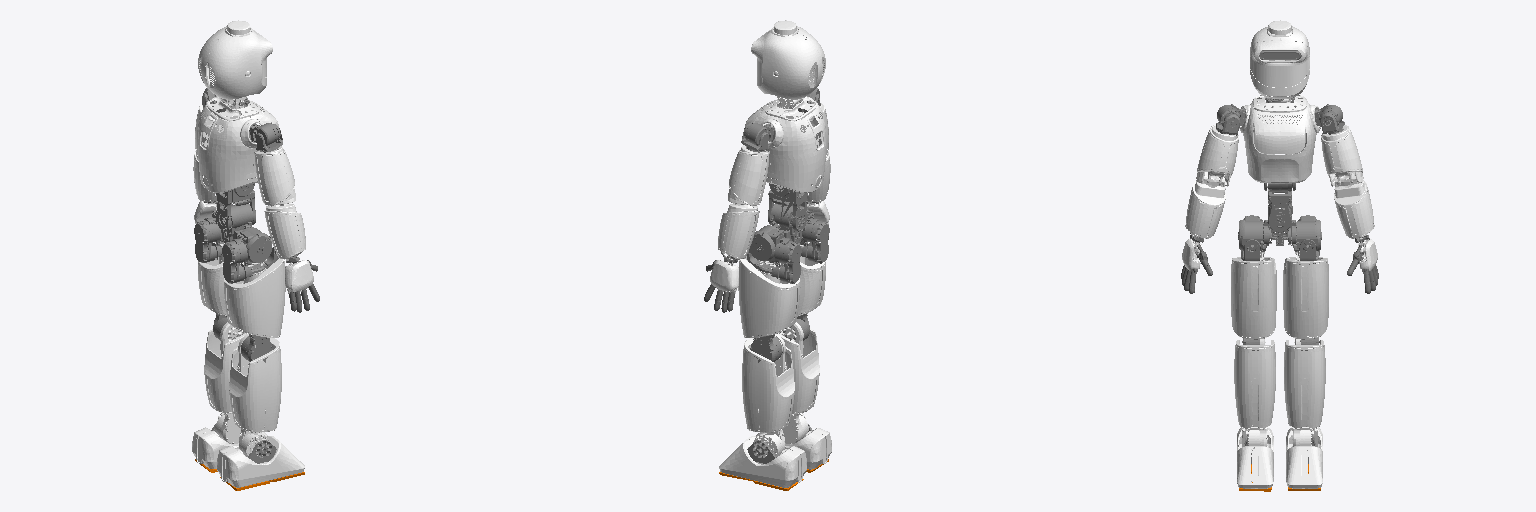
--- Facts derived from the render (not from the file) ---
Views: 3 orthographic renders of the robot side by side, from view 1: azimuth 30°, elevation 25°; view 2: azimuth 150°, elevation 25°; view 3: azimuth 270°, elevation 25°.
Robot: ergoCub — 204 links, 203 joints (57 revolute, 146 fixed); root link root_link; default pose: every joint at zero.
Visible links, largest first — view 1: chest, head, r_lower_leg, r_hip_3, l_lower_leg, r_ankle_2, r_upper_arm, r_forearm, l_hip_3, r_hip_2, l_ankle_2, l_hip_2 (+5 smaller); view 2: chest, head, l_lower_leg, l_hip_3, r_lower_leg, l_ankle_2, l_upper_arm, l_forearm, r_hip_3, l_hip_2, r_ankle_2, r_hip_2 (+5 smaller); view 3: chest, l_lower_leg, r_lower_leg, head, l_hip_3, r_hip_3, r_forearm, l_forearm, l_ankle_2, r_ankle_2, l_upper_arm, r_upper_arm (+4 smaller).
Link boxes in pixels (bbox=[...]): chest: bbox=[198, 96, 278, 192]; head: bbox=[198, 20, 272, 99]; r_lower_leg: bbox=[229, 334, 281, 455]; r_hip_3: bbox=[224, 247, 285, 337]; l_lower_leg: bbox=[204, 322, 245, 443]; r_ankle_2: bbox=[217, 436, 304, 487]; r_upper_arm: bbox=[254, 146, 295, 205]; r_forearm: bbox=[264, 203, 305, 258]; l_hip_3: bbox=[198, 242, 234, 315]; r_hip_2: bbox=[222, 236, 276, 283]; l_ankle_2: bbox=[192, 427, 267, 468]; l_hip_2: bbox=[194, 219, 223, 262]; chest: bbox=[745, 96, 825, 192]; head: bbox=[751, 20, 825, 99]; l_lower_leg: bbox=[742, 334, 794, 455]; l_hip_3: bbox=[738, 250, 800, 337]; r_lower_leg: bbox=[778, 322, 819, 444]; l_ankle_2: bbox=[719, 436, 806, 487]; l_upper_arm: bbox=[728, 145, 769, 205]; l_forearm: bbox=[718, 203, 759, 258]; r_hip_3: bbox=[789, 242, 825, 315]; l_hip_2: bbox=[747, 240, 801, 283]; r_ankle_2: bbox=[756, 428, 831, 469]; r_hip_2: bbox=[799, 218, 829, 263]; chest: bbox=[1239, 95, 1320, 183]; l_lower_leg: bbox=[1284, 339, 1325, 446]; r_lower_leg: bbox=[1234, 339, 1275, 446]; head: bbox=[1250, 20, 1309, 98]; l_hip_3: bbox=[1283, 251, 1328, 339]; r_hip_3: bbox=[1231, 251, 1276, 339]; r_forearm: bbox=[1185, 172, 1225, 238]; l_forearm: bbox=[1334, 172, 1374, 238]; l_ankle_2: bbox=[1286, 427, 1322, 488]; r_ankle_2: bbox=[1237, 427, 1273, 488]; l_upper_arm: bbox=[1321, 125, 1363, 186]; r_upper_arm: bbox=[1196, 125, 1238, 186].
Bounding box of the posed robot: 0.2875 × 0.594 × 1.47 m (x, y, z).
Meshes: 66 distinct files referenced, 66 mesh visuals loaded (66 OBJ).

The robot description file, URDF, robot "ergoCub":
<?xml version="1.0"?>
<robot name="ergoCub">
  <link name="root_link">
    <inertial>
      <mass value="2.823751482824641"/>
      <origin xyz="0.0024748962432214403 -1.050794470993344e-4 0.023450368787955644" rpy="0 -0 0"/>
      <inertia ixx="0.005630606285299466" ixy="1.4369039688385168e-6" ixz="2.329934099458601e-5" iyy="0.004380033669258687" iyz="1.4098441290533537e-5" izz="0.003616681010808376"/>
    </inertial>
    <visual>
      <origin xyz="0 0 0" rpy="0 -0 0"/>
      <geometry>
        <mesh filename="package://ergoCub/meshes/simmechanics/sim_ecub_1-1_root_link.obj" scale="0.001 0.001 0.001"/>
      </geometry>
      <material name="">
        <color rgba="0.6 0.6 0.6 1"/>
      </material>
    </visual>
    <collision>
      <origin xyz="0 0 0" rpy="0 -0 0"/>
      <geometry>
        <mesh filename="package://ergoCub/meshes/simmechanics/sim_ecub_1-1_root_link.obj" scale="0.001 0.001 0.001"/>
      </geometry>
      <material name="">
        <color rgba="0.6 0.6 0.6 1"/>
      </material>
    </collision>
  </link>
  <joint name="l_hip_pitch" type="revolute">
    <origin xyz="0.02109999999999964 0.050500000000000836 1.942890293094024e-16" rpy="3.958535957527503e-15 3.810968172190701e-15 1.167434911886406e-16"/>
    <axis xyz="-5.772831379991284e-17 -1 -1.3843833381666392e-17"/>
    <parent link="root_link"/>
    <child link="l_hip_1"/>
    <limit lower="-0.767944870877505" upper="1.9198621771937625" effort="1e+9" velocity="1e+9"/>
    <dynamics damping="2" friction="0"/>
  </joint>
  <link name="l_hip_1">
    <inertial>
      <mass value="2.231768868859629"/>
      <origin xyz="-0.0040154224851623455 0.028247280560774652 -6.811143992383195e-4" rpy="0 -0 0"/>
      <inertia ixx="0.002210921814931002" ixy="5.971255499379551e-5" ixz="-1.5432160879022988e-5" iyy="0.002695326128467937" iyz="-5.838535051658118e-6" izz="0.0024610381641843883"/>
    </inertial>
    <visual>
      <origin xyz="0 0 0" rpy="0 -0 0"/>
      <geometry>
        <mesh filename="package://ergoCub/meshes/simmechanics/sim_ecub_1-1_l_hip_1.obj" scale="0.001 0.001 0.001"/>
      </geometry>
      <material name="">
        <color rgba="0.6 0.6 0.6 1"/>
      </material>
    </visual>
    <collision>
      <origin xyz="0 0 0" rpy="0 -0 0"/>
      <geometry>
        <mesh filename="package://ergoCub/meshes/simmechanics/sim_ecub_1-1_l_hip_1.obj" scale="0.001 0.001 0.001"/>
      </geometry>
      <material name="">
        <color rgba="0.6 0.6 0.6 1"/>
      </material>
    </collision>
  </link>
  <joint name="r_hip_pitch" type="revolute">
    <origin xyz="0.021099999999999643 -0.05049999999999917 -2.220446049250313e-16" rpy="3.986223624290839e-15 9.012328668422501e-14 4.978996250550603e-17"/>
    <axis xyz="-1.0880513989386065e-16 -1 1.384383338166008e-17"/>
    <parent link="root_link"/>
    <child link="r_hip_1"/>
    <limit lower="-0.767944870877505" upper="1.9198621771937625" effort="1e+9" velocity="1e+9"/>
    <dynamics damping="2" friction="0"/>
  </joint>
  <link name="r_hip_1">
    <inertial>
      <mass value="2.2320852637398954"/>
      <origin xyz="-0.004032117730258793 -0.028249385885545365 -6.739019720393702e-4" rpy="0 -0 0"/>
      <inertia ixx="0.00221225947743564" ixy="-6.126720536020865e-5" ixz="-1.5035655169601288e-5" iyy="0.002695545891317729" iyz="6.443355522460266e-6" izz="0.0024608876750051726"/>
    </inertial>
    <visual>
      <origin xyz="0 0 0" rpy="0 -0 0"/>
      <geometry>
        <mesh filename="package://ergoCub/meshes/simmechanics/sim_ecub_1-1_r_hip_1.obj" scale="0.001 0.001 0.001"/>
      </geometry>
      <material name="">
        <color rgba="0.6 0.6 0.6 1"/>
      </material>
    </visual>
    <collision>
      <origin xyz="0 0 0" rpy="0 -0 0"/>
      <geometry>
        <mesh filename="package://ergoCub/meshes/simmechanics/sim_ecub_1-1_r_hip_1.obj" scale="0.001 0.001 0.001"/>
      </geometry>
      <material name="">
        <color rgba="0.6 0.6 0.6 1"/>
      </material>
    </collision>
  </link>
  <joint name="torso_roll" type="revolute">
    <origin xyz="-2.3755535638009333e-18 -9.860761315262648e-32 0.06050000000000008" rpy="6.938893903907228e-18 -2.243100740386731e-44 5.646742905902627e-30"/>
    <axis xyz="-1 -1.8747840782470697e-46 1.4239886692466155e-15"/>
    <parent link="root_link"/>
    <child link="torso_1"/>
    <limit lower="-0.4363323129985824" upper="0.4363323129985824" effort="1e+9" velocity="1e+9"/>
    <dynamics damping="2" friction="0"/>
  </joint>
  <link name="torso_1">
    <inertial>
      <mass value="2.0645667"/>
      <origin xyz="-0.00963997362197503 6.168494736287859e-4 0.08244231288506354" rpy="0 -0 0"/>
      <inertia ixx="0.007406085999999999" ixy="0" ixz="0" iyy="0.0059470732999999994" iyz="0" izz="0.0031780111"/>
    </inertial>
    <visual>
      <origin xyz="0 0 0" rpy="0 -0 0"/>
      <geometry>
        <mesh filename="package://ergoCub/meshes/simmechanics/sim_ecub_1-1_torso_1.obj" scale="0.001 0.001 0.001"/>
      </geometry>
      <material name="">
        <color rgba="0.6 0.6 0.6 1"/>
      </material>
    </visual>
    <collision>
      <origin xyz="0 0 0" rpy="0 -0 0"/>
      <geometry>
        <mesh filename="package://ergoCub/meshes/simmechanics/sim_ecub_1-1_torso_1.obj" scale="0.001 0.001 0.001"/>
      </geometry>
      <material name="">
        <color rgba="0.6 0.6 0.6 1"/>
      </material>
    </collision>
  </link>
  <joint name="torso_pitch" type="revolute">
    <origin xyz="-7.31996858122512e-17 -2.465190328815662e-32 0.11800000000000001" rpy="3.972379790909169e-15 -2.7755575615628914e-17 -5.766686906865033e-30"/>
    <axis xyz="1.9259299443837326e-34 1 0"/>
    <parent link="torso_1"/>
    <child link="torso_2"/>
    <limit lower="-0.3490658503988659" upper="1.1344640137963142" effort="1e+9" velocity="1e+9"/>
    <dynamics damping="2" friction="0"/>
  </joint>
  <link name="torso_2">
    <inertial>
      <mass value="0.7051627057068411"/>
      <origin xyz="0.0015724674776760373 0.0036223466761378907 0.026019504666210766" rpy="0 -0 0"/>
      <inertia ixx="0.0012590296877101025" ixy="4.1986239270733835e-6" ixz="-5.398163583772818e-6" iyy="6.675525890436374e-4" iyz="7.014302140884287e-5" izz="0.001145822810927014"/>
    </inertial>
    <visual>
      <origin xyz="0 0 0" rpy="0 -0 0"/>
      <geometry>
        <mesh filename="package://ergoCub/meshes/simmechanics/sim_ecub_1-1_torso_2.obj" scale="0.001 0.001 0.001"/>
      </geometry>
      <material name="">
        <color rgba="0.6 0.6 0.6 1"/>
      </material>
    </visual>
    <collision>
      <origin xyz="0 0 0" rpy="0 -0 0"/>
      <geometry>
        <mesh filename="package://ergoCub/meshes/simmechanics/sim_ecub_1-1_torso_2.obj" scale="0.001 0.001 0.001"/>
      </geometry>
      <material name="">
        <color rgba="0.6 0.6 0.6 1"/>
      </material>
    </collision>
  </link>
  <joint name="torso_yaw" type="revolute">
    <origin xyz="7.750929403809172e-17 2.585744285754345e-16 0.06447000000000001" rpy="-3.965440897005259e-15 9.857150196616922e-31 -5.2041704279298444e-17"/>
    <axis xyz="2.0848644290772277e-15 -2.1205546746284363e-15 -1"/>
    <parent link="torso_2"/>
    <child link="chest"/>
    <limit lower="-0.7853981633974483" upper="0.7853981633974483" effort="1e+9" velocity="1e+9"/>
    <dynamics damping="2" friction="0"/>
  </joint>
  <link name="chest">
    <inertial>
      <mass value="8.065471632648594"/>
      <origin xyz="-0.010721051678060345 -3.482064053382885e-4 0.07611063517438793" rpy="0 -0 0"/>
      <inertia ixx="0.048454754024617776" ixy="1.7611941682820642e-4" ixz="-3.124089280569708e-4" iyy="0.044938830524554475" iyz="-1.2962048932614557e-4" izz="0.030687687298016447"/>
    </inertial>
    <visual>
      <origin xyz="0 0 0" rpy="0 -0 0"/>
      <geometry>
        <mesh filename="package://ergoCub/meshes/simmechanics/sim_ecub_1-1_chest.obj" scale="0.001 0.001 0.001"/>
      </geometry>
      <material name="">
        <color rgba="1 1 1 1"/>
      </material>
    </visual>
    <collision>
      <origin xyz="0 0 0" rpy="0 -0 0"/>
      <geometry>
        <mesh filename="package://ergoCub/meshes/simmechanics/sim_ecub_1-1_chest.obj" scale="0.001 0.001 0.001"/>
      </geometry>
      <material name="">
        <color rgba="1 1 1 1"/>
      </material>
    </collision>
  </link>
  <joint name="neck_pitch" type="revolute">
    <origin xyz="0.004861512347971929 4.708746741468531e-16 0.22529999999999975" rpy="-2.6119678294737364e-15 -3.4056897699793993e-15 2.4309992584509393e-16"/>
    <axis xyz="-1.630254985826183e-15 -1 -1.850775361344979e-15"/>
    <parent link="chest"/>
    <child link="neck_2"/>
    <limit lower="-0.7853981633974483" upper="0.3839724354387525" effort="1e+9" velocity="1e+9"/>
    <dynamics damping="2" friction="0"/>
  </joint>
  <link name="neck_2">
    <inertial>
      <mass value="0.12100314943032965"/>
      <origin xyz="-0.006305773955890982 3.0141314376407138e-5 0.006373188453183354" rpy="0 -0 0"/>
      <inertia ixx="4.5383766592166864e-5" ixy="-9.375752008423039e-8" ixz="8.622664755132213e-6" iyy="3.848306673536227e-5" iyz="4.870043501244136e-8" izz="3.7535538604448367e-5"/>
    </inertial>
    <visual>
      <origin xyz="0 0 0" rpy="0 -0 0"/>
      <geometry>
        <mesh filename="package://ergoCub/meshes/simmechanics/sim_ecub_1-1_head_neck_2.obj" scale="0.001 0.001 0.001"/>
      </geometry>
      <material name="">
        <color rgba="0.6 0.6 0.6 1"/>
      </material>
    </visual>
    <collision>
      <origin xyz="0 0 0" rpy="0 -0 0"/>
      <geometry>
        <mesh filename="package://ergoCub/meshes/simmechanics/sim_ecub_1-1_head_neck_2.obj" scale="0.001 0.001 0.001"/>
      </geometry>
      <material name="">
        <color rgba="0.6 0.6 0.6 1"/>
      </material>
    </collision>
  </link>
  <joint name="l_shoulder_pitch" type="revolute">
    <origin xyz="-0.013518676842610168 0.06704761117227494 0.12351981080941762" rpy="0.25361232387325394 -0.052031605504494635 -0.27527873241387185"/>
    <axis xyz="1.43982048506075e-16 1.0000000000000002 3.608224830031759e-16"/>
    <parent link="chest"/>
    <child link="l_shoulder_1"/>
    <limit lower="-2.9670597283903604" upper="0.6108652381980153" effort="1e+9" velocity="1e+9"/>
    <dynamics damping="2" friction="0"/>
  </joint>
  <link name="l_shoulder_1">
    <inertial>
      <mass value="0.7913756606310043"/>
      <origin xyz="1.4824275422014796e-4 0.06782971819041986 5.036196460999898e-4" rpy="0 -0 0"/>
      <inertia ixx="0.01" ixy="0" ixz="0" iyy="0.01" iyz="0" izz="0.01"/>
    </inertial>
    <visual>
      <origin xyz="0 0 0" rpy="0 -0 0"/>
      <geometry>
        <mesh filename="package://ergoCub/meshes/simmechanics/sim_ecub_1-1_l_shoulder_1.obj" scale="0.001 0.001 0.001"/>
      </geometry>
      <material name="">
        <color rgba="0.6 0.6 0.6 1"/>
      </material>
    </visual>
    <collision>
      <origin xyz="0 0 0" rpy="0 -0 0"/>
      <geometry>
        <mesh filename="package://ergoCub/meshes/simmechanics/sim_ecub_1-1_l_shoulder_1.obj" scale="0.001 0.001 0.001"/>
      </geometry>
      <material name="">
        <color rgba="0.6 0.6 0.6 1"/>
      </material>
    </collision>
  </link>
  <joint name="r_shoulder_pitch" type="revolute">
    <origin xyz="-0.013518676842610305 -0.06704761117227447 0.1235198108094179" rpy="-0.25361232387326105 -0.052031605504494746 0.2752787324138701"/>
    <axis xyz="-3.3306690738754696e-16 1 3.4416913763379853e-15"/>
    <parent link="chest"/>
    <child link="r_shoulder_1"/>
    <limit lower="-2.9670597283903604" upper="0.6108652381980153" effort="1e+9" velocity="1e+9"/>
    <dynamics damping="2" friction="0"/>
  </joint>
  <link name="r_shoulder_1">
    <inertial>
      <mass value="0.7922822880502421"/>
      <origin xyz="1.7243569867328445e-4 -0.06784040318161474 4.7600094527533443e-4" rpy="0 -0 0"/>
      <inertia ixx="0.01" ixy="0" ixz="0" iyy="0.01" iyz="0" izz="0.01"/>
    </inertial>
    <visual>
      <origin xyz="0 0 0" rpy="0 -0 0"/>
      <geometry>
        <mesh filename="package://ergoCub/meshes/simmechanics/sim_ecub_1-1_r_shoulder_1.obj" scale="0.001 0.001 0.001"/>
      </geometry>
      <material name="">
        <color rgba="0.6 0.6 0.6 1"/>
      </material>
    </visual>
    <collision>
      <origin xyz="0 0 0" rpy="0 -0 0"/>
      <geometry>
        <mesh filename="package://ergoCub/meshes/simmechanics/sim_ecub_1-1_r_shoulder_1.obj" scale="0.001 0.001 0.001"/>
      </geometry>
      <material name="">
        <color rgba="0.6 0.6 0.6 1"/>
      </material>
    </collision>
  </link>
  <joint name="r_shoulder_roll" type="revolute">
    <origin xyz="0.007499999999999941 -0.09330000000000022 -2.498001805406602e-16" rpy="-9.353628982466936e-15 8.923417560424696e-15 -4.884981308350685e-15"/>
    <axis xyz="-1.0000000000000009 8.205242041369425e-16 1.734723475977312e-16"/>
    <parent link="r_shoulder_1"/>
    <child link="r_shoulder_2"/>
    <limit lower="-0.2617993877991494" upper="2.6179938779914944" effort="1e+9" velocity="1e+9"/>
    <dynamics damping="2" friction="0"/>
  </joint>
  <link name="r_shoulder_2">
    <inertial>
      <mass value="0.4392272062642899"/>
      <origin xyz="0.005113618901434032 -2.13348557806331e-4 -0.020425805469504787" rpy="0 -0 0"/>
      <inertia ixx="0.01" ixy="0" ixz="0" iyy="0.01" iyz="0" izz="0.01"/>
    </inertial>
    <visual>
      <origin xyz="0 0 0" rpy="0 -0 0"/>
      <geometry>
        <mesh filename="package://ergoCub/meshes/simmechanics/sim_ecub_1-1_r_shoulder_2.obj" scale="0.001 0.001 0.001"/>
      </geometry>
      <material name="">
        <color rgba="0.6 0.6 0.6 1"/>
      </material>
    </visual>
    <collision>
      <origin xyz="0 0 0" rpy="0 -0 0"/>
      <geometry>
        <mesh filename="package://ergoCub/meshes/simmechanics/sim_ecub_1-1_r_shoulder_2.obj" scale="0.001 0.001 0.001"/>
      </geometry>
      <material name="">
        <color rgba="0.6 0.6 0.6 1"/>
      </material>
    </collision>
  </link>
  <joint name="r_arm_ft_sensor" type="fixed">
    <origin xyz="-0.0068499999999999915 0 -0.054300000000000015" rpy="-1.1102230246251565e-16 -2.3592239273284576e-16 1.7208456881689918e-15"/>
    <parent link="r_shoulder_2"/>
    <child link="r_shoulder_3"/>
  </joint>
  <link name="r_shoulder_3">
    <inertial>
      <mass value="0.271466272759966"/>
      <origin xyz="-8.31167799586717e-5 -3.0654831449927755e-5 -0.007966545320293866" rpy="0 -0 0"/>
      <inertia ixx="0.01" ixy="0" ixz="0" iyy="0.01" iyz="0" izz="0.01"/>
    </inertial>
    <visual>
      <origin xyz="0 0 0" rpy="0 -0 0"/>
      <geometry>
        <mesh filename="package://ergoCub/meshes/simmechanics/sim_ecub_1-1_r_shoulder_3.obj" scale="0.001 0.001 0.001"/>
      </geometry>
      <material name="">
        <color rgba="0.6 0.6 0.6 1"/>
      </material>
    </visual>
    <collision>
      <origin xyz="0 0 0" rpy="0 -0 0"/>
      <geometry>
        <mesh filename="package://ergoCub/meshes/simmechanics/sim_ecub_1-1_r_shoulder_3.obj" scale="0.001 0.001 0.001"/>
      </geometry>
      <material name="">
        <color rgba="0.6 0.6 0.6 1"/>
      </material>
    </collision>
  </link>
  <joint name="r_shoulder_yaw" type="revolute">
    <origin xyz="-1.1449174941446927e-16 1.1102230246251565e-16 -0.022500000000000228" rpy="-2.7755575615628914e-17 4.0939474033052647e-16 7.382983113757288e-15"/>
    <axis xyz="-4.579669976578765e-16 5.551115123125817e-17 1"/>
    <parent link="r_shoulder_3"/>
    <child link="r_upper_arm"/>
    <limit lower="-0.9075712110370514" upper="1.4311699866353502" effort="1e+9" velocity="1e+9"/>
    <dynamics damping="2" friction="0"/>
  </joint>
  <link name="r_upper_arm">
    <inertial>
      <mass value="1.7722348545631907"/>
      <origin xyz="1.4699786491786937e-4 -0.0023354938418406186 -0.05011711267210951" rpy="0 -0 0"/>
      <inertia ixx="0.0034219198528275844" ixy="3.081029189714289e-5" ixz="2.5743017599563002e-5" iyy="0.003510878854314856" iyz="-1.0938393403810045e-4" izz="0.0015765483711818404"/>
    </inertial>
    <visual>
      <origin xyz="0 0 0" rpy="0 -0 0"/>
      <geometry>
        <mesh filename="package://ergoCub/meshes/simmechanics/sim_ecub_1-1_r_upperarm.obj" scale="0.001 0.001 0.001"/>
      </geometry>
      <material name="">
        <color rgba="1 1 1 1"/>
      </material>
    </visual>
    <collision>
      <origin xyz="0 0 0" rpy="0 -0 0"/>
      <geometry>
        <mesh filename="package://ergoCub/meshes/simmechanics/sim_ecub_1-1_r_upperarm.obj" scale="0.001 0.001 0.001"/>
      </geometry>
      <material name="">
        <color rgba="1 1 1 1"/>
      </material>
    </collision>
  </link>
  <joint name="r_elbow" type="revolute">
    <origin xyz="0.009999999999999966 0.001500000000000501 -0.1237000000000001" rpy="-1.94289029309402e-16 -5.488665077990618e-15 -8.271161533457391e-15"/>
    <axis xyz="2.4459601011270737e-16 -1.0000000000000027 1.2989609388114332e-14"/>
    <parent link="r_upper_arm"/>
    <child link="r_forearm"/>
    <limit lower="-0.08726646259971647" upper="2.0943951023931953" effort="1e+9" velocity="1e+9"/>
    <dynamics damping="2" friction="0"/>
  </joint>
  <link name="r_forearm">
    <inertial>
      <mass value="1.4760712424977045"/>
      <origin xyz="-0.01830687629472739 -0.002214887320910963 -0.08814943647449926" rpy="0 -0 0"/>
      <inertia ixx="0.009999999999999998" ixy="0" ixz="0" iyy="0.01" iyz="0" izz="0.01"/>
    </inertial>
    <visual>
      <origin xyz="0 0 0" rpy="0 -0 0"/>
      <geometry>
        <mesh filename="package://ergoCub/meshes/simmechanics/sim_ecub_1-0_r_forearm.obj" scale="0.001 0.001 0.001"/>
      </geometry>
      <material name="">
        <color rgba="1 1 1 1"/>
      </material>
    </visual>
    <collision>
      <origin xyz="0 0 0" rpy="0 -0 0"/>
      <geometry>
        <mesh filename="package://ergoCub/meshes/simmechanics/sim_ecub_1-0_r_forearm.obj" scale="0.001 0.001 0.001"/>
      </geometry>
      <material name="">
        <color rgba="1 1 1 1"/>
      </material>
    </collision>
  </link>
  <joint name="r_wrist_yaw" type="revolute">
    <origin xyz="-0.014999999999999698 -0.001999999999996477 -0.1943500000000013" rpy="-1.9706458687096485e-15 -1.1712852909795402e-14 -2.942091015256656e-15"/>
    <axis xyz="5.7037707890117685e-15 -1.2517764602648659e-14 1.0000000000000022"/>
    <parent link="r_forearm"/>
    <child link="r_wrist_1"/>
    <limit lower="-1.6057029118347832" upper="1.6057029118347832" effort="1e+9" velocity="1e+9"/>
    <dynamics damping="2" friction="0"/>
  </joint>
  <link name="r_wrist_1">
    <inertial>
      <mass value="0.05654246904305621"/>
      <origin xyz="4.0273630312637546e-4 -0.0010588455479770553 0.019140836855494725" rpy="0 -0 0"/>
      <inertia ixx="0.01" ixy="0" ixz="0" iyy="0.01" iyz="0" izz="0.01"/>
    </inertial>
    <visual>
      <origin xyz="0 0 0" rpy="0 -0 0"/>
      <geometry>
        <mesh filename="package://ergoCub/meshes/simmechanics/sim_ecub_1-0_r_wrist_1.obj" scale="0.001 0.001 0.001"/>
      </geometry>
      <material name="">
        <color rgba="0.6 0.6 0.6 1"/>
      </material>
    </visual>
    <collision>
      <origin xyz="0 0 0" rpy="0 -0 0"/>
      <geometry>
        <mesh filename="package://ergoCub/meshes/simmechanics/sim_ecub_1-0_r_wrist_1.obj" scale="0.001 0.001 0.001"/>
      </geometry>
      <material name="">
        <color rgba="0.6 0.6 0.6 1"/>
      </material>
    </collision>
  </link>
  <joint name="r_wrist_roll" type="revolute">
    <origin xyz="7.979727989493313e-17 1.1102230246251565e-16 1.6653345369377348e-16" rpy="2.4980018054066017e-16 -0 0"/>
    <axis xyz="1.0000000000000004 -1.8735013540549512e-16 7.632783294297946e-17"/>
    <parent link="r_wrist_1"/>
    <child link="r_wrist_2"/>
    <limit lower="-0.3490658503988659" upper="0.5235987755982988" effort="1e+9" velocity="1e+9"/>
    <dynamics damping="2" friction="0"/>
  </joint>
  <link name="r_wrist_2">
    <inertial>
      <mass value="0.00945549080108898"/>
      <origin xyz="-1.0459228840377365e-4 -0.002335664371021534 -0.00539408287879653" rpy="0 -0 0"/>
      <inertia ixx="0.01" ixy="0" ixz="0" iyy="0.01" iyz="0" izz="0.01"/>
    </inertial>
    <visual>
      <origin xyz="0 0 0" rpy="0 -0 0"/>
      <geometry>
        <mesh filename="package://ergoCub/meshes/simmechanics/sim_ecub_1-0_r_wrist_2.obj" scale="0.001 0.001 0.001"/>
      </geometry>
      <material name="">
        <color rgba="0.5 0.5 0.5 1"/>
      </material>
    </visual>
    <collision>
      <origin xyz="0 0 0" rpy="0 -0 0"/>
      <geometry>
        <mesh filename="package://ergoCub/meshes/simmechanics/sim_ecub_1-0_r_wrist_2.obj" scale="0.001 0.001 0.001"/>
      </geometry>
      <material name="">
        <color rgba="0.5 0.5 0.5 1"/>
      </material>
    </collision>
  </link>
  <joint name="r_wrist_pitch" type="revolute">
    <origin xyz="1.734723475976807e-17 1.3877787807814457e-16 5.551115123125783e-17" rpy="4.440892098500625e-16 1.5265566588595902e-16 -4.440892098500624e-16"/>
    <axis xyz="5.100087019371814e-16 -1 -5.273559366969494e-16"/>
    <parent link="r_wrist_2"/>
    <child link="r_hand_palm"/>
    <limit lower="-0.3490658503988659" upper="0.3490658503988659" effort="1e+9" velocity="1e+9"/>
    <dynamics damping="2" friction="0"/>
  </joint>
  <link name="r_hand_palm">
    <inertial>
      <mass value="0.18913536273910575"/>
      <origin xyz="-0.0038680152803707464 -0.002793078804786159 -0.059703296736688616" rpy="0 -0 0"/>
      <inertia ixx="0.01" ixy="0" ixz="0" iyy="0.01" iyz="0" izz="0.01"/>
    </inertial>
    <visual>
      <origin xyz="0 0 0" rpy="0 -0 0"/>
      <geometry>
        <mesh filename="package://ergoCub/meshes/simmechanics/sim_ecub_1-0_r_hand_palm.obj" scale="0.001 0.001 0.001"/>
      </geometry>
      <material name="">
        <color rgba="1 1 1 1"/>
      </material>
    </visual>
    <collision>
      <origin xyz="0 0 0" rpy="0 -0 0"/>
      <geometry>
        <mesh filename="package://ergoCub/meshes/simmechanics/sim_ecub_1-0_r_hand_palm.obj" scale="0.001 0.001 0.001"/>
      </geometry>
      <material name="">
        <color rgba="1 1 1 1"/>
      </material>
    </collision>
  </link>
  <joint name="r_index_add" type="revolute">
    <origin xyz="0.02246999999999979 0.001499999999999696 -0.0685899999999997" rpy="-1.7414265970691206e-16 0.2967059728390376 3.1415926535897687"/>
    <axis xyz="-2.2710721778544278e-14 1.0000000000000058 -3.325533406549057e-15"/>
    <parent link="r_hand_palm"/>
    <child link="r_hand_index_1"/>
    <limit lower="0" upper="0.2617993877991494" effort="1e+9" velocity="1e+9"/>
    <dynamics damping="2" friction="0"/>
  </joint>
  <link name="r_hand_index_1">
    <inertial>
      <mass value="0.018389140477749914"/>
      <origin xyz="-0.008757059826663652 0.004177791827611688 -0.01778271331378628" rpy="0 -0 0"/>
      <inertia ixx="0.01" ixy="0" ixz="0" iyy="0.01" iyz="0" izz="0.01"/>
    </inertial>
    <visual>
      <origin xyz="0 0 0" rpy="0 -0 0"/>
      <geometry>
        <mesh filename="package://ergoCub/meshes/simmechanics/sim_ecub_1-0_r_hand_index_1.obj" scale="0.001 0.001 0.001"/>
      </geometry>
      <material name="">
        <color rgba="0.5 0.5 0.5 1"/>
      </material>
    </visual>
    <collision>
      <origin xyz="0 0 0" rpy="0 -0 0"/>
      <geometry>
        <mesh filename="package://ergoCub/meshes/simmechanics/sim_ecub_1-0_r_hand_index_1.obj" scale="0.001 0.001 0.001"/>
      </geometry>
      <material name="">
        <color rgba="0.5 0.5 0.5 1"/>
      </material>
    </collision>
  </link>
  <joint name="r_middle_prox" type="revolute">
    <origin xyz="0.009599999999999907 0.0014999999999998626 -0.10299999999999981" rpy="-6.938893903907185e-16 -1.4224732503009818e-15 3.1415926535897696"/>
    <axis xyz="-1.0000000000000067 2.2546201017270685e-14 -2.45636844198318e-15"/>
    <parent link="r_hand_palm"/>
    <child link="r_hand_middle_1"/>
    <limit lower="0" upper="1.5707963267948966" effort="1e+9" velocity="1e+9"/>
    <dynamics damping="2" friction="0"/>
  </joint>
  <link name="r_hand_middle_1">
    <inertial>
      <mass value="0.0034570297619471503"/>
      <origin xyz="1.4270330263416173e-4 0.0036427918385497915 -0.014331342456115448" rpy="0 -0 0"/>
      <inertia ixx="0.01" ixy="0" ixz="0" iyy="0.01" iyz="0" izz="0.01"/>
    </inertial>
    <visual>
      <origin xyz="0 0 0" rpy="0 -0 0"/>
      <geometry>
        <mesh filename="package://ergoCub/meshes/simmechanics/sim_ecub_1-0_r_hand_middle_1.obj" scale="0.001 0.001 0.001"/>
      </geometry>
      <material name="">
        <color rgba="0.5 0.5 0.5 1"/>
      </material>
    </visual>
    <collision>
      <origin xyz="0 0 0" rpy="0 -0 0"/>
      <geometry>
        <mesh filename="package://ergoCub/meshes/simmechanics/sim_ecub_1-0_r_hand_middle_1.obj" scale="0.001 0.001 0.001"/>
      </geometry>
      <material name="">
        <color rgba="0.5 0.5 0.5 1"/>
      </material>
    </collision>
  </link>
  <joint name="r_pinkie_prox" type="revolute">
    <origin xyz="-0.035982359431392906 0.002388316832598436 -0.092085650800586" rpy="-3.9006236367563565e-16 -0.08726646259971843 3.1154127148098545"/>
    <axis xyz="-1.0000000000000073 2.687697787657948e-14 -2.761679773755077e-15"/>
    <parent link="r_hand_palm"/>
    <child link="r_hand_pinkie_1"/>
    <limit lower="0" upper="1.5707963267948966" effort="1e+9" velocity="1e+9"/>
    <dynamics damping="2" friction="0"/>
  </joint>
  <link name="r_hand_pinkie_1">
    <inertial>
      <mass value="0.0028362660726744793"/>
      <origin xyz="1.2063634498826747e-4 0.0037052493411751097 -0.011966012939334523" rpy="0 -0 0"/>
      <inertia ixx="0.01" ixy="0" ixz="0" iyy="0.01" iyz="0" izz="0.01"/>
    </inertial>
    <visual>
      <origin xyz="0 0 0" rpy="0 -0 0"/>
      <geometry>
        <mesh filename="package://ergoCub/meshes/simmechanics/sim_ecub_1-0_r_hand_pinkie_1.obj" scale="0.001 0.001 0.001"/>
      </geometry>
      <material name="">
        <color rgba="0.5 0.5 0.5 1"/>
      </material>
    </visual>
    <collision>
      <origin xyz="0 0 0" rpy="0 -0 0"/>
      <geometry>
        <mesh filename="package://ergoCub/meshes/simmechanics/sim_ecub_1-0_r_hand_pinkie_1.obj" scale="0.001 0.001 0.001"/>
      </geometry>
      <material name="">
        <color rgba="0.5 0.5 0.5 1"/>
      </material>
    </collision>
  </link>
  <joint name="r_ring_prox" type="revolute">
    <origin xyz="-0.015417943069964656 0.0018498186386415594 -0.09790070019065361" rpy="-5.293703507026483e-16 -0.08726646259971864 3.1154127148098545"/>
    <axis xyz="-1.0000000000000073 2.7031320490650422e-14 -2.5396351688300456e-15"/>
    <parent link="r_hand_palm"/>
    <child link="r_hand_ring_1"/>
    <limit lower="0" upper="1.5707963267948966" effort="1e+9" velocity="1e+9"/>
    <dynamics damping="2" friction="0"/>
  </joint>
  <link name="r_hand_ring_1">
    <inertial>
      <mass value="0.0034570297619471503"/>
      <origin xyz="1.427033026341843e-4 0.0036427918385495417 -0.014331342456115392" rpy="0 -0 0"/>
      <inertia ixx="0.01" ixy="0" ixz="0" iyy="0.01" iyz="0" izz="0.01"/>
    </inertial>
    <visual>
      <origin xyz="0 0 0" rpy="0 -0 0"/>
      <geometry>
        <mesh filename="package://ergoCub/meshes/simmechanics/sim_ecub_1-0_r_hand_ring_1.obj" scale="0.001 0.001 0.001"/>
      </geometry>
      <material name="">
        <color rgba="0.5 0.5 0.5 1"/>
      </material>
    </visual>
    <collision>
      <origin xyz="0 0 0" rpy="0 -0 0"/>
      <geometry>
        <mesh filename="package://ergoCub/meshes/simmechanics/sim_ecub_1-0_r_hand_ring_1.obj" scale="0.001 0.001 0.001"/>
      </geometry>
      <material name="">
        <color rgba="0.5 0.5 0.5 1"/>
      </material>
    </collision>
  </link>
  <joint name="r_thumb_add" type="revolute">
    <origin xyz="0.023374863256390793 0.002999999999999642 -0.034523838473554724" rpy="-0.08853732964507366 -0.20917985641349868 0.4039688884568295"/>
    <axis xyz="1.304512053934559e-15 4.801714581503802e-15 1.0000000000000062"/>
    <parent link="r_hand_palm"/>
    <child link="r_hand_thumb_1"/>
    <limit lower="0" upper="1.5707963267948966" effort="1e+9" velocity="1e+9"/>
    <dynamics damping="2" friction="0"/>
  </joint>
  <link name="r_hand_thumb_1">
    <inertial>
      <mass value="0.03462045845446337"/>
      <origin xyz="0.020757772956207593 -0.0027452920756125265 -0.008805481064280751" rpy="0 -0 0"/>
      <inertia ixx="0.01" ixy="0" ixz="0" iyy="0.01" iyz="0" izz="0.01"/>
    </inertial>
    <visual>
      <origin xyz="0 0 0" rpy="0 -0 0"/>
      <geometry>
        <mesh filename="package://ergoCub/meshes/simmechanics/sim_ecub_1-0_r_hand_thumb_1.obj" scale="0.001 0.001 0.001"/>
      </geometry>
      <material name="">
        <color rgba="0.5 0.5 0.5 1"/>
      </material>
    </visual>
    <collision>
      <origin xyz="0 0 0" rpy="0 -0 0"/>
      <geometry>
        <mesh filename="package://ergoCub/meshes/simmechanics/sim_ecub_1-0_r_hand_thumb_1.obj" scale="0.001 0.001 0.001"/>
      </geometry>
      <material name="">
        <color rgba="0.5 0.5 0.5 1"/>
      </material>
    </collision>
  </link>
  <joint name="r_thumb_prox" type="revolute">
    <origin xyz="0.03454170985946042 -0.0031451595002222055 -0.026071297445771524" rpy="1.792908313125052 0.6514098895879231 -2.0871746782746698e-14"/>
    <axis xyz="-3.549938121238938e-14 -1.840194663316197e-14 -1.0000000000000255"/>
    <parent link="r_hand_thumb_1"/>
    <child link="r_hand_thumb_2"/>
    <limit lower="0" upper="1.4329153158873444" effort="1e+9" velocity="1e+9"/>
    <dynamics damping="2" friction="0"/>
  </joint>
  <link name="r_hand_thumb_2">
    <inertial>
      <mass value="0.002460815503119397"/>
      <origin xyz="0.009792540778642764 0.004339177588763232 2.6314391783846536e-4" rpy="0 -0 0"/>
      <inertia ixx="0.01" ixy="0" ixz="0" iyy="0.01" iyz="0" izz="0.01"/>
    </inertial>
    <visual>
      <origin xyz="0 0 0" rpy="0 -0 0"/>
      <geometry>
        <mesh filename="package://ergoCub/meshes/simmechanics/sim_ecub_1-0_r_hand_thumb_2.obj" scale="0.001 0.001 0.001"/>
      </geometry>
      <material name="">
        <color rgba="0.5 0.5 0.5 1"/>
      </material>
    </visual>
    <collision>
      <origin xyz="0 0 0" rpy="0 -0 0"/>
      <geometry>
        <mesh filename="package://ergoCub/meshes/simmechanics/sim_ecub_1-0_r_hand_thumb_2.obj" scale="0.001 0.001 0.001"/>
      </geometry>
      <material name="">
        <color rgba="0.5 0.5 0.5 1"/>
      </material>
    </collision>
  </link>
  <joint name="r_thumb_dist" type="revolute">
    <origin xyz="0.01999999999999949 -0.0014999999999996405 1.6653345369377348e-15" rpy="1.970645868709554e-14 -3.4861002973229915e-14 -1.8374191057546798e-14"/>
    <axis xyz="-5.290212712338784e-14 -2.997602166487913e-14 -1.0000000000000502"/>
    <parent link="r_hand_thumb_2"/>
    <child link="r_hand_thumb_3"/>
    <limit lower="0" upper="0.9354964790689606" effort="1e+9" velocity="1e+9"/>
    <dynamics damping="2" friction="0"/>
  </joint>
  <link name="r_hand_thumb_3">
    <inertial>
      <mass value="0.008113360087098906"/>
      <origin xyz="0.006464314324573686 0.0018850204941183168 1.5337818251165425e-5" rpy="0 -0 0"/>
      <inertia ixx="0.01" ixy="0" ixz="0" iyy="0.01" iyz="0" izz="0.01"/>
    </inertial>
    <visual>
      <origin xyz="0 0 0" rpy="0 -0 0"/>
      <geometry>
        <mesh filename="package://ergoCub/meshes/simmechanics/sim_ecub_1-0_r_hand_thumb_3.obj" scale="0.001 0.001 0.001"/>
      </geometry>
      <material name="">
        <color rgba="0.5 0.5 0.5 1"/>
      </material>
    </visual>
    <collision>
      <origin xyz="0 0 0" rpy="0 -0 0"/>
      <geometry>
        <mesh filename="package://ergoCub/meshes/simmechanics/sim_ecub_1-0_r_hand_thumb_3.obj" scale="0.001 0.001 0.001"/>
      </geometry>
      <material name="">
        <color rgba="0.5 0.5 0.5 1"/>
      </material>
    </collision>
  </link>
  <joint name="r_ring_dist" type="revolute">
    <origin xyz="1.2576745200831851e-16 -0.00150000000000039 -0.029999999999999805" rpy="1.6653345369377133e-15 1.2351231148954867e-15 -2.381428387820927e-14"/>
    <axis xyz="-1.0000000000000142 4.792260338559737e-14 -2.890049310977331e-15"/>
    <parent link="r_hand_ring_1"/>
    <child link="r_hand_ring_2"/>
    <limit lower="0" upper="1.7313666179783749" effort="1e+9" velocity="1e+9"/>
    <dynamics damping="2" friction="0"/>
  </joint>
  <link name="r_hand_ring_2">
    <inertial>
      <mass value="0.009195501571064702"/>
      <origin xyz="5.130491864639101e-5 0.0016698985086339158 -0.0035941785379030038" rpy="0 -0 0"/>
      <inertia ixx="0.01" ixy="0" ixz="0" iyy="0.01" iyz="0" izz="0.01"/>
    </inertial>
    <visual>
      <origin xyz="0 0 0" rpy="0 -0 0"/>
      <geometry>
        <mesh filename="package://ergoCub/meshes/simmechanics/sim_ecub_1-0_r_hand_ring_2.obj" scale="0.001 0.001 0.001"/>
      </geometry>
      <material name="">
        <color rgba="0.5 0.5 0.5 1"/>
      </material>
    </visual>
    <collision>
      <origin xyz="0 0 0" rpy="0 -0 0"/>
      <geometry>
        <mesh filename="package://ergoCub/meshes/simmechanics/sim_ecub_1-0_r_hand_ring_2.obj" scale="0.001 0.001 0.001"/>
      </geometry>
      <material name="">
        <color rgba="0.5 0.5 0.5 1"/>
      </material>
    </collision>
  </link>
  <joint name="r_pinkie_dist" type="revolute">
    <origin xyz="1.734723475976807e-17 -0.0015000000000000013 -0.0250000000000003" rpy="1.970645868709628e-15 8.396061623727746e-16 -2.3508972546437355e-14"/>
    <axis xyz="-1.0000000000000142 4.6843605383539805e-14 1.91513471747844e-15"/>
    <parent link="r_hand_pinkie_1"/>
    <child link="r_hand_pinkie_2"/>
    <limit lower="0" upper="1.6283921921107094" effort="1e+9" velocity="1e+9"/>
    <dynamics damping="2" friction="0"/>
  </joint>
  <link name="r_hand_pinkie_2">
    <inertial>
      <mass value="0.008579228113796779"/>
      <origin xyz="1.7241710545339017e-5 0.001784794637876147 -0.0056120522397568595" rpy="0 -0 0"/>
      <inertia ixx="0.01" ixy="0" ixz="0" iyy="0.01" iyz="0" izz="0.01"/>
    </inertial>
    <visual>
      <origin xyz="0 0 0" rpy="0 -0 0"/>
      <geometry>
        <mesh filename="package://ergoCub/meshes/simmechanics/sim_ecub_1-0_r_hand_pinkie_2.obj" scale="0.001 0.001 0.001"/>
      </geometry>
      <material name="">
        <color rgba="0.5 0.5 0.5 1"/>
      </material>
    </visual>
    <collision>
      <origin xyz="0 0 0" rpy="0 -0 0"/>
      <geometry>
        <mesh filename="package://ergoCub/meshes/simmechanics/sim_ecub_1-0_r_hand_pinkie_2.obj" scale="0.001 0.001 0.001"/>
      </geometry>
      <material name="">
        <color rgba="0.5 0.5 0.5 1"/>
      </material>
    </collision>
  </link>
  <joint name="r_middle_dist" type="revolute">
    <origin xyz="5.551115123125783e-17 -0.0015000000000001956 -0.030000000000000138" rpy="-0.0018721213583985609 -2.831068712794149e-15 -2.1926904736346564e-14"/>
    <axis xyz="-1.0000000000000127 4.8869412818017636e-14 7.711215903793126e-16"/>
    <parent link="r_hand_middle_1"/>
    <child link="r_hand_middle_2"/>
    <limit lower="0" upper="1.5707963267948966" effort="1e+9" velocity="1e+9"/>
    <dynamics damping="2" friction="0"/>
  </joint>
  <link name="r_hand_middle_2">
    <inertial>
      <mass value="0.00912524254834366"/>
      <origin xyz="5.1534800591147845e-5 0.0016000026032074455 -0.0035910400466514507" rpy="0 -0 0"/>
      <inertia ixx="0.01" ixy="0" ixz="0" iyy="0.01" iyz="0" izz="0.01"/>
    </inertial>
    <visual>
      <origin xyz="0 0 0" rpy="0 -0 0"/>
      <geometry>
        <mesh filename="package://ergoCub/meshes/simmechanics/sim_ecub_1-0_r_hand_middle_2.obj" scale="0.001 0.001 0.001"/>
      </geometry>
      <material name="">
        <color rgba="0.5 0.5 0.5 1"/>
      </material>
    </visual>
    <collision>
      <origin xyz="0 0 0" rpy="0 -0 0"/>
      <geometry>
        <mesh filename="package://ergoCub/meshes/simmechanics/sim_ecub_1-0_r_hand_middle_2.obj" scale="0.001 0.001 0.001"/>
      </geometry>
      <material name="">
        <color rgba="0.5 0.5 0.5 1"/>
      </material>
    </collision>
  </link>
  <joint name="r_index_prox" type="revolute">
    <origin xyz="-0.009192533317427837 2.7755575615628914e-16 -0.030713451316238705" rpy="-2.4424906541753144e-15 -2.5673907444456745e-16 -2.375877272697805e-14"/>
    <axis xyz="-1.0000000000000127 4.871797409933279e-14 5.689893001203353e-16"/>
    <parent link="r_hand_index_1"/>
    <child link="r_hand_index_2"/>
    <limit lower="0" upper="1.5707963267948966" effort="1e+9" velocity="1e+9"/>
    <dynamics damping="2" friction="0"/>
  </joint>
  <link name="r_hand_index_2">
    <inertial>
      <mass value="0.0034570297619471503"/>
      <origin xyz="1.4270330263423808e-4 0.0036427918385498197 -0.014331342456115392" rpy="0 -0 0"/>
      <inertia ixx="0.01" ixy="0" ixz="0" iyy="0.01" iyz="0" izz="0.01"/>
    </inertial>
    <visual>
      <origin xyz="0 0 0" rpy="0 -0 0"/>
      <geometry>
        <mesh filename="package://ergoCub/meshes/simmechanics/sim_ecub_1-0_r_hand_index_2.obj" scale="0.001 0.001 0.001"/>
      </geometry>
      <material name="">
        <color rgba="0.5 0.5 0.5 1"/>
      </material>
    </visual>
    <collision>
      <origin xyz="0 0 0" rpy="0 -0 0"/>
      <geometry>
        <mesh filename="package://ergoCub/meshes/simmechanics/sim_ecub_1-0_r_hand_index_2.obj" scale="0.001 0.001 0.001"/>
      </geometry>
      <material name="">
        <color rgba="0.5 0.5 0.5 1"/>
      </material>
    </collision>
  </link>
  <joint name="r_index_dist" type="revolute">
    <origin xyz="9.71445146547012e-17 -0.001499999999999807 -0.03000000000000036" rpy="-2.4147350785596867e-15 6.661338147750939e-16 -2.3647750424515535e-14"/>
    <axis xyz="-1.0000000000000127 4.898859096158517e-14 -3.955169525227743e-16"/>
    <parent link="r_hand_index_2"/>
    <child link="r_hand_index_3"/>
    <limit lower="0" upper="1.7313666179783749" effort="1e+9" velocity="1e+9"/>
    <dynamics damping="2" friction="0"/>
  </joint>
  <link name="r_hand_index_3">
    <inertial>
      <mass value="0.00912524254834366"/>
      <origin xyz="4.4791686506034933e-5 0.0016000026032074732 -0.0035910400466514507" rpy="0 -0 0"/>
      <inertia ixx="0.01" ixy="0" ixz="0" iyy="0.01" iyz="0" izz="0.01"/>
    </inertial>
    <visual>
      <origin xyz="0 0 0" rpy="0 -0 0"/>
      <geometry>
        <mesh filename="package://ergoCub/meshes/simmechanics/sim_ecub_1-0_r_hand_index_3.obj" scale="0.001 0.001 0.001"/>
      </geometry>
      <material name="">
        <color rgba="0.5 0.5 0.5 1"/>
      </material>
    </visual>
    <collision>
      <origin xyz="0 0 0" rpy="0 -0 0"/>
      <geometry>
        <mesh filename="package://ergoCub/meshes/simmechanics/sim_ecub_1-0_r_hand_index_3.obj" scale="0.001 0.001 0.001"/>
      </geometry>
      <material name="">
        <color rgba="0.5 0.5 0.5 1"/>
      </material>
    </collision>
  </link>
  <joint name="l_shoulder_roll" type="revolute">
    <origin xyz="0.00500000000000006 0.09329999999999994 -1.942890293094024e-16" rpy="2.6756374893466266e-14 1.214306433183765e-15 -2.275957200481571e-15"/>
    <axis xyz="1 3.78169717762985e-16 2.7478019859473113e-15"/>
    <parent link="l_shoulder_1"/>
    <child link="l_shoulder_2"/>
    <limit lower="-0.2617993877991494" upper="2.6179938779914944" effort="1e+9" velocity="1e+9"/>
    <dynamics damping="2" friction="0"/>
  </joint>
  <link name="l_shoulder_2">
    <inertial>
      <mass value="0.44093319265387243"/>
      <origin xyz="0.007519395712385758 1.8727197477702573e-4 -0.020486062588588566" rpy="0 -0 0"/>
      <inertia ixx="0.01" ixy="0" ixz="0" iyy="0.01" iyz="0" izz="0.01"/>
    </inertial>
    <visual>
      <origin xyz="0 0 0" rpy="0 -0 0"/>
      <geometry>
        <mesh filename="package://ergoCub/meshes/simmechanics/sim_ecub_1-1_l_shoulder_2.obj" scale="0.001 0.001 0.001"/>
      </geometry>
      <material name="">
        <color rgba="0.6 0.6 0.6 1"/>
      </material>
    </visual>
    <collision>
      <origin xyz="0 0 0" rpy="0 -0 0"/>
      <geometry>
        <mesh filename="package://ergoCub/meshes/simmechanics/sim_ecub_1-1_l_shoulder_2.obj" scale="0.001 0.001 0.001"/>
      </geometry>
      <material name="">
        <color rgba="0.6 0.6 0.6 1"/>
      </material>
    </collision>
  </link>
  <joint name="l_arm_ft_sensor" type="fixed">
    <origin xyz="-0.004349999999999996 2.7755575615628914e-17 -0.054300000000000015" rpy="1.942890293094024e-16 2.7755575615628914e-17 1.498801083243962e-15"/>
    <parent link="l_shoulder_2"/>
    <child link="l_shoulder_3"/>
  </joint>
  <link name="l_shoulder_3">
    <inertial>
      <mass value="0.271466272759966"/>
      <origin xyz="8.311677995862313e-5 3.065483169523153e-5 -0.007966545320293866" rpy="0 -0 0"/>
      <inertia ixx="0.01" ixy="0" ixz="0" iyy="0.01" iyz="0" izz="0.01"/>
    </inertial>
    <visual>
      <origin xyz="0 0 0" rpy="0 -0 0"/>
      <geometry>
        <mesh filename="package://ergoCub/meshes/simmechanics/sim_ecub_1-1_l_shoulder_3.obj" scale="0.001 0.001 0.001"/>
      </geometry>
      <material name="">
        <color rgba="0.6 0.6 0.6 1"/>
      </material>
    </visual>
    <collision>
      <origin xyz="0 0 0" rpy="0 -0 0"/>
      <geometry>
        <mesh filename="package://ergoCub/meshes/simmechanics/sim_ecub_1-1_l_shoulder_3.obj" scale="0.001 0.001 0.001"/>
      </geometry>
      <material name="">
        <color rgba="0.6 0.6 0.6 1"/>
      </material>
    </collision>
  </link>
  <joint name="l_shoulder_yaw" type="revolute">
    <origin xyz="-5.204170427930421e-17 -2.7755575615628914e-17 -0.02250000000000013" rpy="-3.0253577421035583e-15 -2.998989945268704e-14 6.106226635438379e-15"/>
    <axis xyz="-3.00454106039183e-14 2.9143354396410367e-15 -0.9999999999999978"/>
    <parent link="l_shoulder_3"/>
    <child link="l_upper_arm"/>
    <limit lower="-0.9075712110370514" upper="1.4311699866353502" effort="1e+9" velocity="1e+9"/>
    <dynamics damping="2" friction="0"/>
  </joint>
  <link name="l_upper_arm">
    <inertial>
      <mass value="1.7708527474969076"/>
      <origin xyz="1.3049265136780286e-4 0.0022530185376357925 -0.050065038959805325" rpy="0 -0 0"/>
      <inertia ixx="0.003417154867942194" ixy="-2.952452997527239e-5" ixz="2.6752323704214618e-5" iyy="0.0035109035513553296" iyz="1.0388063737032838e-4" izz="0.0015716101936389657"/>
    </inertial>
    <visual>
      <origin xyz="0 0 0" rpy="0 -0 0"/>
      <geometry>
        <mesh filename="package://ergoCub/meshes/simmechanics/sim_ecub_1-1_l_upperarm.obj" scale="0.001 0.001 0.001"/>
      </geometry>
      <material name="">
        <color rgba="1 1 1 1"/>
      </material>
    </visual>
    <collision>
      <origin xyz="0 0 0" rpy="0 -0 0"/>
      <geometry>
        <mesh filename="package://ergoCub/meshes/simmechanics/sim_ecub_1-1_l_upperarm.obj" scale="0.001 0.001 0.001"/>
      </geometry>
      <material name="">
        <color rgba="1 1 1 1"/>
      </material>
    </collision>
  </link>
  <joint name="l_elbow" type="revolute">
    <origin xyz="0.00999999999999625 -0.001499999999999807 -0.12369999999999952" rpy="-3.330669073875483e-15 -3.0357660829594124e-14 -8.160139230994945e-15"/>
    <axis xyz="-8.847089727469744e-17 -0.9999999999999953 6.383782391594399e-15"/>
    <parent link="l_upper_arm"/>
    <child link="l_forearm"/>
    <limit lower="-0.08726646259971647" upper="2.0943951023931953" effort="1e+9" velocity="1e+9"/>
    <dynamics damping="2" friction="0"/>
  </joint>
  <link name="l_forearm">
    <inertial>
      <mass value="1.4604487031386884"/>
      <origin xyz="-0.018553263328673478 0.0023119252259846124 -0.08919372240797706" rpy="0 -0 0"/>
      <inertia ixx="0.009999999999999998" ixy="0" ixz="0" iyy="0.010000000000000002" iyz="0" izz="0.01"/>
    </inertial>
    <visual>
      <origin xyz="0 0 0" rpy="0 -0 0"/>
      <geometry>
        <mesh filename="package://ergoCub/meshes/simmechanics/sim_ecub_1-0_l_forearm.obj" scale="0.001 0.001 0.001"/>
      </geometry>
      <material name="">
        <color rgba="1 1 1 1"/>
      </material>
    </visual>
    <collision>
      <origin xyz="0 0 0" rpy="0 -0 0"/>
      <geometry>
        <mesh filename="package://ergoCub/meshes/simmechanics/sim_ecub_1-0_l_forearm.obj" scale="0.001 0.001 0.001"/>
      </geometry>
      <material name="">
        <color rgba="1 1 1 1"/>
      </material>
    </collision>
  </link>
  <joint name="l_wrist_yaw" type="revolute">
    <origin xyz="-0.0149999999999926 0.002000000000000779 -0.19435000000000124" rpy="-2.7755575615628963e-16 -7.633477183688342e-14 -1.665334536937739e-16"/>
    <axis xyz="-2.994132719535971e-14 2.9420910152566727e-15 -0.9999999999999982"/>
    <parent link="l_forearm"/>
    <child link="l_wrist_1"/>
    <limit lower="-1.6057029118347832" upper="1.6057029118347832" effort="1e+9" velocity="1e+9"/>
    <dynamics damping="2" friction="0"/>
  </joint>
  <link name="l_wrist_1">
    <inertial>
      <mass value="0.05654246904305621"/>
      <origin xyz="-4.027363031263928e-4 0.0010588455479771386 0.01914083685549478" rpy="0 -0 0"/>
      <inertia ixx="0.01" ixy="0" ixz="0" iyy="0.01" iyz="0" izz="0.01"/>
    </inertial>
    <visual>
      <origin xyz="0 0 0" rpy="0 -0 0"/>
      <geometry>
        <mesh filename="package://ergoCub/meshes/simmechanics/sim_ecub_1-0_l_wrist_1.obj" scale="0.001 0.001 0.001"/>
      </geometry>
      <material name="">
        <color rgba="0.6 0.6 0.6 1"/>
      </material>
    </visual>
    <collision>
      <origin xyz="0 0 0" rpy="0 -0 0"/>
      <geometry>
        <mesh filename="package://ergoCub/meshes/simmechanics/sim_ecub_1-0_l_wrist_1.obj" scale="0.001 0.001 0.001"/>
      </geometry>
      <material name="">
        <color rgba="0.6 0.6 0.6 1"/>
      </material>
    </collision>
  </link>
  <joint name="l_wrist_roll" type="revolute">
    <origin xyz="2.0816681711721685e-17 -8.326672684688674e-17 2.7755575615628914e-17" rpy="2.7755575615628914e-17 -2.1510571102112408e-16 5.551115123125784e-17"/>
    <axis xyz="-0.9999999999999999 4.805184028455756e-16 1.3877787807814474e-16"/>
    <parent link="l_wrist_1"/>
    <child link="l_wrist_2"/>
    <limit lower="-0.3490658503988659" upper="0.5235987755982988" effort="1e+9" velocity="1e+9"/>
    <dynamics damping="2" friction="0"/>
  </joint>
  <link name="l_wrist_2">
    <inertial>
      <mass value="0.00945549080108898"/>
      <origin xyz="1.0459228840379448e-4 0.002335664371021562 -0.00539408287879653" rpy="0 -0 0"/>
      <inertia ixx="0.01" ixy="0" ixz="0" iyy="0.01" iyz="0" izz="0.01"/>
    </inertial>
    <visual>
      <origin xyz="0 0 0" rpy="0 -0 0"/>
      <geometry>
        <mesh filename="package://ergoCub/meshes/simmechanics/sim_ecub_1-0_l_wrist_2.obj" scale="0.001 0.001 0.001"/>
      </geometry>
      <material name="">
        <color rgba="0.5 0.5 0.5 1"/>
      </material>
    </visual>
    <collision>
      <origin xyz="0 0 0" rpy="0 -0 0"/>
      <geometry>
        <mesh filename="package://ergoCub/meshes/simmechanics/sim_ecub_1-0_l_wrist_2.obj" scale="0.001 0.001 0.001"/>
      </geometry>
      <material name="">
        <color rgba="0.5 0.5 0.5 1"/>
      </material>
    </collision>
  </link>
  <joint name="l_wrist_pitch" type="revolute">
    <origin xyz="-2.0816681711721685e-17 -5.551115123125783e-17 1.1102230246251565e-16" rpy="4.440892098500627e-16 2.1510571102112408e-16 1.110223024625157e-16"/>
    <axis xyz="-7.632783294297949e-17 -0.9999999999999999 -4.163336342344336e-16"/>
    <parent link="l_wrist_2"/>
    <child link="l_hand_palm"/>
    <limit lower="-0.3490658503988659" upper="0.3490658503988659" effort="1e+9" velocity="1e+9"/>
    <dynamics damping="2" friction="0"/>
  </joint>
  <link name="l_hand_palm">
    <inertial>
      <mass value="0.19302450932779958"/>
      <origin xyz="-0.003464217984376114 0.0026603197751830787 -0.059158974986060986" rpy="0 -0 0"/>
      <inertia ixx="0.01" ixy="0" ixz="0" iyy="0.01" iyz="0" izz="0.01"/>
    </inertial>
    <visual>
      <origin xyz="0 0 0" rpy="0 -0 0"/>
      <geometry>
        <mesh filename="package://ergoCub/meshes/simmechanics/sim_ecub_1-0_l_hand_palm.obj" scale="0.001 0.001 0.001"/>
      </geometry>
      <material name="">
        <color rgba="1 1 1 1"/>
      </material>
    </visual>
    <collision>
      <origin xyz="0 0 0" rpy="0 -0 0"/>
      <geometry>
        <mesh filename="package://ergoCub/meshes/simmechanics/sim_ecub_1-0_l_hand_palm.obj" scale="0.001 0.001 0.001"/>
      </geometry>
      <material name="">
        <color rgba="1 1 1 1"/>
      </material>
    </collision>
  </link>
  <joint name="l_index_add" type="revolute">
    <origin xyz="0.02246999999952049 -0.0015499999975798762 -0.06858999999999962" rpy="-7.546181920632907e-16 -0.29670597283903566 1.0772314005831236e-10"/>
    <axis xyz="-3.232245792329867e-15 -0.9999999999999998 1.5397182495276352e-15"/>
    <parent link="l_hand_palm"/>
    <child link="l_hand_index_1"/>
    <limit lower="0" upper="0.2617993877991494" effort="1e+9" velocity="1e+9"/>
    <dynamics damping="2" friction="0"/>
  </joint>
  <link name="l_hand_index_1">
    <inertial>
      <mass value="0.01838914030860198"/>
      <origin xyz="0.008775205075343136 0.00426967029262032 -0.01775041318531878" rpy="0 -0 0"/>
      <inertia ixx="0.01" ixy="0" ixz="0" iyy="0.01" iyz="0" izz="0.01"/>
    </inertial>
    <visual>
      <origin xyz="0 0 0" rpy="0 -0 0"/>
      <geometry>
        <mesh filename="package://ergoCub/meshes/simmechanics/sim_ecub_1-0_l_hand_index_1.obj" scale="0.001 0.001 0.001"/>
      </geometry>
      <material name="">
        <color rgba="0.5 0.5 0.5 1"/>
      </material>
    </visual>
    <collision>
      <origin xyz="0 0 0" rpy="0 -0 0"/>
      <geometry>
        <mesh filename="package://ergoCub/meshes/simmechanics/sim_ecub_1-0_l_hand_index_1.obj" scale="0.001 0.001 0.001"/>
      </geometry>
      <material name="">
        <color rgba="0.5 0.5 0.5 1"/>
      </material>
    </collision>
  </link>
  <joint name="l_middle_prox" type="revolute">
    <origin xyz="0.009599999999515368 -0.0014999999989660506 -0.10299999999999979" rpy="1.1102230246251568e-16 -2.1510571102112408e-16 1.077221645218174e-10"/>
    <axis xyz="-0.9999999999999998 -1.0130785099575306e-15 -4.37150315993994e-16"/>
    <parent link="l_hand_palm"/>
    <child link="l_hand_middle_1"/>
    <limit lower="0" upper="1.5707963267948966" effort="1e+9" velocity="1e+9"/>
    <dynamics damping="2" friction="0"/>
  </joint>
  <link name="l_hand_middle_1">
    <inertial>
      <mass value="0.0034570297619471503"/>
      <origin xyz="1.427033026342936e-4 0.0036427918385498197 -0.014331342456115281" rpy="0 -0 0"/>
      <inertia ixx="0.01" ixy="0" ixz="0" iyy="0.01" iyz="0" izz="0.01"/>
    </inertial>
    <visual>
      <origin xyz="0 0 0" rpy="0 -0 0"/>
      <geometry>
        <mesh filename="package://ergoCub/meshes/simmechanics/sim_ecub_1-0_l_hand_middle_1.obj" scale="0.001 0.001 0.001"/>
      </geometry>
      <material name="">
        <color rgba="0.5 0.5 0.5 1"/>
      </material>
    </visual>
    <collision>
      <origin xyz="0 0 0" rpy="0 -0 0"/>
      <geometry>
        <mesh filename="package://ergoCub/meshes/simmechanics/sim_ecub_1-0_l_hand_middle_1.obj" scale="0.001 0.001 0.001"/>
      </geometry>
      <material name="">
        <color rgba="0.5 0.5 0.5 1"/>
      </material>
    </collision>
  </link>
  <joint name="l_pinkie_prox" type="revolute">
    <origin xyz="-0.035982359431781824 -0.002388316836473614 -0.09208565080058614" rpy="-9.44508152043152e-15 0.08726646259971617 0.026179938887637495"/>
    <axis xyz="-1.0000000000000002 -1.1843525269243981e-15 5.273559366969494e-16"/>
    <parent link="l_hand_palm"/>
    <child link="l_hand_pinkie_1"/>
    <limit lower="0" upper="1.5707963267948966" effort="1e+9" velocity="1e+9"/>
    <dynamics damping="2" friction="0"/>
  </joint>
  <link name="l_hand_pinkie_1">
    <inertial>
      <mass value="0.0028362660726744793"/>
      <origin xyz="1.2063634498835422e-4 0.0037052493411752763 -0.011966012939334523" rpy="0 -0 0"/>
      <inertia ixx="0.01" ixy="0" ixz="0" iyy="0.01" iyz="0" izz="0.01"/>
    </inertial>
    <visual>
      <origin xyz="0 0 0" rpy="0 -0 0"/>
      <geometry>
        <mesh filename="package://ergoCub/meshes/simmechanics/sim_ecub_1-0_l_hand_pinkie_1.obj" scale="0.001 0.001 0.001"/>
      </geometry>
      <material name="">
        <color rgba="0.5 0.5 0.5 1"/>
      </material>
    </visual>
    <collision>
      <origin xyz="0 0 0" rpy="0 -0 0"/>
      <geometry>
        <mesh filename="package://ergoCub/meshes/simmechanics/sim_ecub_1-0_l_hand_pinkie_1.obj" scale="0.001 0.001 0.001"/>
      </geometry>
      <material name="">
        <color rgba="0.5 0.5 0.5 1"/>
      </material>
    </collision>
  </link>
  <joint name="l_ring_prox" type="revolute">
    <origin xyz="-0.015417943070411642 -0.0018498186403021477 -0.0979007001906542" rpy="-6.798229766918262e-15 0.087266462599716 0.026179938887637717"/>
    <axis xyz="-1.0000000000000002 -1.0100531863796072e-15 6.800116025829084e-16"/>
    <parent link="l_hand_palm"/>
    <child link="l_hand_ring_1"/>
    <limit lower="0" upper="1.5707963267948966" effort="1e+9" velocity="1e+9"/>
    <dynamics damping="2" friction="0"/>
  </joint>
  <link name="l_hand_ring_1">
    <inertial>
      <mass value="0.0034570297619471503"/>
      <origin xyz="1.4270330263428668e-4 0.0036427918385497637 -0.014331342456115392" rpy="0 -0 0"/>
      <inertia ixx="0.01" ixy="0" ixz="0" iyy="0.01" iyz="0" izz="0.01"/>
    </inertial>
    <visual>
      <origin xyz="0 0 0" rpy="0 -0 0"/>
      <geometry>
        <mesh filename="package://ergoCub/meshes/simmechanics/sim_ecub_1-0_l_hand_ring_1.obj" scale="0.001 0.001 0.001"/>
      </geometry>
      <material name="">
        <color rgba="0.5 0.5 0.5 1"/>
      </material>
    </visual>
    <collision>
      <origin xyz="0 0 0" rpy="0 -0 0"/>
      <geometry>
        <mesh filename="package://ergoCub/meshes/simmechanics/sim_ecub_1-0_l_hand_ring_1.obj" scale="0.001 0.001 0.001"/>
      </geometry>
      <material name="">
        <color rgba="0.5 0.5 0.5 1"/>
      </material>
    </collision>
  </link>
  <joint name="l_thumb_add" type="revolute">
    <origin xyz="0.02337486325606749 -0.0029999999974821834 -0.03452383847355431" rpy="0.08853732964507509 -0.20917985641349868 -0.40396888834912725"/>
    <axis xyz="3.3306690738754696e-16 -6.245004513516506e-16 -0.9999999999999998"/>
    <parent link="l_hand_palm"/>
    <child link="l_hand_thumb_1"/>
    <limit lower="0" upper="1.5707963267948966" effort="1e+9" velocity="1e+9"/>
    <dynamics damping="2" friction="0"/>
  </joint>
  <link name="l_hand_thumb_1">
    <inertial>
      <mass value="0.03462045764846681"/>
      <origin xyz="0.020687932447892757 0.0032553486088066352 -0.008897083941363237" rpy="0 -0 0"/>
      <inertia ixx="0.01" ixy="0" ixz="0" iyy="0.01" iyz="0" izz="0.01"/>
    </inertial>
    <visual>
      <origin xyz="0 0 0" rpy="0 -0 0"/>
      <geometry>
        <mesh filename="package://ergoCub/meshes/simmechanics/sim_ecub_1-0_l_hand_thumb_1.obj" scale="0.001 0.001 0.001"/>
      </geometry>
      <material name="">
        <color rgba="0.5 0.5 0.5 1"/>
      </material>
    </visual>
    <collision>
      <origin xyz="0 0 0" rpy="0 -0 0"/>
      <geometry>
        <mesh filename="package://ergoCub/meshes/simmechanics/sim_ecub_1-0_l_hand_thumb_1.obj" scale="0.001 0.001 0.001"/>
      </geometry>
      <material name="">
        <color rgba="0.5 0.5 0.5 1"/>
      </material>
    </collision>
  </link>
  <joint name="l_thumb_prox" type="revolute">
    <origin xyz="0.034541709859460576 0.0031451595002215116 -0.026071297445771913" rpy="1.348684340464749 0.6514098895879155 -3.490258659322171e-16"/>
    <axis xyz="9.575673587391975e-16 -1.4988010832439613e-15 -1.0000000000000002"/>
    <parent link="l_hand_thumb_1"/>
    <child link="l_hand_thumb_2"/>
    <limit lower="0" upper="1.4329153158873444" effort="1e+9" velocity="1e+9"/>
    <dynamics damping="2" friction="0"/>
  </joint>
  <link name="l_hand_thumb_2">
    <inertial>
      <mass value="0.002460815503119397"/>
      <origin xyz="0.009792540778642764 0.004339177588763232 2.6314391783827107e-4" rpy="0 -0 0"/>
      <inertia ixx="0.01" ixy="0" ixz="0" iyy="0.01" iyz="0" izz="0.01"/>
    </inertial>
    <visual>
      <origin xyz="0 0 0" rpy="0 -0 0"/>
      <geometry>
        <mesh filename="package://ergoCub/meshes/simmechanics/sim_ecub_1-0_l_hand_thumb_2.obj" scale="0.001 0.001 0.001"/>
      </geometry>
      <material name="">
        <color rgba="0.5 0.5 0.5 1"/>
      </material>
    </visual>
    <collision>
      <origin xyz="0 0 0" rpy="0 -0 0"/>
      <geometry>
        <mesh filename="package://ergoCub/meshes/simmechanics/sim_ecub_1-0_l_hand_thumb_2.obj" scale="0.001 0.001 0.001"/>
      </geometry>
      <material name="">
        <color rgba="0.5 0.5 0.5 1"/>
      </material>
    </collision>
  </link>
  <joint name="l_thumb_dist" type="revolute">
    <origin xyz="0.020000000000000018 -0.0015000000000000013 -1.6653345369377348e-16" rpy="-7.771561172376096e-16 -1.6653345369377348e-16 -4.549900306516367e-8"/>
    <axis xyz="-1.4016565559607482e-15 4.996003048844505e-16 -1"/>
    <parent link="l_hand_thumb_2"/>
    <child link="l_hand_thumb_3"/>
    <limit lower="0" upper="0.9354964790689606" effort="1e+9" velocity="1e+9"/>
    <dynamics damping="2" friction="0"/>
  </joint>
  <link name="l_hand_thumb_3">
    <inertial>
      <mass value="0.008113360087098906"/>
      <origin xyz="0.006464314238807112 0.0018850207882386005 1.5337818252247892e-5" rpy="0 -0 0"/>
      <inertia ixx="0.01" ixy="0" ixz="0" iyy="0.01" iyz="0" izz="0.01"/>
    </inertial>
    <visual>
      <origin xyz="0 0 0" rpy="0 -0 0"/>
      <geometry>
        <mesh filename="package://ergoCub/meshes/simmechanics/sim_ecub_1-0_l_hand_thumb_3.obj" scale="0.001 0.001 0.001"/>
      </geometry>
      <material name="">
        <color rgba="0.5 0.5 0.5 1"/>
      </material>
    </visual>
    <collision>
      <origin xyz="0 0 0" rpy="0 -0 0"/>
      <geometry>
        <mesh filename="package://ergoCub/meshes/simmechanics/sim_ecub_1-0_l_hand_thumb_3.obj" scale="0.001 0.001 0.001"/>
      </geometry>
      <material name="">
        <color rgba="0.5 0.5 0.5 1"/>
      </material>
    </collision>
  </link>
  <joint name="l_ring_dist" type="revolute">
    <origin xyz="-2.6020852139652106e-18 -0.0014999999999999458 -0.030000000000000027" rpy="3.3306690738754696e-16 7.632783294297951e-17 -1.1102230246251563e-16"/>
    <axis xyz="-1.0000000000000002 -2.168404344970969e-17 1.2490009027033007e-15"/>
    <parent link="l_hand_ring_1"/>
    <child link="l_hand_ring_2"/>
    <limit lower="0" upper="1.7313666179783749" effort="1e+9" velocity="1e+9"/>
    <dynamics damping="2" friction="0"/>
  </joint>
  <link name="l_hand_ring_2">
    <inertial>
      <mass value="0.00912524254834366"/>
      <origin xyz="5.153480059114698e-5 0.0016000026032074732 -0.0035910400466515053" rpy="0 -0 0"/>
      <inertia ixx="0.01" ixy="0" ixz="0" iyy="0.01" iyz="0" izz="0.01"/>
    </inertial>
    <visual>
      <origin xyz="0 0 0" rpy="0 -0 0"/>
      <geometry>
        <mesh filename="package://ergoCub/meshes/simmechanics/sim_ecub_1-0_l_hand_ring_2.obj" scale="0.001 0.001 0.001"/>
      </geometry>
      <material name="">
        <color rgba="0.5 0.5 0.5 1"/>
      </material>
    </visual>
    <collision>
      <origin xyz="0 0 0" rpy="0 -0 0"/>
      <geometry>
        <mesh filename="package://ergoCub/meshes/simmechanics/sim_ecub_1-0_l_hand_ring_2.obj" scale="0.001 0.001 0.001"/>
      </geometry>
      <material name="">
        <color rgba="0.5 0.5 0.5 1"/>
      </material>
    </collision>
  </link>
  <joint name="l_pinkie_dist" type="revolute">
    <origin xyz="8.326672684688674e-17 -0.0015000000000000568 -0.025000000000000078" rpy="3.53975822615185e-5 1.1102230246251565e-16 -2.2204460492503126e-16"/>
    <axis xyz="-1.0000000000000002 -2.6194156222657784e-15 3.3662023329484224e-16"/>
    <parent link="l_hand_pinkie_1"/>
    <child link="l_hand_pinkie_2"/>
    <limit lower="0" upper="1.6283921921107094" effort="1e+9" velocity="1e+9"/>
    <dynamics damping="2" friction="0"/>
  </joint>
  <link name="l_hand_pinkie_2">
    <inertial>
      <mass value="0.008579228113796779"/>
      <origin xyz="1.706606479628947e-5 0.0017854459516601917 -0.005612024111640246" rpy="0 -0 0"/>
      <inertia ixx="0.01" ixy="0" ixz="0" iyy="0.01" iyz="0" izz="0.01"/>
    </inertial>
    <visual>
      <origin xyz="0 0 0" rpy="0 -0 0"/>
      <geometry>
        <mesh filename="package://ergoCub/meshes/simmechanics/sim_ecub_1-0_l_hand_pinkie_2.obj" scale="0.001 0.001 0.001"/>
      </geometry>
      <material name="">
        <color rgba="0.5 0.5 0.5 1"/>
      </material>
    </visual>
    <collision>
      <origin xyz="0 0 0" rpy="0 -0 0"/>
      <geometry>
        <mesh filename="package://ergoCub/meshes/simmechanics/sim_ecub_1-0_l_hand_pinkie_2.obj" scale="0.001 0.001 0.001"/>
      </geometry>
      <material name="">
        <color rgba="0.5 0.5 0.5 1"/>
      </material>
    </collision>
  </link>
  <joint name="l_middle_dist" type="revolute">
    <origin xyz="-2.0816681711721685e-17 -0.0014999999999999736 -0.030000000000000138" rpy="-0.0018721213583980574 3.469446951953614e-17 5.551115123125784e-17"/>
    <axis xyz="-0.9999999999999998 -2.3467059288222403e-15 6.408211626924537e-16"/>
    <parent link="l_hand_middle_1"/>
    <child link="l_hand_middle_2"/>
    <limit lower="0" upper="1.5707963267948966" effort="1e+9" velocity="1e+9"/>
    <dynamics damping="2" friction="0"/>
  </joint>
  <link name="l_hand_middle_2">
    <inertial>
      <mass value="0.00912524254834366"/>
      <origin xyz="5.1534800591151314e-5 0.0016000026032075565 -0.0035910400466513948" rpy="0 -0 0"/>
      <inertia ixx="0.01" ixy="0" ixz="0" iyy="0.01" iyz="0" izz="0.01"/>
    </inertial>
    <visual>
      <origin xyz="0 0 0" rpy="0 -0 0"/>
      <geometry>
        <mesh filename="package://ergoCub/meshes/simmechanics/sim_ecub_1-0_l_hand_middle_2.obj" scale="0.001 0.001 0.001"/>
      </geometry>
      <material name="">
        <color rgba="0.5 0.5 0.5 1"/>
      </material>
    </visual>
    <collision>
      <origin xyz="0 0 0" rpy="0 -0 0"/>
      <geometry>
        <mesh filename="package://ergoCub/meshes/simmechanics/sim_ecub_1-0_l_hand_middle_2.obj" scale="0.001 0.001 0.001"/>
      </geometry>
      <material name="">
        <color rgba="0.5 0.5 0.5 1"/>
      </material>
    </collision>
  </link>
  <joint name="l_index_prox" type="revolute">
    <origin xyz="0.009192533317427712 -2.7755575615628914e-17 -0.030713451316238316" rpy="6.383782391594655e-16 -1.942890293094024e-16 1.110223024625157e-16"/>
    <axis xyz="-0.9999999999999996 -2.0816681711721439e-16 3.99680288865056e-15"/>
    <parent link="l_hand_index_1"/>
    <child link="l_hand_index_2"/>
    <limit lower="0" upper="1.5707963267948966" effort="1e+9" velocity="1e+9"/>
    <dynamics damping="2" friction="0"/>
  </joint>
  <link name="l_hand_index_2">
    <inertial>
      <mass value="0.0034570297619471503"/>
      <origin xyz="1.427033026342589e-4 0.0036427918385496805 -0.014331342456115448" rpy="0 -0 0"/>
      <inertia ixx="0.01" ixy="0" ixz="0" iyy="0.01" iyz="0" izz="0.01"/>
    </inertial>
    <visual>
      <origin xyz="0 0 0" rpy="0 -0 0"/>
      <geometry>
        <mesh filename="package://ergoCub/meshes/simmechanics/sim_ecub_1-0_l_hand_index_2.obj" scale="0.001 0.001 0.001"/>
      </geometry>
      <material name="">
        <color rgba="0.5 0.5 0.5 1"/>
      </material>
    </visual>
    <collision>
      <origin xyz="0 0 0" rpy="0 -0 0"/>
      <geometry>
        <mesh filename="package://ergoCub/meshes/simmechanics/sim_ecub_1-0_l_hand_index_2.obj" scale="0.001 0.001 0.001"/>
      </geometry>
      <material name="">
        <color rgba="0.5 0.5 0.5 1"/>
      </material>
    </collision>
  </link>
  <joint name="l_index_dist" type="revolute">
    <origin xyz="4.163336342344337e-17 -0.0015000000000000013 -0.030000000000000082" rpy="-1.6320278461989814e-14 -1.1102230246251565e-16 1.110223024625157e-16"/>
    <axis xyz="-0.9999999999999997 1.2698175844150033e-15 1.3045120539345794e-15"/>
    <parent link="l_hand_index_2"/>
    <child link="l_hand_index_3"/>
    <limit lower="0" upper="1.7313666179783749" effort="1e+9" velocity="1e+9"/>
    <dynamics damping="2" friction="0"/>
  </joint>
  <link name="l_hand_index_3">
    <inertial>
      <mass value="0.00912524254834366"/>
      <origin xyz="5.8443050554399245e-5 0.001600002603207612 -0.0035910400466515053" rpy="0 -0 0"/>
      <inertia ixx="0.01" ixy="0" ixz="0" iyy="0.01" iyz="0" izz="0.01"/>
    </inertial>
    <visual>
      <origin xyz="0 0 0" rpy="0 -0 0"/>
      <geometry>
        <mesh filename="package://ergoCub/meshes/simmechanics/sim_ecub_1-0_l_hand_index_3.obj" scale="0.001 0.001 0.001"/>
      </geometry>
      <material name="">
        <color rgba="0.5 0.5 0.5 1"/>
      </material>
    </visual>
    <collision>
      <origin xyz="0 0 0" rpy="0 -0 0"/>
      <geometry>
        <mesh filename="package://ergoCub/meshes/simmechanics/sim_ecub_1-0_l_hand_index_3.obj" scale="0.001 0.001 0.001"/>
      </geometry>
      <material name="">
        <color rgba="0.5 0.5 0.5 1"/>
      </material>
    </collision>
  </link>
  <joint name="neck_roll" type="revolute">
    <origin xyz="-1.734723475976807e-18 -5.574854631760443e-18 0.009499999999999786" rpy="3.823019065160302e-16 2.6484215369704225e-31 -2.0572736222904706e-18"/>
    <axis xyz="1 -9.911787733901893e-17 -3.508853016099267e-15"/>
    <parent link="neck_2"/>
    <child link="neck_3"/>
    <limit lower="-0.3490658503988659" upper="0.3490658503988659" effort="1e+9" velocity="1e+9"/>
    <dynamics damping="2" friction="0"/>
  </joint>
  <link name="neck_3">
    <inertial>
      <mass value="0.17811376821431446"/>
      <origin xyz="7.590511663558711e-4 -4.0916906938460536e-5 0.036035516549226765" rpy="0 -0 0"/>
      <inertia ixx="9.70548692219775e-5" ixy="1.7629468835177367e-7" ixz="6.130672988864901e-6" iyy="1.0759851740143377e-4" iyz="-2.503969674072287e-7" izz="3.626415440724103e-5"/>
    </inertial>
    <visual>
      <origin xyz="0 0 0" rpy="0 -0 0"/>
      <geometry>
        <mesh filename="package://ergoCub/meshes/simmechanics/sim_ecub_1-1_head_neck_3.obj" scale="0.001 0.001 0.001"/>
      </geometry>
      <material name="">
        <color rgba="0.6 0.6 0.6 1"/>
      </material>
    </visual>
    <collision>
      <origin xyz="0 0 0" rpy="0 -0 0"/>
      <geometry>
        <mesh filename="package://ergoCub/meshes/simmechanics/sim_ecub_1-1_head_neck_3.obj" scale="0.001 0.001 0.001"/>
      </geometry>
      <material name="">
        <color rgba="0.6 0.6 0.6 1"/>
      </material>
    </collision>
  </link>
  <joint name="neck_yaw" type="revolute">
    <origin xyz="-1.3010426069826053e-17 3.765597982987134e-17 0.0691500000000001" rpy="1.9500353504997633e-16 -1.4141248935670295e-15 3.767470613092508e-16"/>
    <axis xyz="1.4082090529075477e-15 5.709519748275242e-16 0.9999999999999998"/>
    <parent link="neck_3"/>
    <child link="head"/>
    <limit lower="-0.7853981633974483" upper="0.7853981633974483" effort="1e+9" velocity="1e+9"/>
    <dynamics damping="2" friction="0"/>
  </joint>
  <link name="head">
    <inertial>
      <mass value="1.972127893184972"/>
      <origin xyz="-0.01620091412622722 -0.002268813231724542 0.03500744217497026" rpy="0 -0 0"/>
      <inertia ixx="0.007991907355842523" ixy="0" ixz="0" iyy="0.009883124315185845" iyz="0" izz="0.00786000669468763"/>
    </inertial>
    <visual>
      <origin xyz="0 0 0" rpy="0 -0 0"/>
      <geometry>
        <mesh filename="package://ergoCub/meshes/simmechanics/sim_ecub_1-1_head.obj" scale="0.001 0.001 0.001"/>
      </geometry>
      <material name="">
        <color rgba="1 1 1 1"/>
      </material>
    </visual>
    <collision>
      <origin xyz="0 0 0" rpy="0 -0 0"/>
      <geometry>
        <mesh filename="package://ergoCub/meshes/simmechanics/sim_ecub_1-1_head.obj" scale="0.001 0.001 0.001"/>
      </geometry>
      <material name="">
        <color rgba="1 1 1 1"/>
      </material>
    </collision>
  </link>
  <joint name="camera_tilt" type="revolute">
    <origin xyz="0.06251 -3.0000000001127547e-5 0.0763925000000007" rpy="9.055928654249867e-15 2.5958199361703294e-4 1.7122849027886369e-15"/>
    <axis xyz="1.9074075506529947e-16 -1 -1.4146048262463281e-15"/>
    <parent link="head"/>
    <child link="realsense"/>
    <limit lower="-0.5235987755982988" upper="0.5235987755982988" effort="1e+9" velocity="1e+9"/>
    <dynamics damping="2" friction="0"/>
  </joint>
  <link name="realsense">
    <inertial>
      <mass value="0.0973042045264468"/>
      <origin xyz="-0.01566548310600667 0.004519995218644514 0.002745610154123612" rpy="0 -0 0"/>
      <inertia ixx="0.01" ixy="0" ixz="0" iyy="0.01" iyz="0" izz="0.01"/>
    </inertial>
    <visual>
      <origin xyz="0 0 0" rpy="0 -0 0"/>
      <geometry>
        <mesh filename="package://ergoCub/meshes/simmechanics/sim_ecub_1-1_realsense.obj" scale="0.001 0.001 0.001"/>
      </geometry>
      <material name="">
        <color rgba="0.6 0.6 0.6 1"/>
      </material>
    </visual>
    <collision>
      <origin xyz="0 0 0" rpy="0 -0 0"/>
      <geometry>
        <mesh filename="package://ergoCub/meshes/simmechanics/sim_ecub_1-1_realsense.obj" scale="0.001 0.001 0.001"/>
      </geometry>
      <material name="">
        <color rgba="0.6 0.6 0.6 1"/>
      </material>
    </collision>
  </link>
  <joint name="r_hip_roll" type="revolute">
    <origin xyz="-0.047250000000000625 -0.033099999999999824 -0.009000000000000091" rpy="-2.73316156054826e-16 2.504641391024977e-16 -3.1036377681447894e-15"/>
    <axis xyz="-1 -3.3813287685016297e-16 -7.120227705451219e-17"/>
    <parent link="r_hip_1"/>
    <child link="r_hip_2"/>
    <limit lower="-0.3490658503988659" upper="1.9373154697137058" effort="1e+9" velocity="1e+9"/>
    <dynamics damping="2" friction="0"/>
  </joint>
  <link name="r_hip_2">
    <inertial>
      <mass value="1.8425374083524118"/>
      <origin xyz="-0.004338858395569037 -4.276785411407025e-5 -0.03711583728304848" rpy="0 -0 0"/>
      <inertia ixx="0.003120303249647105" ixy="2.3735315120274186e-6" ixz="0.0010124685247925123" iyy="0.005459166113270065" iyz="-1.8523984061140002e-6" izz="0.003419002844852166"/>
    </inertial>
    <visual>
      <origin xyz="0 0 0" rpy="0 -0 0"/>
      <geometry>
        <mesh filename="package://ergoCub/meshes/simmechanics/sim_ecub_1-1_r_hip_2.obj" scale="0.001 0.001 0.001"/>
      </geometry>
      <material name="">
        <color rgba="0.6 0.6 0.6 1"/>
      </material>
    </visual>
    <collision>
      <origin xyz="0 0 0" rpy="0 -0 0"/>
      <geometry>
        <mesh filename="package://ergoCub/meshes/simmechanics/sim_ecub_1-1_r_hip_2.obj" scale="0.001 0.001 0.001"/>
      </geometry>
      <material name="">
        <color rgba="0.6 0.6 0.6 1"/>
      </material>
    </collision>
  </link>
  <joint name="r_leg_ft_sensor" type="fixed">
    <origin xyz="0.036699999999999976 -5.551115123125783e-17 -0.08969999999999992" rpy="-1.3775953441385743e-15 5.490828022886651e-16 1.6105578736269433e-15"/>
    <parent link="r_hip_2"/>
    <child link="r_hip_3"/>
  </joint>
  <link name="r_hip_3">
    <inertial>
      <mass value="2.147900058066585"/>
      <origin xyz="0.0051510124501743006 0.012832092744145235 -0.05168842502826221" rpy="0 -0 0"/>
      <inertia ixx="0.007193177523135792" ixy="3.498727117566612e-5" ixz="2.4096738440560362e-5" iyy="0.008149001665389528" iyz="-1.2572783372468582e-4" izz="0.0057278283877820494"/>
    </inertial>
    <visual>
      <origin xyz="0 0 0" rpy="0 -0 0"/>
      <geometry>
        <mesh filename="package://ergoCub/meshes/simmechanics/sim_ecub_1-1_r_hip_3.obj" scale="0.001 0.001 0.001"/>
      </geometry>
      <material name="">
        <color rgba="1 1 1 1"/>
      </material>
    </visual>
    <collision>
      <origin xyz="0 0 0" rpy="0 -0 0"/>
      <geometry>
        <mesh filename="package://ergoCub/meshes/simmechanics/sim_ecub_1-1_r_hip_3.obj" scale="0.001 0.001 0.001"/>
      </geometry>
      <material name="">
        <color rgba="1 1 1 1"/>
      </material>
    </collision>
  </link>
  <joint name="r_hip_yaw" type="revolute">
    <origin xyz="-2.8449465006019636e-16 0.014999999999999764 -0.07269999999999871" rpy="-3.945141633795325e-15 7.430123072146325e-16 1.2193157749540274e-6"/>
    <axis xyz="-2.395305022015389e-20 1.474932849181089e-15 -1"/>
    <parent link="r_hip_3"/>
    <child link="r_upper_leg"/>
    <limit lower="-1.413716694115407" upper="1.413716694115407" effort="1e+9" velocity="1e+9"/>
    <dynamics damping="2" friction="0"/>
  </joint>
  <link name="r_upper_leg">
    <inertial>
      <mass value="2.784923431729287"/>
      <origin xyz="0.008517474024287675 -0.014468465702474021 -0.12674960557185616" rpy="0 -0 0"/>
      <inertia ixx="0.01186013252999811" ixy="5.455450241372543e-5" ixz="5.393573740676933e-4" iyy="0.01210913335208505" iyz="-4.0331041015476653e-4" izz="0.0022609706907693243"/>
    </inertial>
    <visual>
      <origin xyz="0 0 0" rpy="0 -0 0"/>
      <geometry>
        <mesh filename="package://ergoCub/meshes/simmechanics/sim_ecub_1-1_r_upper_leg.obj" scale="0.001 0.001 0.001"/>
      </geometry>
      <material name="">
        <color rgba="0.6 0.6 0.6 1"/>
      </material>
    </visual>
    <collision>
      <origin xyz="0 0 0" rpy="0 -0 0"/>
      <geometry>
        <mesh filename="package://ergoCub/meshes/simmechanics/sim_ecub_1-1_r_upper_leg.obj" scale="0.001 0.001 0.001"/>
      </geometry>
      <material name="">
        <color rgba="0.6 0.6 0.6 1"/>
      </material>
    </collision>
  </link>
  <joint name="r_knee" type="revolute">
    <origin xyz="0.01060000963260985 0.00789998707525931 -0.17970000000000058" rpy="6.892643261935339e-14 -6.650159361880639e-14 -1.2193157700904423e-6"/>
    <axis xyz="1.2193157766326317e-6 -0.9999999999992567 4.719551160658935e-15"/>
    <parent link="r_upper_leg"/>
    <child link="r_lower_leg"/>
    <limit lower="-1.8325957145940461" upper="0.12217304763960307" effort="1e+9" velocity="1e+9"/>
    <dynamics damping="2" friction="0"/>
  </joint>
  <link name="r_lower_leg">
    <inertial>
      <mass value="3.7621532589747924"/>
      <origin xyz="0.0012157689164458522 -0.006184734585333342 -0.21372759879868175" rpy="0 -0 0"/>
      <inertia ixx="0.04644215616821937" ixy="3.7269274872175814e-5" ixz="-8.519885904633137e-4" iyy="0.047738936736850285" iyz="-0.0018042981721195497" izz="0.004839671863500647"/>
    </inertial>
    <visual>
      <origin xyz="0 0 0" rpy="0 -0 0"/>
      <geometry>
        <mesh filename="package://ergoCub/meshes/simmechanics/sim_ecub_1-1_r_lower_leg.obj" scale="0.001 0.001 0.001"/>
      </geometry>
      <material name="">
        <color rgba="1 1 1 1"/>
      </material>
    </visual>
    <collision>
      <origin xyz="0 0 0" rpy="0 -0 0"/>
      <geometry>
        <mesh filename="package://ergoCub/meshes/simmechanics/sim_ecub_1-1_r_lower_leg.obj" scale="0.001 0.001 0.001"/>
      </geometry>
      <material name="">
        <color rgba="1 1 1 1"/>
      </material>
    </collision>
  </link>
  <joint name="r_ankle_pitch" type="revolute">
    <origin xyz="-5.936223734792634e-15 -0.03190000000000005 -0.3210000000000002" rpy="-2.9932805576414174e-15 -2.0242047360524565e-14 8.880636788937802e-17"/>
    <axis xyz="-3.505264366441263e-17 1 -1.331317022347139e-16"/>
    <parent link="r_lower_leg"/>
    <child link="r_ankle_1"/>
    <limit lower="-0.7853981633974483" upper="0.7853981633974483" effort="1e+9" velocity="1e+9"/>
    <dynamics damping="2" friction="0"/>
  </joint>
  <link name="r_ankle_1">
    <inertial>
      <mass value="0.3481278950635556"/>
      <origin xyz="-0.0013672309746954776 -6.60186959019704e-4 -0.014087432401547305" rpy="0 -0 0"/>
      <inertia ixx="0.01" ixy="0" ixz="0" iyy="0.01" iyz="0" izz="0.01"/>
    </inertial>
    <visual>
      <origin xyz="0 0 0" rpy="0 -0 0"/>
      <geometry>
        <mesh filename="package://ergoCub/meshes/simmechanics/sim_ecub_1-1_r_ankle_1.obj" scale="0.001 0.001 0.001"/>
      </geometry>
      <material name="">
        <color rgba="0.6 0.6 0.6 1"/>
      </material>
    </visual>
    <collision>
      <origin xyz="0 0 0" rpy="0 -0 0"/>
      <geometry>
        <mesh filename="package://ergoCub/meshes/simmechanics/sim_ecub_1-1_r_ankle_1.obj" scale="0.001 0.001 0.001"/>
      </geometry>
      <material name="">
        <color rgba="0.6 0.6 0.6 1"/>
      </material>
    </collision>
  </link>
  <joint name="r_ankle_roll" type="revolute">
    <origin xyz="-0.052750000000001546 0.018200000000000008 -0.0349999999999977" rpy="-1.0176053241861382e-24 3.8838282931741325e-14 -9.278622199115707e-23"/>
    <axis xyz="-1 -1.628246671334752e-16 2.560295622560413e-15"/>
    <parent link="r_ankle_1"/>
    <child link="r_ankle_2"/>
    <limit lower="-0.4363323129985824" upper="0.4363323129985824" effort="1e+9" velocity="1e+9"/>
    <dynamics damping="2" friction="0"/>
  </joint>
  <link name="r_ankle_2">
    <inertial>
      <mass value="1.5418216247038539"/>
      <origin xyz="0.04052646811695935 -8.642493098851012e-5 -0.023871143533700234" rpy="0 -0 0"/>
      <inertia ixx="0.01" ixy="0" ixz="0" iyy="0.009999999999999998" iyz="0" izz="0.01"/>
    </inertial>
    <visual>
      <origin xyz="0 0 0" rpy="0 -0 0"/>
      <geometry>
        <mesh filename="package://ergoCub/meshes/simmechanics/sim_ecub_1-1_r_ankle_2.obj" scale="0.001 0.001 0.001"/>
      </geometry>
      <material name="">
        <color rgba="1 1 1 1"/>
      </material>
    </visual>
    <collision>
      <origin xyz="0 0 0" rpy="0 -0 0"/>
      <geometry>
        <mesh filename="package://ergoCub/meshes/simmechanics/sim_ecub_1-1_r_ankle_2.obj" scale="0.001 0.001 0.001"/>
      </geometry>
      <material name="">
        <color rgba="1 1 1 1"/>
      </material>
    </collision>
  </link>
  <joint name="r_foot_front_ft_sensor" type="fixed">
    <origin xyz="0.13525000000000004 0 -0.04789999999999972" rpy="2.6613913647124785e-17 -9.20811369242055e-17 -1.4551888385804406e-15"/>
    <parent link="r_ankle_2"/>
    <child link="r_foot_front"/>
  </joint>
  <link name="r_foot_front">
    <inertial>
      <mass value="0.22110467939552797"/>
      <origin xyz="5.879202911245884e-4 -3.747924692820703e-9 -0.02000061661590058" rpy="0 -0 0"/>
      <inertia ixx="0.009999999999999998" ixy="0" ixz="0" iyy="0.01" iyz="0" izz="0.01"/>
    </inertial>
    <visual>
      <origin xyz="0 0 0" rpy="0 -0 0"/>
      <geometry>
        <mesh filename="package://ergoCub/meshes/simmechanics/sim_ecub_1-1_r_foot_front.obj" scale="0.001 0.001 0.001"/>
      </geometry>
      <material name="">
        <color rgba="1 0.51 0 1"/>
      </material>
    </visual>
    <collision>
      <origin xyz="0 0 -0.0193" rpy="0 -0 0"/>
      <geometry>
        <box size="0.117 0.1 0.006"/>
      </geometry>
    </collision>
  </link>
  <joint name="r_foot_rear_ft_sensor" type="fixed">
    <origin xyz="0.016 0 -0.04789999999999961" rpy="2.6613913647112164e-17 -9.208113692420588e-17 -1.566211141042955e-15"/>
    <parent link="r_ankle_2"/>
    <child link="r_foot_rear"/>
  </joint>
  <link name="r_foot_rear">
    <inertial>
      <mass value="0.22110467939552797"/>
      <origin xyz="5.879202911244878e-4 -3.747924665065128e-9 -0.020000616615901023" rpy="0 -0 0"/>
      <inertia ixx="0.01" ixy="0" ixz="0" iyy="0.01" iyz="0" izz="0.01"/>
    </inertial>
    <visual>
      <origin xyz="0 0 0" rpy="0 -0 0"/>
      <geometry>
        <mesh filename="package://ergoCub/meshes/simmechanics/sim_ecub_1-1_r_foot_rear.obj" scale="0.001 0.001 0.001"/>
      </geometry>
      <material name="">
        <color rgba="1 0.51 0 1"/>
      </material>
    </visual>
    <collision>
      <origin xyz="0 0 -0.0193" rpy="0 -0 0"/>
      <geometry>
        <box size="0.117 0.1 0.006"/>
      </geometry>
    </collision>
  </link>
  <joint name="l_hip_roll" type="revolute">
    <origin xyz="-0.04725000000000078 0.033100000000000004 -0.009000000000000119" rpy="7.584245024416732e-16 1.5745686587446743e-30 1.1102230246251548e-16"/>
    <axis xyz="1 -6.123233995736708e-17 6.3201403498236e-16"/>
    <parent link="l_hip_1"/>
    <child link="l_hip_2"/>
    <limit lower="-0.3490658503988659" upper="1.9373154697137058" effort="1e+9" velocity="1e+9"/>
    <dynamics damping="2" friction="0"/>
  </joint>
  <link name="l_hip_2">
    <inertial>
      <mass value="1.8338392164825101"/>
      <origin xyz="-0.004125697068299468 3.917475804632309e-5 -0.03750964603556273" rpy="0 -0 0"/>
      <inertia ixx="0.003159514595905926" ixy="-1.6542815235215681e-6" ixz="9.977368607484037e-4" iyy="0.005488243677251951" iyz="-2.1904093887368695e-6" izz="0.0033984945726571185"/>
    </inertial>
    <visual>
      <origin xyz="0 0 0" rpy="0 -0 0"/>
      <geometry>
        <mesh filename="package://ergoCub/meshes/simmechanics/sim_ecub_1-1_l_hip_2.obj" scale="0.001 0.001 0.001"/>
      </geometry>
      <material name="">
        <color rgba="0.6 0.6 0.6 1"/>
      </material>
    </visual>
    <collision>
      <origin xyz="0 0 0" rpy="0 -0 0"/>
      <geometry>
        <mesh filename="package://ergoCub/meshes/simmechanics/sim_ecub_1-1_l_hip_2.obj" scale="0.001 0.001 0.001"/>
      </geometry>
      <material name="">
        <color rgba="0.6 0.6 0.6 1"/>
      </material>
    </collision>
  </link>
  <joint name="l_leg_ft_sensor" type="fixed">
    <origin xyz="0.036699999999999844 -1.3877787807814457e-17 -0.08970000000000003" rpy="-1.1075796462727634e-15 -1.9903300580169828e-30 2.775557561562846e-16"/>
    <parent link="l_hip_2"/>
    <child link="l_hip_3"/>
  </joint>
  <link name="l_hip_3">
    <inertial>
      <mass value="2.147524084050246"/>
      <origin xyz="0.005176125839593024 -0.01282881302682233 -0.05174852447453404" rpy="0 -0 0"/>
      <inertia ixx="0.007242161971060034" ixy="-3.321392954197042e-5" ixz="2.505985505401264e-5" iyy="0.008197962692605146" iyz="1.2474874840596051e-4" izz="0.005727458772759987"/>
    </inertial>
    <visual>
      <origin xyz="0 0 0" rpy="0 -0 0"/>
      <geometry>
        <mesh filename="package://ergoCub/meshes/simmechanics/sim_ecub_1-1_l_hip_3.obj" scale="0.001 0.001 0.001"/>
      </geometry>
      <material name="">
        <color rgba="1 1 1 1"/>
      </material>
    </visual>
    <collision>
      <origin xyz="0 0 0" rpy="0 -0 0"/>
      <geometry>
        <mesh filename="package://ergoCub/meshes/simmechanics/sim_ecub_1-1_l_hip_3.obj" scale="0.001 0.001 0.001"/>
      </geometry>
      <material name="">
        <color rgba="1 1 1 1"/>
      </material>
    </collision>
  </link>
  <joint name="l_hip_yaw" type="revolute">
    <origin xyz="-8.396061623727746e-16 -0.014999999999999944 -0.07269999999999993" rpy="3.0118838875648327e-16 1.1431429037212378e-14 -2.775557561562751e-16"/>
    <axis xyz="-8.622588011769357e-16 1.5936665473077025e-16 1"/>
    <parent link="l_hip_3"/>
    <child link="l_upper_leg"/>
    <limit lower="-1.413716694115407" upper="1.413716694115407" effort="1e+9" velocity="1e+9"/>
    <dynamics damping="2" friction="0"/>
  </joint>
  <link name="l_upper_leg">
    <inertial>
      <mass value="2.784923431765453"/>
      <origin xyz="0.008503494694160183 0.014484874736048647 -0.12674659802303312" rpy="0 -0 0"/>
      <inertia ixx="0.011852293952284196" ixy="-4.907145319317264e-5" ixz="5.393933817879138e-4" iyy="0.012109807149567942" iyz="3.9208918647670385e-4" izz="0.002253627916731084"/>
    </inertial>
    <visual>
      <origin xyz="0 0 0" rpy="0 -0 0"/>
      <geometry>
        <mesh filename="package://ergoCub/meshes/simmechanics/sim_ecub_1-1_l_upper_leg.obj" scale="0.001 0.001 0.001"/>
      </geometry>
      <material name="">
        <color rgba="0.6 0.6 0.6 1"/>
      </material>
    </visual>
    <collision>
      <origin xyz="0 0 0" rpy="0 -0 0"/>
      <geometry>
        <mesh filename="package://ergoCub/meshes/simmechanics/sim_ecub_1-1_l_upper_leg.obj" scale="0.001 0.001 0.001"/>
      </geometry>
      <material name="">
        <color rgba="0.6 0.6 0.6 1"/>
      </material>
    </collision>
  </link>
  <joint name="l_knee" type="revolute">
    <origin xyz="0.010600000000000822 -0.007900000000000185 -0.17969999999999958" rpy="1.970486418692682e-16 -1.1419428146632273e-14 2.8602839935211434e-15"/>
    <axis xyz="-2.608937546411318e-16 -1 5.166588955193111e-17"/>
    <parent link="l_upper_leg"/>
    <child link="l_lower_leg"/>
    <limit lower="-1.8325957145940461" upper="0.12217304763960307" effort="1e+9" velocity="1e+9"/>
    <dynamics damping="2" friction="0"/>
  </joint>
  <link name="l_lower_leg">
    <inertial>
      <mass value="3.767581145212888"/>
      <origin xyz="0.0014201768088090358 0.006186333743956739 -0.21383298861124922" rpy="0 -0 0"/>
      <inertia ixx="0.04647110900067475" ixy="-2.1189289797886653e-5" ixz="-8.110710215722959e-4" iyy="0.04776726641499918" iyz="0.0018123762001582078" izz="0.004840491251955261"/>
    </inertial>
    <visual>
      <origin xyz="0 0 0" rpy="0 -0 0"/>
      <geometry>
        <mesh filename="package://ergoCub/meshes/simmechanics/sim_ecub_1-1_l_lower_leg.obj" scale="0.001 0.001 0.001"/>
      </geometry>
      <material name="">
        <color rgba="1 1 1 1"/>
      </material>
    </visual>
    <collision>
      <origin xyz="0 0 0" rpy="0 -0 0"/>
      <geometry>
        <mesh filename="package://ergoCub/meshes/simmechanics/sim_ecub_1-1_l_lower_leg.obj" scale="0.001 0.001 0.001"/>
      </geometry>
      <material name="">
        <color rgba="1 1 1 1"/>
      </material>
    </collision>
  </link>
  <joint name="l_ankle_pitch" type="revolute">
    <origin xyz="-4.468647674116255e-15 0.03189999999999981 -0.3209999999999995" rpy="-1.9704864186927032e-16 -8.673617379880112e-19 -1.8683953730959558e-16"/>
    <axis xyz="-2.389602037081462e-16 1 1.4538275231733847e-16"/>
    <parent link="l_lower_leg"/>
    <child link="l_ankle_1"/>
    <limit lower="-0.7853981633974483" upper="0.7853981633974483" effort="1e+9" velocity="1e+9"/>
    <dynamics damping="2" friction="0"/>
  </joint>
  <link name="l_ankle_1">
    <inertial>
      <mass value="0.3481278951519182"/>
      <origin xyz="-0.0013852125067176195 6.601869600093568e-4 -0.014087432474324535" rpy="0 -0 0"/>
      <inertia ixx="0.01" ixy="0" ixz="0" iyy="0.01" iyz="0" izz="0.01"/>
    </inertial>
    <visual>
      <origin xyz="0 0 0" rpy="0 -0 0"/>
      <geometry>
        <mesh filename="package://ergoCub/meshes/simmechanics/sim_ecub_1-1_l_ankle_1.obj" scale="0.001 0.001 0.001"/>
      </geometry>
      <material name="">
        <color rgba="0.6 0.6 0.6 1"/>
      </material>
    </visual>
    <collision>
      <origin xyz="0 0 0" rpy="0 -0 0"/>
      <geometry>
        <mesh filename="package://ergoCub/meshes/simmechanics/sim_ecub_1-1_l_ankle_1.obj" scale="0.001 0.001 0.001"/>
      </geometry>
      <material name="">
        <color rgba="0.6 0.6 0.6 1"/>
      </material>
    </collision>
  </link>
  <joint name="l_ankle_roll" type="revolute">
    <origin xyz="-0.052750000000000324 -0.01819999999999991 -0.03499999999999959" rpy="3.340196646750626e-19 1.1217589357404033e-14 -2.3665827156630354e-30"/>
    <axis xyz="1 -4.05028482201375e-16 -1.2496691978128869e-15"/>
    <parent link="l_ankle_1"/>
    <child link="l_ankle_2"/>
    <limit lower="-0.4363323129985824" upper="0.4363323129985824" effort="1e+9" velocity="1e+9"/>
    <dynamics damping="2" friction="0"/>
  </joint>
  <link name="l_ankle_2">
    <inertial>
      <mass value="1.5418216247038539"/>
      <origin xyz="0.0405224005088543 -9.790751646740482e-5 -0.02387114353368558" rpy="0 -0 0"/>
      <inertia ixx="0.01" ixy="0" ixz="0" iyy="0.010000000000000002" iyz="0" izz="0.01"/>
    </inertial>
    <visual>
      <origin xyz="0 0 0" rpy="0 -0 0"/>
      <geometry>
        <mesh filename="package://ergoCub/meshes/simmechanics/sim_ecub_1-1_l_ankle_2.obj" scale="0.001 0.001 0.001"/>
      </geometry>
      <material name="">
        <color rgba="1 1 1 1"/>
      </material>
    </visual>
    <collision>
      <origin xyz="0 0 0" rpy="0 -0 0"/>
      <geometry>
        <mesh filename="package://ergoCub/meshes/simmechanics/sim_ecub_1-1_l_ankle_2.obj" scale="0.001 0.001 0.001"/>
      </geometry>
      <material name="">
        <color rgba="1 1 1 1"/>
      </material>
    </collision>
  </link>
  <joint name="l_foot_front_ft_sensor" type="fixed">
    <origin xyz="0.13524999999999998 -5.551115123125783e-17 -0.04789999999999894" rpy="-8.997944700177166e-31 1.9428902930939596e-16 -9.788946385468152e-16"/>
    <parent link="l_ankle_2"/>
    <child link="l_foot_front"/>
  </joint>
  <link name="l_foot_front">
    <inertial>
      <mass value="0.22110467939552797"/>
      <origin xyz="5.879202911245329e-4 -3.747924692820703e-9 -0.02000061661590158" rpy="0 -0 0"/>
      <inertia ixx="0.01" ixy="0" ixz="0" iyy="0.01" iyz="0" izz="0.01"/>
    </inertial>
    <visual>
      <origin xyz="0 0 0" rpy="0 -0 0"/>
      <geometry>
        <mesh filename="package://ergoCub/meshes/simmechanics/sim_ecub_1-1_l_foot_front.obj" scale="0.001 0.001 0.001"/>
      </geometry>
      <material name="">
        <color rgba="1 0.51 0 1"/>
      </material>
    </visual>
    <collision>
      <origin xyz="0 0 -0.0193" rpy="0 -0 0"/>
      <geometry>
        <box size="0.117 0.1 0.006"/>
      </geometry>
    </collision>
  </link>
  <joint name="l_foot_rear_ft_sensor" type="fixed">
    <origin xyz="0.015999999999999986 -4.163336342344337e-17 -0.04789999999999994" rpy="-1.0970096963229695e-30 1.942890293093975e-16 2.0306083615826833e-17"/>
    <parent link="l_ankle_2"/>
    <child link="l_foot_rear"/>
  </joint>
  <link name="l_foot_rear">
    <inertial>
      <mass value="0.22110467939552797"/>
      <origin xyz="5.879202911244826e-4 -3.7479246789429155e-9 -0.020000616615901134" rpy="0 -0 0"/>
      <inertia ixx="0.01" ixy="0" ixz="0" iyy="0.01" iyz="0" izz="0.01"/>
    </inertial>
    <visual>
      <origin xyz="0 0 0" rpy="0 -0 0"/>
      <geometry>
        <mesh filename="package://ergoCub/meshes/simmechanics/sim_ecub_1-1_l_foot_rear.obj" scale="0.001 0.001 0.001"/>
      </geometry>
      <material name="">
        <color rgba="1 0.51 0 1"/>
      </material>
    </visual>
    <collision>
      <origin xyz="0 0 -0.0193" rpy="0 -0 0"/>
      <geometry>
        <box size="0.117 0.1 0.006"/>
      </geometry>
    </collision>
  </link>
  <link name="head_imu_0"/>
  <joint name="head_imu_0_fixed_joint" type="fixed">
    <origin xyz="-0.004299999999999899 -0.005500000000001061 0.03823450000000106" rpy="-3.141592653589788 -9.688477917552238e-15 1.5707963267948986"/>
    <parent link="head"/>
    <child link="head_imu_0"/>
  </joint>
  <link name="realsense_imu_0"/>
  <joint name="realsense_imu_0_fixed_joint" type="fixed">
    <origin xyz="0.007515481871156526 0.010000000000000002 1.7352099479506222e-8" rpy="-1.5707963267948966 3.7596758519972983e-16 -1.5707963267948966"/>
    <parent link="realsense"/>
    <child link="realsense_imu_0"/>
  </joint>
  <link name="l_arm_ft"/>
  <joint name="l_arm_ft_fixed_joint" type="fixed">
    <origin xyz="-0.004349999999999996 -2.7755575615628914e-17 -0.054300000000000015" rpy="3.141592653589793 2.498001805406602e-16 -1.5707963267948952"/>
    <parent link="l_shoulder_2"/>
    <child link="l_arm_ft"/>
  </joint>
  <link name="l_foot_front_ft"/>
  <joint name="l_foot_front_ft_fixed_joint" type="fixed">
    <origin xyz="0.13525 -4.163336342344337e-17 -0.047899999999999054" rpy="-4.259189482954547e-17 -7.513330770412076e-17 -2.0943951023931966"/>
    <parent link="l_ankle_2"/>
    <child link="l_foot_front_ft"/>
  </joint>
  <link name="l_foot_rear_ft"/>
  <joint name="l_foot_rear_ft_fixed_joint" type="fixed">
    <origin xyz="0.015999999999999993 -2.7755575615628914e-17 -0.04789999999999983" rpy="-4.259189482954531e-17 -7.513330770412153e-17 -2.0943951023931957"/>
    <parent link="l_ankle_2"/>
    <child link="l_foot_rear_ft"/>
  </joint>
  <link name="l_leg_ft"/>
  <joint name="l_leg_ft_fixed_joint" type="fixed">
    <origin xyz="0.03669999999999986 -1.3877787807814457e-17 -0.08969999999999997" rpy="-3.1415926535897927 -1.4675346083959194e-15 2.617993877991494"/>
    <parent link="l_hip_2"/>
    <child link="l_leg_ft"/>
  </joint>
  <link name="r_arm_ft"/>
  <joint name="r_arm_ft_fixed_joint" type="fixed">
    <origin xyz="-0.006849999999999986 -2.7755575615628914e-17 -0.05429999999999999" rpy="3.141592653589793 1.6653345369377348e-16 1.5707963267948981"/>
    <parent link="r_shoulder_2"/>
    <child link="r_arm_ft"/>
  </joint>
  <link name="r_foot_front_ft"/>
  <joint name="r_foot_front_ft_fixed_joint" type="fixed">
    <origin xyz="0.13525 1.3877787807814457e-17 -0.04789999999999983" rpy="-4.2591894829555776e-17 -7.513330770412949e-17 -2.094395102393197"/>
    <parent link="r_ankle_2"/>
    <child link="r_foot_front_ft"/>
  </joint>
  <link name="r_foot_rear_ft"/>
  <joint name="r_foot_rear_ft_fixed_joint" type="fixed">
    <origin xyz="0.016 1.3877787807814457e-17 -0.04789999999999994" rpy="-4.2591894829543154e-17 -7.513330770412949e-17 -2.0943951023931966"/>
    <parent link="r_ankle_2"/>
    <child link="r_foot_rear_ft"/>
  </joint>
  <link name="r_leg_ft"/>
  <joint name="r_leg_ft_fixed_joint" type="fixed">
    <origin xyz="0.03669999999999999 0 -0.08969999999999997" rpy="-3.1415926535897927 -8.654368135774127e-16 -2.6179938779914935"/>
    <parent link="r_hip_2"/>
    <child link="r_leg_ft"/>
  </joint>
  <link name="realsense_depth_frame"/>
  <joint name="realsense_depth_frame_fixed_joint" type="fixed">
    <origin xyz="0.007515481871156526 0.010000000000000002 1.7352099479506222e-8" rpy="-1.5707963267948966 3.7596758519972983e-16 -1.5707963267948966"/>
    <parent link="realsense"/>
    <child link="realsense_depth_frame"/>
  </joint>
  <link name="imu_frame"/>
  <joint name="imu_frame_fixed_joint" type="fixed">
    <origin xyz="-0.004299999999999899 -0.005500000000001061 0.03823450000000106" rpy="-3.141592653589788 -9.688477917552238e-15 1.5707963267948986"/>
    <parent link="head"/>
    <child link="imu_frame"/>
  </joint>
  <link name="realsense_rgb_frame"/>
  <joint name="realsense_rgb_frame_fixed_joint" type="fixed">
    <origin xyz="0.007515481871156526 -0.011499999999999996 1.7352099701550827e-8" rpy="-1.5707963267948966 3.7596758519972983e-16 -1.5707963267948966"/>
    <parent link="realsense"/>
    <child link="realsense_rgb_frame"/>
  </joint>
  <link name="head_laser_frame"/>
  <joint name="head_laser_frame_fixed_joint" type="fixed">
    <origin xyz="5.000000000061726e-5 -1.938549701738834e-15 0.13480249990363524" rpy="9.721954681893984e-15 5.33156930061495e-15 3.167605067133685e-15"/>
    <parent link="head"/>
    <child link="head_laser_frame"/>
  </joint>
  <link name="l_hand_index_skin_0"/>
  <joint name="l_hand_index_skin_0_fixed_joint" type="fixed">
    <origin xyz="-2.0816681711721685e-17 -0.0024341972556574665 -0.02140622670084852" rpy="-1.0165154595159104e-16 1.2224883899444141 -1.5707963267948974"/>
    <parent link="l_hand_index_3"/>
    <child link="l_hand_index_skin_0"/>
  </joint>
  <link name="l_hand_index_skin_1"/>
  <joint name="l_hand_index_skin_1_fixed_joint" type="fixed">
    <origin xyz="0.0032999999999999696 -0.0031314255941774782 -0.023281177896674887" rpy="-1.0099028177691407e-16 1.2201097747080034 -1.5707963267948977"/>
    <parent link="l_hand_index_3"/>
    <child link="l_hand_index_skin_1"/>
  </joint>
  <link name="l_hand_index_skin_10"/>
  <joint name="l_hand_index_skin_10_fixed_joint" type="fixed">
    <origin xyz="-0.003300000000000018 -0.004081895179626538 -0.027767378161022094" rpy="-3.1415926535897927 1.5047763445693798 1.5707963267948952"/>
    <parent link="l_hand_index_3"/>
    <child link="l_hand_index_skin_10"/>
  </joint>
  <link name="l_hand_index_skin_11"/>
  <joint name="l_hand_index_skin_11_fixed_joint" type="fixed">
    <origin xyz="-0.0033000000000000113 -0.0031314255941774782 -0.023281177896674887" rpy="-1.009902817769141e-16 1.220109774708004 -1.5707963267948977"/>
    <parent link="l_hand_index_3"/>
    <child link="l_hand_index_skin_11"/>
  </joint>
  <link name="l_hand_index_skin_2"/>
  <joint name="l_hand_index_skin_2_fixed_joint" type="fixed">
    <origin xyz="-3.469446951953614e-17 -0.0037584484925220485 -0.025192811316913255" rpy="-1.3243978167925783e-16 1.3057395010009958 -1.5707963267948977"/>
    <parent link="l_hand_index_3"/>
    <child link="l_hand_index_skin_2"/>
  </joint>
  <link name="l_hand_index_skin_3"/>
  <joint name="l_hand_index_skin_3_fixed_joint" type="fixed">
    <origin xyz="0.0033000000000000043 -0.004081895179626538 -0.02776737816102215" rpy="-3.1415926535897927 1.5047763445693798 1.5707963267948957"/>
    <parent link="l_hand_index_3"/>
    <child link="l_hand_index_skin_3"/>
  </joint>
  <link name="l_hand_index_skin_4"/>
  <joint name="l_hand_index_skin_4_fixed_joint" type="fixed">
    <origin xyz="0.005929525942276331 -0.001192320688661097 -0.02800000000000008" rpy="3.1415926535897922 1.2994442229713603 2.7771555423255894"/>
    <parent link="l_hand_index_3"/>
    <child link="l_hand_index_skin_4"/>
  </joint>
  <link name="l_hand_index_skin_5"/>
  <joint name="l_hand_index_skin_5_fixed_joint" type="fixed">
    <origin xyz="-3.469446951953614e-17 -0.003476643653964384 -0.029835558531877193" rpy="-3.141592653589793 1.086225915041192 1.570796326794896"/>
    <parent link="l_hand_index_3"/>
    <child link="l_hand_index_skin_5"/>
  </joint>
  <link name="l_hand_index_skin_6"/>
  <joint name="l_hand_index_skin_6_fixed_joint" type="fixed">
    <origin xyz="0.0032999999999999696 -0.001824647872213786 -0.03177198000353959" rpy="3.141592653589793 0.7785358840004835 2.5323857033718307"/>
    <parent link="l_hand_index_3"/>
    <child link="l_hand_index_skin_6"/>
  </joint>
  <link name="l_hand_index_skin_7"/>
  <joint name="l_hand_index_skin_7_fixed_joint" type="fixed">
    <origin xyz="-2.7755575615628914e-17 -2.727226796668536e-4 -0.03327209888574861" rpy="3.141592653589793 0.6184188593454184 1.5713169902185733"/>
    <parent link="l_hand_index_3"/>
    <child link="l_hand_index_skin_7"/>
  </joint>
  <link name="l_hand_index_skin_8"/>
  <joint name="l_hand_index_skin_8_fixed_joint" type="fixed">
    <origin xyz="-0.003300000000000032 -0.001824647872213786 -0.03177198000353959" rpy="-3.1415926535897927 0.7785358840004832 0.609206950217961"/>
    <parent link="l_hand_index_3"/>
    <child link="l_hand_index_skin_8"/>
  </joint>
  <link name="l_hand_index_skin_9"/>
  <joint name="l_hand_index_skin_9_fixed_joint" type="fixed">
    <origin xyz="-0.00592952594227638 -0.001192320688661097 -0.02800000000000008" rpy="-3.1415926535897922 1.2994442229713599 0.3644371112642022"/>
    <parent link="l_hand_index_3"/>
    <child link="l_hand_index_skin_9"/>
  </joint>
  <link name="l_hand_middle_skin_0"/>
  <joint name="l_hand_middle_skin_0_fixed_joint" type="fixed">
    <origin xyz="-3.469446951953614e-18 -0.002434197255657522 -0.021406226700848463" rpy="4.2693649299668224e-16 1.2224883899444143 -1.5707963267948966"/>
    <parent link="l_hand_middle_2"/>
    <child link="l_hand_middle_skin_0"/>
  </joint>
  <link name="l_hand_middle_skin_1"/>
  <joint name="l_hand_middle_skin_1_fixed_joint" type="fixed">
    <origin xyz="0.003299999999999987 -0.003131425594177506 -0.02328117789667483" rpy="4.2415918346303895e-16 1.2201097747080036 -1.5707963267948966"/>
    <parent link="l_hand_middle_2"/>
    <child link="l_hand_middle_skin_1"/>
  </joint>
  <link name="l_hand_middle_skin_10"/>
  <joint name="l_hand_middle_skin_10_fixed_joint" type="fixed">
    <origin xyz="-0.0033000000000000147 -0.004081895179626538 -0.027767378161022038" rpy="3.141592653589791 1.5047763445693831 1.5707963267948952"/>
    <parent link="l_hand_middle_2"/>
    <child link="l_hand_middle_skin_10"/>
  </joint>
  <link name="l_hand_middle_skin_11"/>
  <joint name="l_hand_middle_skin_11_fixed_joint" type="fixed">
    <origin xyz="-0.0032999999999999835 -0.0031314255941775337 -0.023281177896674776" rpy="4.241591834630392e-16 1.2201097747080036 -1.5707963267948966"/>
    <parent link="l_hand_middle_2"/>
    <child link="l_hand_middle_skin_11"/>
  </joint>
  <link name="l_hand_middle_skin_2"/>
  <joint name="l_hand_middle_skin_2_fixed_joint" type="fixed">
    <origin xyz="-3.469446951953614e-18 -0.0037584484925220762 -0.0251928113169132" rpy="5.562470830528828e-16 1.3057395010009953 -1.5707963267948963"/>
    <parent link="l_hand_middle_2"/>
    <child link="l_hand_middle_skin_2"/>
  </joint>
  <link name="l_hand_middle_skin_3"/>
  <joint name="l_hand_middle_skin_3_fixed_joint" type="fixed">
    <origin xyz="0.0032999999999999835 -0.004081895179626566 -0.027767378161022038" rpy="3.141592653589791 1.5047763445693831 1.5707963267948952"/>
    <parent link="l_hand_middle_2"/>
    <child link="l_hand_middle_skin_3"/>
  </joint>
  <link name="l_hand_middle_skin_4"/>
  <joint name="l_hand_middle_skin_4_fixed_joint" type="fixed">
    <origin xyz="0.0059295259422763626 -0.001192320688661208 -0.028000000000000025" rpy="3.141592653589792 1.2994442229713603 2.7771555423255903"/>
    <parent link="l_hand_middle_2"/>
    <child link="l_hand_middle_skin_4"/>
  </joint>
  <link name="l_hand_middle_skin_5"/>
  <joint name="l_hand_middle_skin_5_fixed_joint" type="fixed">
    <origin xyz="3.469446951953614e-18 -0.0034766436539644396 -0.029835558531877138" rpy="3.141592653589793 1.0862259150411924 1.5707963267948963"/>
    <parent link="l_hand_middle_2"/>
    <child link="l_hand_middle_skin_5"/>
  </joint>
  <link name="l_hand_middle_skin_6"/>
  <joint name="l_hand_middle_skin_6_fixed_joint" type="fixed">
    <origin xyz="0.003299999999999973 -0.0018246478722138137 -0.031771980003539535" rpy="3.1415926535897927 0.7785358840004836 2.532385703371831"/>
    <parent link="l_hand_middle_2"/>
    <child link="l_hand_middle_skin_6"/>
  </joint>
  <link name="l_hand_middle_skin_7"/>
  <joint name="l_hand_middle_skin_7_fixed_joint" type="fixed">
    <origin xyz="6.938893903907228e-18 -2.7272267966693686e-4 -0.03327209888574861" rpy="3.141592653589793 0.6184188593454184 1.5713169902185737"/>
    <parent link="l_hand_middle_2"/>
    <child link="l_hand_middle_skin_7"/>
  </joint>
  <link name="l_hand_middle_skin_8"/>
  <joint name="l_hand_middle_skin_8_fixed_joint" type="fixed">
    <origin xyz="-0.0032999999999999974 -0.0018246478722138137 -0.03177198000353959" rpy="-3.141592653589793 0.7785358840004831 0.6092069502179615"/>
    <parent link="l_hand_middle_2"/>
    <child link="l_hand_middle_skin_8"/>
  </joint>
  <link name="l_hand_middle_skin_9"/>
  <joint name="l_hand_middle_skin_9_fixed_joint" type="fixed">
    <origin xyz="-0.005929525942276366 -0.001192320688661208 -0.02799999999999997" rpy="-3.1415926535897922 1.2994442229713603 0.3644371112642026"/>
    <parent link="l_hand_middle_2"/>
    <child link="l_hand_middle_skin_9"/>
  </joint>
  <link name="l_hand_pinkie_skin_0"/>
  <joint name="l_hand_pinkie_skin_0_fixed_joint" type="fixed">
    <origin xyz="-3.469446951953614e-18 -0.0024341972556575775 -0.021406226700848463" rpy="1.0165154595159098e-16 1.2224883899444139 -1.5707963267948966"/>
    <parent link="l_hand_pinkie_2"/>
    <child link="l_hand_pinkie_skin_0"/>
  </joint>
  <link name="l_hand_pinkie_skin_1"/>
  <joint name="l_hand_pinkie_skin_1_fixed_joint" type="fixed">
    <origin xyz="0.003299999999999994 -0.0031314255941774505 -0.023281177896674776" rpy="1.4138639448767963e-16 1.220109774708003 -1.5707963267948966"/>
    <parent link="l_hand_pinkie_2"/>
    <child link="l_hand_pinkie_skin_1"/>
  </joint>
  <link name="l_hand_pinkie_skin_10"/>
  <joint name="l_hand_pinkie_skin_10_fixed_joint" type="fixed">
    <origin xyz="-0.003300000000000001 -0.004081895179626593 -0.027767378161021983" rpy="3.1415926535897927 1.5047763445693847 1.5707963267948963"/>
    <parent link="l_hand_pinkie_2"/>
    <child link="l_hand_pinkie_skin_10"/>
  </joint>
  <link name="l_hand_pinkie_skin_11"/>
  <joint name="l_hand_pinkie_skin_11_fixed_joint" type="fixed">
    <origin xyz="-0.003300000000000001 -0.0031314255941774505 -0.02328117789667472" rpy="1.0099028177691407e-16 1.2201097747080036 -1.5707963267948968"/>
    <parent link="l_hand_pinkie_2"/>
    <child link="l_hand_pinkie_skin_11"/>
  </joint>
  <link name="l_hand_pinkie_skin_2"/>
  <joint name="l_hand_pinkie_skin_2_fixed_joint" type="fixed">
    <origin xyz="0 -0.0037584484925220485 -0.0251928113169132" rpy="1.324397816792578e-16 1.3057395010009953 -1.5707963267948966"/>
    <parent link="l_hand_pinkie_2"/>
    <child link="l_hand_pinkie_skin_2"/>
  </joint>
  <link name="l_hand_pinkie_skin_3"/>
  <joint name="l_hand_pinkie_skin_3_fixed_joint" type="fixed">
    <origin xyz="0.0033000000000000147 -0.004081895179626649 -0.027767378161022038" rpy="3.1415926535897927 1.5047763445693847 1.5707963267948966"/>
    <parent link="l_hand_pinkie_2"/>
    <child link="l_hand_pinkie_skin_3"/>
  </joint>
  <link name="l_hand_pinkie_skin_4"/>
  <joint name="l_hand_pinkie_skin_4_fixed_joint" type="fixed">
    <origin xyz="0.005929525942276352 -0.001192320688661208 -0.02799999999999997" rpy="3.141592653589792 1.2994442229713603 2.7771555423255907"/>
    <parent link="l_hand_pinkie_2"/>
    <child link="l_hand_pinkie_skin_4"/>
  </joint>
  <link name="l_hand_pinkie_skin_5"/>
  <joint name="l_hand_pinkie_skin_5_fixed_joint" type="fixed">
    <origin xyz="1.0408340855860843e-17 -0.003476643653964384 -0.029835558531877138" rpy="3.141592653589793 1.0862259150411921 1.5707963267948966"/>
    <parent link="l_hand_pinkie_2"/>
    <child link="l_hand_pinkie_skin_5"/>
  </joint>
  <link name="l_hand_pinkie_skin_6"/>
  <joint name="l_hand_pinkie_skin_6_fixed_joint" type="fixed">
    <origin xyz="0.003300000000000018 -0.0018246478722138415 -0.031771980003539535" rpy="3.1415926535897927 0.7785358840004835 2.5323857033718316"/>
    <parent link="l_hand_pinkie_2"/>
    <child link="l_hand_pinkie_skin_6"/>
  </joint>
  <link name="l_hand_pinkie_skin_7"/>
  <joint name="l_hand_pinkie_skin_7_fixed_joint" type="fixed">
    <origin xyz="-3.469446951953614e-18 -2.7272267966693686e-4 -0.03327209888574856" rpy="3.141592653589793 0.6184188593454184 1.571316990218574"/>
    <parent link="l_hand_pinkie_2"/>
    <child link="l_hand_pinkie_skin_7"/>
  </joint>
  <link name="l_hand_pinkie_skin_8"/>
  <joint name="l_hand_pinkie_skin_8_fixed_joint" type="fixed">
    <origin xyz="-0.003299999999999994 -0.0018246478722138137 -0.031771980003539535" rpy="-3.1415926535897927 0.778535884000483 0.6092069502179613"/>
    <parent link="l_hand_pinkie_2"/>
    <child link="l_hand_pinkie_skin_8"/>
  </joint>
  <link name="l_hand_pinkie_skin_9"/>
  <joint name="l_hand_pinkie_skin_9_fixed_joint" type="fixed">
    <origin xyz="-0.0059295259422763764 -0.0011923206886611248 -0.02799999999999997" rpy="-3.1415926535897922 1.299444222971361 0.3644371112642025"/>
    <parent link="l_hand_pinkie_2"/>
    <child link="l_hand_pinkie_skin_9"/>
  </joint>
  <link name="l_hand_ring_skin_0"/>
  <joint name="l_hand_ring_skin_0_fixed_joint" type="fixed">
    <origin xyz="-3.469446951953614e-18 -0.0024341972556575775 -0.02140622670084852" rpy="1.0165154595159097e-16 1.2224883899444141 -1.5707963267948963"/>
    <parent link="l_hand_ring_2"/>
    <child link="l_hand_ring_skin_0"/>
  </joint>
  <link name="l_hand_ring_skin_1"/>
  <joint name="l_hand_ring_skin_1_fixed_joint" type="fixed">
    <origin xyz="0.003300000000000001 -0.003131425594177506 -0.023281177896674887" rpy="1.0099028177691402e-16 1.220109774708004 -1.5707963267948963"/>
    <parent link="l_hand_ring_2"/>
    <child link="l_hand_ring_skin_1"/>
  </joint>
  <link name="l_hand_ring_skin_10"/>
  <joint name="l_hand_ring_skin_10_fixed_joint" type="fixed">
    <origin xyz="-0.003300000000000006 -0.0040818951796267045 -0.027767378161022038" rpy="3.1415926535897927 1.5047763445693865 1.5707963267948968"/>
    <parent link="l_hand_ring_2"/>
    <child link="l_hand_ring_skin_10"/>
  </joint>
  <link name="l_hand_ring_skin_11"/>
  <joint name="l_hand_ring_skin_11_fixed_joint" type="fixed">
    <origin xyz="-0.0032999999999999974 -0.0031314255941775615 -0.023281177896674776" rpy="1.0099028177691407e-16 1.220109774708004 -1.5707963267948963"/>
    <parent link="l_hand_ring_2"/>
    <child link="l_hand_ring_skin_11"/>
  </joint>
  <link name="l_hand_ring_skin_2"/>
  <joint name="l_hand_ring_skin_2_fixed_joint" type="fixed">
    <origin xyz="0 -0.003758448492522104 -0.025192811316913144" rpy="7.946386900755465e-17 1.3057395010009964 -1.5707963267948966"/>
    <parent link="l_hand_ring_2"/>
    <child link="l_hand_ring_skin_2"/>
  </joint>
  <link name="l_hand_ring_skin_3"/>
  <joint name="l_hand_ring_skin_3_fixed_joint" type="fixed">
    <origin xyz="0.0032999999999999974 -0.004081895179626621 -0.027767378161022038" rpy="3.1415926535897927 1.5047763445693865 1.5707963267948968"/>
    <parent link="l_hand_ring_2"/>
    <child link="l_hand_ring_skin_3"/>
  </joint>
  <link name="l_hand_ring_skin_4"/>
  <joint name="l_hand_ring_skin_4_fixed_joint" type="fixed">
    <origin xyz="0.005929525942276356 -0.0011923206886612359 -0.028000000000000025" rpy="3.1415926535897922 1.299444222971361 2.777155542325591"/>
    <parent link="l_hand_ring_2"/>
    <child link="l_hand_ring_skin_4"/>
  </joint>
  <link name="l_hand_ring_skin_5"/>
  <joint name="l_hand_ring_skin_5_fixed_joint" type="fixed">
    <origin xyz="-1.734723475976807e-17 -0.0034766436539644396 -0.029835558531877193" rpy="3.141592653589793 1.0862259150411924 1.5707963267948968"/>
    <parent link="l_hand_ring_2"/>
    <child link="l_hand_ring_skin_5"/>
  </joint>
  <link name="l_hand_ring_skin_6"/>
  <joint name="l_hand_ring_skin_6_fixed_joint" type="fixed">
    <origin xyz="0.003300000000000006 -0.001824647872213897 -0.031771980003539535" rpy="3.1415926535897927 0.7785358840004838 2.532385703371832"/>
    <parent link="l_hand_ring_2"/>
    <child link="l_hand_ring_skin_6"/>
  </joint>
  <link name="l_hand_ring_skin_7"/>
  <joint name="l_hand_ring_skin_7_fixed_joint" type="fixed">
    <origin xyz="-8.673617379884035e-18 -2.7272267966702013e-4 -0.03327209888574861" rpy="3.141592653589793 0.6184188593454183 1.5713169902185744"/>
    <parent link="l_hand_ring_2"/>
    <child link="l_hand_ring_skin_7"/>
  </joint>
  <link name="l_hand_ring_skin_8"/>
  <joint name="l_hand_ring_skin_8_fixed_joint" type="fixed">
    <origin xyz="-0.0033000000000000113 -0.0018246478722139248 -0.031771980003539535" rpy="-3.1415926535897927 0.7785358840004832 0.6092069502179615"/>
    <parent link="l_hand_ring_2"/>
    <child link="l_hand_ring_skin_8"/>
  </joint>
  <link name="l_hand_ring_skin_9"/>
  <joint name="l_hand_ring_skin_9_fixed_joint" type="fixed">
    <origin xyz="-0.0059295259422763695 -0.0011923206886612636 -0.02799999999999997" rpy="-3.1415926535897922 1.2994442229713619 0.36443711126420286"/>
    <parent link="l_hand_ring_2"/>
    <child link="l_hand_ring_skin_9"/>
  </joint>
  <link name="l_sole"/>
  <joint name="l_sole_fixed_joint" type="fixed">
    <origin xyz="0.059629999999999996 -1.3877787807814457e-17 -0.024299999999999877" rpy="0 1.5094274020956558e-31 0"/>
    <parent link="l_foot_rear"/>
    <child link="l_sole"/>
  </joint>
  <link name="l_hand_thumb_skin_0"/>
  <joint name="l_hand_thumb_skin_0_fixed_joint" type="fixed">
    <origin xyz="0.02030622670084857 -0.002434197255657522 0" rpy="1.570796326794896 -5.551115123125783e-16 -0.3483079368504827"/>
    <parent link="l_hand_thumb_3"/>
    <child link="l_hand_thumb_skin_0"/>
  </joint>
  <link name="l_hand_thumb_skin_1"/>
  <joint name="l_hand_thumb_skin_1_fixed_joint" type="fixed">
    <origin xyz="0.022181177896674883 -0.003131425594177506 0.0032999999999999696" rpy="1.570796326794896 -4.718447854656915e-16 -0.3506865520868932"/>
    <parent link="l_hand_thumb_3"/>
    <child link="l_hand_thumb_skin_1"/>
  </joint>
  <link name="l_hand_thumb_skin_10"/>
  <joint name="l_hand_thumb_skin_10_fixed_joint" type="fixed">
    <origin xyz="0.026667378161022146 -0.004081895179626566 -0.0032999999999999696" rpy="1.570796326794896 -2.220446049250313e-16 0.06601998222550998"/>
    <parent link="l_hand_thumb_3"/>
    <child link="l_hand_thumb_skin_10"/>
  </joint>
  <link name="l_hand_thumb_skin_11"/>
  <joint name="l_hand_thumb_skin_11_fixed_joint" type="fixed">
    <origin xyz="0.022181177896674883 -0.0031314255941775337 -0.0032999999999999696" rpy="1.570796326794896 -5.273559366969494e-16 -0.35068655208689314"/>
    <parent link="l_hand_thumb_3"/>
    <child link="l_hand_thumb_skin_11"/>
  </joint>
  <link name="l_hand_thumb_skin_2"/>
  <joint name="l_hand_thumb_skin_2_fixed_joint" type="fixed">
    <origin xyz="0.02409281131691325 -0.0037584484925220485 0" rpy="1.570796326794896 -4.440892098500626e-16 -0.26505682579390083"/>
    <parent link="l_hand_thumb_3"/>
    <child link="l_hand_thumb_skin_2"/>
  </joint>
  <link name="l_hand_thumb_skin_3"/>
  <joint name="l_hand_thumb_skin_3_fixed_joint" type="fixed">
    <origin xyz="0.026667378161022146 -0.004081895179626538 0.0032999999999999696" rpy="1.570796326794896 -1.6653345369377348e-16 0.06601998222550995"/>
    <parent link="l_hand_thumb_3"/>
    <child link="l_hand_thumb_skin_3"/>
  </joint>
  <link name="l_hand_thumb_skin_4"/>
  <joint name="l_hand_thumb_skin_4_fixed_joint" type="fixed">
    <origin xyz="0.026900000000000077 -0.0011923206886611526 0.005929525942276359" rpy="0.37702374862030114 0.25312544974771894 0.09883899272325501"/>
    <parent link="l_hand_thumb_3"/>
    <child link="l_hand_thumb_skin_4"/>
  </joint>
  <link name="l_hand_thumb_skin_5"/>
  <joint name="l_hand_thumb_skin_5_fixed_joint" type="fixed">
    <origin xyz="0.02873555853187719 -0.003476643653964384 0" rpy="1.570796326794896 1.1102230246251565e-16 0.48457041175370413"/>
    <parent link="l_hand_thumb_3"/>
    <child link="l_hand_thumb_skin_5"/>
  </joint>
  <link name="l_hand_thumb_skin_6"/>
  <joint name="l_hand_thumb_skin_6_fixed_joint" type="fixed">
    <origin xyz="0.03067198000353967 -0.0018246478722137582 0.0032999999999999974" rpy="0.7821847394655412 0.6234819116522309 0.5256773813619385"/>
    <parent link="l_hand_thumb_3"/>
    <child link="l_hand_thumb_skin_6"/>
  </joint>
  <link name="l_hand_thumb_skin_7"/>
  <joint name="l_hand_thumb_skin_7_fixed_joint" type="fixed">
    <origin xyz="0.032172098885748665 -2.7272267966693686e-4 -2.7755575615628914e-17" rpy="1.5704944734177164 4.2423453997464313e-4 0.9523774034211625"/>
    <parent link="l_hand_thumb_3"/>
    <child link="l_hand_thumb_skin_7"/>
  </joint>
  <link name="l_hand_thumb_skin_8"/>
  <joint name="l_hand_thumb_skin_8_fixed_joint" type="fixed">
    <origin xyz="0.030671980003539642 -0.001824647872213786 -0.0032999999999999974" rpy="2.35940791412425 -0.6234819116522303 0.5256773813619386"/>
    <parent link="l_hand_thumb_3"/>
    <child link="l_hand_thumb_skin_8"/>
  </joint>
  <link name="l_hand_thumb_skin_9"/>
  <joint name="l_hand_thumb_skin_9_fixed_joint" type="fixed">
    <origin xyz="0.02690000000000005 -0.0011923206886611526 -0.005929525942276387" rpy="2.7645689049694906 -0.25312544974771906 0.09883899272325536"/>
    <parent link="l_hand_thumb_3"/>
    <child link="l_hand_thumb_skin_9"/>
  </joint>
  <link name="r_hand_index_skin_0"/>
  <joint name="r_hand_index_skin_0_fixed_joint" type="fixed">
    <origin xyz="6.100023118155162e-7 -0.0024341972556575497 -0.021406226700848574" rpy="-2.6429401947413134e-16 1.2224883899444456 -1.5707963267948728"/>
    <parent link="r_hand_index_3"/>
    <child link="r_hand_index_skin_0"/>
  </joint>
  <link name="r_hand_index_skin_1"/>
  <joint name="r_hand_index_skin_1_fixed_joint" type="fixed">
    <origin xyz="0.0033006100023118545 -0.0031314255941775893 -0.023281177896674943" rpy="-2.6257473261997123e-16 1.2201097747080345 -1.5707963267948728"/>
    <parent link="r_hand_index_3"/>
    <child link="r_hand_index_skin_1"/>
  </joint>
  <link name="r_hand_index_skin_10"/>
  <joint name="r_hand_index_skin_10_fixed_joint" type="fixed">
    <origin xyz="-0.003299389997688175 -0.004081895179626482 -0.02776737816102215" rpy="-3.141592653589792 1.504776344569575 1.5707963267949228"/>
    <parent link="r_hand_index_3"/>
    <child link="r_hand_index_skin_10"/>
  </joint>
  <link name="r_hand_index_skin_11"/>
  <joint name="r_hand_index_skin_11_fixed_joint" type="fixed">
    <origin xyz="-0.003299389997688168 -0.003131425594177367 -0.023281177896674943" rpy="-2.625747326199714e-16 1.2201097747080347 -1.5707963267948728"/>
    <parent link="r_hand_index_3"/>
    <child link="r_hand_index_skin_11"/>
  </joint>
  <link name="r_hand_index_skin_2"/>
  <joint name="r_hand_index_skin_2_fixed_joint" type="fixed">
    <origin xyz="6.100023118571496e-7 -0.0037584484925220762 -0.02519281131691331" rpy="-3.1785547603021135e-16 1.3057395010010375 -1.5707963267948728"/>
    <parent link="r_hand_index_3"/>
    <child link="r_hand_index_skin_2"/>
  </joint>
  <link name="r_hand_index_skin_3"/>
  <joint name="r_hand_index_skin_3_fixed_joint" type="fixed">
    <origin xyz="0.0033006100023118892 -0.004081895179626621 -0.027767378161022205" rpy="-3.141592653589792 1.504776344569575 1.5707963267949228"/>
    <parent link="r_hand_index_3"/>
    <child link="r_hand_index_skin_3"/>
  </joint>
  <link name="r_hand_index_skin_4"/>
  <joint name="r_hand_index_skin_4_fixed_joint" type="fixed">
    <origin xyz="0.0059301359445881885 -0.0011923206886612636 -0.028000000000000136" rpy="-3.1415926535897847 1.2994442229714065 2.7771555423255645"/>
    <parent link="r_hand_index_3"/>
    <child link="r_hand_index_skin_4"/>
  </joint>
  <link name="r_hand_index_skin_5"/>
  <joint name="r_hand_index_skin_5_fixed_joint" type="fixed">
    <origin xyz="6.100023118363329e-7 -0.0034766436539643564 -0.02983555853187725" rpy="-3.141592653589793 1.086225915041219 1.5707963267949214"/>
    <parent link="r_hand_index_3"/>
    <child link="r_hand_index_skin_5"/>
  </joint>
  <link name="r_hand_index_skin_6"/>
  <joint name="r_hand_index_skin_6_fixed_joint" type="fixed">
    <origin xyz="0.003300610002311799 -0.001824647872213897 -0.03177198000353976" rpy="-3.1415926535897905 0.7785358840004972 2.532385703371822"/>
    <parent link="r_hand_index_3"/>
    <child link="r_hand_index_skin_6"/>
  </joint>
  <link name="r_hand_index_skin_7"/>
  <joint name="r_hand_index_skin_7_fixed_joint" type="fixed">
    <origin xyz="6.100023117600051e-7 -2.7272267966682584e-4 -0.03327209888574878" rpy="-3.141592653589793 0.6184188593454301 1.5713169902185988"/>
    <parent link="r_hand_index_3"/>
    <child link="r_hand_index_skin_7"/>
  </joint>
  <link name="r_hand_index_skin_8"/>
  <joint name="r_hand_index_skin_8_fixed_joint" type="fixed">
    <origin xyz="-0.0032993899976882304 -0.001824647872213675 -0.03177198000353976" rpy="3.1415926535897905 0.7785358840004974 0.6092069502179559"/>
    <parent link="r_hand_index_3"/>
    <child link="r_hand_index_skin_8"/>
  </joint>
  <link name="r_hand_index_skin_9"/>
  <joint name="r_hand_index_skin_9_fixed_joint" type="fixed">
    <origin xyz="-0.00592891593996462 -0.0011923206886609583 -0.028000000000000136" rpy="3.1415926535897847 1.2994442229714065 0.36443711126419487"/>
    <parent link="r_hand_index_3"/>
    <child link="r_hand_index_skin_9"/>
  </joint>
  <link name="r_hand_middle_skin_0"/>
  <joint name="r_hand_middle_skin_0_fixed_joint" type="fixed">
    <origin xyz="4.5102810375396984e-17 -0.0024341972556575497 -0.02140622670084863" rpy="2.642940194741327e-16 1.2224883899444492 -1.5707963267948724"/>
    <parent link="r_hand_middle_2"/>
    <child link="r_hand_middle_skin_0"/>
  </joint>
  <link name="r_hand_middle_skin_1"/>
  <joint name="r_hand_middle_skin_1_fixed_joint" type="fixed">
    <origin xyz="0.003300000000000112 -0.0031314255941775893 -0.023281177896675054" rpy="2.6257473261997256e-16 1.220109774708039 -1.5707963267948724"/>
    <parent link="r_hand_middle_2"/>
    <child link="r_hand_middle_skin_1"/>
  </joint>
  <link name="r_hand_middle_skin_10"/>
  <joint name="r_hand_middle_skin_10_fixed_joint" type="fixed">
    <origin xyz="-0.003299999999999921 -0.004081895179626455 -0.02776737816102226" rpy="3.141592653589792 1.5047763445695816 1.5707963267949185"/>
    <parent link="r_hand_middle_2"/>
    <child link="r_hand_middle_skin_10"/>
  </joint>
  <link name="r_hand_middle_skin_11"/>
  <joint name="r_hand_middle_skin_11_fixed_joint" type="fixed">
    <origin xyz="-0.003299999999999935 -0.0031314255941774782 -0.023281177896674998" rpy="2.6257473261997276e-16 1.2201097747080385 -1.5707963267948724"/>
    <parent link="r_hand_middle_2"/>
    <child link="r_hand_middle_skin_11"/>
  </joint>
  <link name="r_hand_middle_skin_2"/>
  <joint name="r_hand_middle_skin_2_fixed_joint" type="fixed">
    <origin xyz="1.0061396160665481e-16 -0.0037584484925220485 -0.02519281131691342" rpy="3.443434323660649e-16 1.3057395010010426 -1.5707963267948721"/>
    <parent link="r_hand_middle_2"/>
    <child link="r_hand_middle_skin_2"/>
  </joint>
  <link name="r_hand_middle_skin_3"/>
  <joint name="r_hand_middle_skin_3_fixed_joint" type="fixed">
    <origin xyz="0.0033000000000001084 -0.004081895179626621 -0.027767378161022316" rpy="3.141592653589792 1.5047763445695816 1.5707963267949185"/>
    <parent link="r_hand_middle_2"/>
    <child link="r_hand_middle_skin_3"/>
  </joint>
  <link name="r_hand_middle_skin_4"/>
  <joint name="r_hand_middle_skin_4_fixed_joint" type="fixed">
    <origin xyz="0.005929525942276456 -0.0011923206886612359 -0.02800000000000019" rpy="-3.1415926535897922 1.2994442229714078 2.7771555423255703"/>
    <parent link="r_hand_middle_2"/>
    <child link="r_hand_middle_skin_4"/>
  </joint>
  <link name="r_hand_middle_skin_5"/>
  <joint name="r_hand_middle_skin_5_fixed_joint" type="fixed">
    <origin xyz="1.1102230246251565e-16 -0.003476643653964412 -0.029835558531877415" rpy="3.141592653589793 1.0862259150412177 1.57079632679492"/>
    <parent link="r_hand_middle_2"/>
    <child link="r_hand_middle_skin_5"/>
  </joint>
  <link name="r_hand_middle_skin_6"/>
  <joint name="r_hand_middle_skin_6_fixed_joint" type="fixed">
    <origin xyz="0.0033000000000000702 -0.001824647872213897 -0.03177198000353981" rpy="-3.1415926535897927 0.7785358840004967 2.5323857033718227"/>
    <parent link="r_hand_middle_2"/>
    <child link="r_hand_middle_skin_6"/>
  </joint>
  <link name="r_hand_middle_skin_7"/>
  <joint name="r_hand_middle_skin_7_fixed_joint" type="fixed">
    <origin xyz="0 -2.727226796669091e-4 -0.033272098885748835" rpy="3.141592653589793 0.6184188593454285 1.5713169902185977"/>
    <parent link="r_hand_middle_2"/>
    <child link="r_hand_middle_skin_7"/>
  </joint>
  <link name="r_hand_middle_skin_8"/>
  <joint name="r_hand_middle_skin_8_fixed_joint" type="fixed">
    <origin xyz="-0.003299999999999959 -0.001824647872213675 -0.03177198000353976" rpy="3.1415926535897927 0.7785358840004963 0.6092069502179533"/>
    <parent link="r_hand_middle_2"/>
    <child link="r_hand_middle_skin_8"/>
  </joint>
  <link name="r_hand_middle_skin_9"/>
  <joint name="r_hand_middle_skin_9_fixed_joint" type="fixed">
    <origin xyz="-0.0059295259422763626 -0.0011923206886610138 -0.028000000000000247" rpy="3.141592653589792 1.299444222971407 0.3644371112641867"/>
    <parent link="r_hand_middle_2"/>
    <child link="r_hand_middle_skin_9"/>
  </joint>
  <link name="r_hand_pinkie_skin_0"/>
  <joint name="r_hand_pinkie_skin_0_fixed_joint" type="fixed">
    <origin xyz="6.100023117877607e-7 -0.0024352966530424014 -0.02140613339524544" rpy="-7.318432278561446e-16 1.2224646222382454 -1.570796326794873"/>
    <parent link="r_hand_pinkie_2"/>
    <child link="r_hand_pinkie_skin_0"/>
  </joint>
  <link name="r_hand_pinkie_skin_1"/>
  <joint name="r_hand_pinkie_skin_1_fixed_joint" type="fixed">
    <origin xyz="0.0033006100023118268 -0.0031325695546547128 -0.023281068019023854" rpy="-6.866892997389504e-16 1.220086007001834 -1.570796326794873"/>
    <parent link="r_hand_pinkie_2"/>
    <child link="r_hand_pinkie_skin_1"/>
  </joint>
  <link name="r_hand_pinkie_skin_10"/>
  <joint name="r_hand_pinkie_skin_10_fixed_joint" type="fixed">
    <origin xyz="-0.003299389997688182 -0.00408314576652502 -0.027767245691622144" rpy="-3.1415926535897896 1.5048001122757868 1.570796326794921"/>
    <parent link="r_hand_pinkie_2"/>
    <child link="r_hand_pinkie_skin_10"/>
  </joint>
  <link name="r_hand_pinkie_skin_11"/>
  <joint name="r_hand_pinkie_skin_11_fixed_joint" type="fixed">
    <origin xyz="-0.0032993899976882235 -0.003132569554654574 -0.02328106801902391" rpy="-6.866892997389507e-16 1.2200860070018347 -1.570796326794873"/>
    <parent link="r_hand_pinkie_2"/>
    <child link="r_hand_pinkie_skin_11"/>
  </joint>
  <link name="r_hand_pinkie_skin_2"/>
  <joint name="r_hand_pinkie_skin_2_fixed_joint" type="fixed">
    <origin xyz="6.10002311829394e-7 -0.0037596378879635184 -0.025192686535826347" rpy="-9.534829410159e-16 1.305715733294839 -1.570796326794873"/>
    <parent link="r_hand_pinkie_2"/>
    <child link="r_hand_pinkie_skin_2"/>
  </joint>
  <link name="r_hand_pinkie_skin_3"/>
  <joint name="r_hand_pinkie_skin_3_fixed_joint" type="fixed">
    <origin xyz="0.0033006100023118545 -0.004083145766525131 -0.027767245691622144" rpy="-3.1415926535897896 1.5048001122757886 1.5707963267949208"/>
    <parent link="r_hand_pinkie_2"/>
    <child link="r_hand_pinkie_skin_3"/>
  </joint>
  <link name="r_hand_pinkie_skin_4"/>
  <joint name="r_hand_pinkie_skin_4_fixed_joint" type="fixed">
    <origin xyz="0.005930135944588161 -0.001193576805263552 -0.02799993620909197" rpy="-3.141509800662671 1.2994526934524957 2.777235363705706"/>
    <parent link="r_hand_pinkie_2"/>
    <child link="r_hand_pinkie_skin_4"/>
  </joint>
  <link name="r_hand_pinkie_skin_5"/>
  <joint name="r_hand_pinkie_skin_5_fixed_joint" type="fixed">
    <origin xyz="6.100023118224551e-7 -0.0034779433969372997 -0.02983544044733355" rpy="-3.1415926535897927 1.0862496827474222 1.5707963267949205"/>
    <parent link="r_hand_pinkie_2"/>
    <child link="r_hand_pinkie_skin_5"/>
  </joint>
  <link name="r_hand_pinkie_skin_6"/>
  <joint name="r_hand_pinkie_skin_6_fixed_joint" type="fixed">
    <origin xyz="0.003300610002311806 -0.0018259936399500076 -0.03177190118259943" rpy="-3.1415652746824487 0.7785494841047959 2.532404930008197"/>
    <parent link="r_hand_pinkie_2"/>
    <child link="r_hand_pinkie_skin_6"/>
  </joint>
  <link name="r_hand_pinkie_skin_7"/>
  <joint name="r_hand_pinkie_skin_7_fixed_joint" type="fixed">
    <origin xyz="6.100023117461273e-7 -2.741041022262247e-4 -0.03327205695008678" rpy="-3.141592638401719 0.6184426270484112 1.5713169990239941"/>
    <parent link="r_hand_pinkie_2"/>
    <child link="r_hand_pinkie_skin_7"/>
  </joint>
  <link name="r_hand_pinkie_skin_8"/>
  <joint name="r_hand_pinkie_skin_8_fixed_joint" type="fixed">
    <origin xyz="-0.0032993899976882374 -0.001825993639949841 -0.03177190118259943" rpy="3.141565274682449 0.7785494841047964 0.609187723581579"/>
    <parent link="r_hand_pinkie_2"/>
    <child link="r_hand_pinkie_skin_8"/>
  </joint>
  <link name="r_hand_pinkie_skin_9"/>
  <joint name="r_hand_pinkie_skin_9_fixed_joint" type="fixed">
    <origin xyz="-0.005928915939964634 -0.001193576805263219 -0.02799993620909197" rpy="3.1415098006626714 1.2994526934524961 0.36435728988405147"/>
    <parent link="r_hand_pinkie_2"/>
    <child link="r_hand_pinkie_skin_9"/>
  </joint>
  <link name="r_hand_ring_skin_0"/>
  <joint name="r_hand_ring_skin_0_fixed_joint" type="fixed">
    <origin xyz="6.100023118250572e-7 -0.002443682940690084 -0.021405318583492372" rpy="8.125026326439011e-17 1.2221711869850056 -1.5707963267948724"/>
    <parent link="r_hand_ring_2"/>
    <child link="r_hand_ring_skin_0"/>
  </joint>
  <link name="r_hand_ring_skin_1"/>
  <joint name="r_hand_ring_skin_1_fixed_joint" type="fixed">
    <origin xyz="0.003300610002311857 -0.0031415059841915782 -0.023280048522103303" rpy="4.0361116299369085e-17 1.2197925717485947 -1.5707963267948724"/>
    <parent link="r_hand_ring_2"/>
    <child link="r_hand_ring_skin_1"/>
  </joint>
  <link name="r_hand_ring_skin_10"/>
  <joint name="r_hand_ring_skin_10_fixed_joint" type="fixed">
    <origin xyz="-0.0032993899976881775 -0.00409339855780011 -0.027765947068994712" rpy="3.141592653589793 1.5050935475290323 1.5707963267949174"/>
    <parent link="r_hand_ring_2"/>
    <child link="r_hand_ring_skin_10"/>
  </joint>
  <link name="r_hand_ring_skin_11"/>
  <joint name="r_hand_ring_skin_11_fixed_joint" type="fixed">
    <origin xyz="-0.0032993899976881966 -0.0031415059841914394 -0.023280048522103358" rpy="0 1.2197925717485951 -1.5707963267948724"/>
    <parent link="r_hand_ring_2"/>
    <child link="r_hand_ring_skin_11"/>
  </joint>
  <link name="r_hand_ring_skin_2"/>
  <joint name="r_hand_ring_skin_2_fixed_joint" type="fixed">
    <origin xyz="6.100023118632211e-7 -0.0037691352267593403 -0.025191482952653943" rpy="0 1.3054222980415993 -1.5707963267948721"/>
    <parent link="r_hand_ring_2"/>
    <child link="r_hand_ring_skin_2"/>
  </joint>
  <link name="r_hand_ring_skin_3"/>
  <joint name="r_hand_ring_skin_3_fixed_joint" type="fixed">
    <origin xyz="0.003300610002311876 -0.004093398557800332 -0.027765947068994712" rpy="3.141592653589793 1.5050935475290323 1.5707963267949174"/>
    <parent link="r_hand_ring_2"/>
    <child link="r_hand_ring_skin_3"/>
  </joint>
  <link name="r_hand_ring_skin_4"/>
  <joint name="r_hand_ring_skin_4_fixed_joint" type="fixed">
    <origin xyz="0.005930135944588191 -0.001203898000540632 -0.027999485477834485" rpy="-3.140486485943931 1.299557123616737 2.778221251341784"/>
    <parent link="r_hand_ring_2"/>
    <child link="r_hand_ring_skin_4"/>
  </joint>
  <link name="r_hand_ring_skin_5"/>
  <joint name="r_hand_ring_skin_5_fixed_joint" type="fixed">
    <origin xyz="6.100023118424044e-7 -0.0034888030955108063 -0.029834319323373937" rpy="3.141592653589793 1.086543118000662 1.5707963267949199"/>
    <parent link="r_hand_ring_2"/>
    <child link="r_hand_ring_skin_5"/>
  </joint>
  <link name="r_hand_ring_skin_6"/>
  <joint name="r_hand_ring_skin_6_fixed_joint" type="fixed">
    <origin xyz="0.0033006100023118207 -0.001837421635481562 -0.031771264715559355" rpy="-3.1412271951446944 0.7787173596253929 2.532642365718561"/>
    <parent link="r_hand_ring_2"/>
    <child link="r_hand_ring_skin_6"/>
  </joint>
  <link name="r_hand_ring_skin_7"/>
  <joint name="r_hand_ring_skin_7_fixed_joint" type="fixed">
    <origin xyz="6.10002311757403e-7 -2.85972363151199e-4 -0.033271875797554806" rpy="-3.1415924508479622 0.6187360622618672 1.571317107783883"/>
    <parent link="r_hand_ring_2"/>
    <child link="r_hand_ring_skin_7"/>
  </joint>
  <link name="r_hand_ring_skin_8"/>
  <joint name="r_hand_ring_skin_8_fixed_joint" type="fixed">
    <origin xyz="-0.003299389997688226 -0.001837421635481451 -0.031771264715559355" rpy="3.1412271951446944 0.7787173596253927 0.6089502878712151"/>
    <parent link="r_hand_ring_2"/>
    <child link="r_hand_ring_skin_8"/>
  </joint>
  <link name="r_hand_ring_skin_9"/>
  <joint name="r_hand_ring_skin_9_fixed_joint" type="fixed">
    <origin xyz="-0.005928915939964614 -0.001203898000540271 -0.027999485477834374" rpy="3.140486485943931 1.2995571236167378 0.36337140224797254"/>
    <parent link="r_hand_ring_2"/>
    <child link="r_hand_ring_skin_9"/>
  </joint>
  <link name="r_sole"/>
  <joint name="r_sole_fixed_joint" type="fixed">
    <origin xyz="0.05963 -1.3877787807814457e-17 -0.02429999999999999" rpy="0 3.1371750050201436e-30 0"/>
    <parent link="r_foot_rear"/>
    <child link="r_sole"/>
  </joint>
  <link name="r_hand_thumb_skin_0"/>
  <joint name="r_hand_thumb_skin_0_fixed_joint" type="fixed">
    <origin xyz="0.02030622670084796 -0.002434197255657966 1.6653345369377348e-15" rpy="1.5707963267949723 -6.547540287726861e-14 -0.34830793685051614"/>
    <parent link="r_hand_thumb_3"/>
    <child link="r_hand_thumb_skin_0"/>
  </joint>
  <link name="r_hand_thumb_skin_1"/>
  <joint name="r_hand_thumb_skin_1_fixed_joint" type="fixed">
    <origin xyz="0.022181177896674495 -0.003131425594177867 0.0033000000000021346" rpy="1.5707963267949725 -6.530886942357483e-14 -0.3506865520869266"/>
    <parent link="r_hand_thumb_3"/>
    <child link="r_hand_thumb_skin_1"/>
  </joint>
  <link name="r_hand_thumb_skin_10"/>
  <joint name="r_hand_thumb_skin_10_fixed_joint" type="fixed">
    <origin xyz="0.02666737816102109 -0.004081895179627371 -0.0032999999999981933" rpy="1.5707963267949394 -9.0427665355719e-14 0.06601998222549518"/>
    <parent link="r_hand_thumb_3"/>
    <child link="r_hand_thumb_skin_10"/>
  </joint>
  <link name="r_hand_thumb_skin_11"/>
  <joint name="r_hand_thumb_skin_11_fixed_joint" type="fixed">
    <origin xyz="0.02218117789667394 -0.003131425594178172 -0.0032999999999985263" rpy="1.5707963267949725 -6.533662499919046e-14 -0.35068655208692634"/>
    <parent link="r_hand_thumb_3"/>
    <child link="r_hand_thumb_skin_11"/>
  </joint>
  <link name="r_hand_thumb_skin_2"/>
  <joint name="r_hand_thumb_skin_2_fixed_joint" type="fixed">
    <origin xyz="0.024092811316912585 -0.0037584484925226314 1.970645868709653e-15" rpy="1.5707963267949665 -7.155387393709134e-14 -0.2650568257939321"/>
    <parent link="r_hand_thumb_3"/>
    <child link="r_hand_thumb_skin_2"/>
  </joint>
  <link name="r_hand_thumb_skin_3"/>
  <joint name="r_hand_thumb_skin_3_fixed_joint" type="fixed">
    <origin xyz="0.026667378161021674 -0.004081895179627065 0.0033000000000024676" rpy="1.5707963267949394 -9.037215420448774e-14 0.06601998222549521"/>
    <parent link="r_hand_thumb_3"/>
    <child link="r_hand_thumb_skin_3"/>
  </joint>
  <link name="r_hand_thumb_skin_4"/>
  <joint name="r_hand_thumb_skin_4_fixed_joint" type="fixed">
    <origin xyz="0.02689999999999977 -0.0011923206886614024 0.005929525942279246" rpy="0.37702374862034316 0.25312544974764667 0.09883899272323193"/>
    <parent link="r_hand_thumb_3"/>
    <child link="r_hand_thumb_skin_4"/>
  </joint>
  <link name="r_hand_thumb_skin_5"/>
  <joint name="r_hand_thumb_skin_5_fixed_joint" type="fixed">
    <origin xyz="0.028735558531876357 -0.0034766436539650503 2.3869795029440866e-15" rpy="1.570796326794899 -9.997558336749535e-14 0.48457041175371784"/>
    <parent link="r_hand_thumb_3"/>
    <child link="r_hand_thumb_skin_5"/>
  </joint>
  <link name="r_hand_thumb_skin_6"/>
  <joint name="r_hand_thumb_skin_6_fixed_joint" type="fixed">
    <origin xyz="0.030671980003538976 -0.0018246478722142856 0.0033000000000029672" rpy="0.7821847394655398 0.6234819116521846 0.5256773813619555"/>
    <parent link="r_hand_thumb_3"/>
    <child link="r_hand_thumb_skin_6"/>
  </joint>
  <link name="r_hand_thumb_skin_7"/>
  <joint name="r_hand_thumb_skin_7_fixed_joint" type="fixed">
    <origin xyz="0.032172098885747666 -2.7272267966757524e-4 2.8033131371785203e-15" rpy="1.570494473417674 4.2423453988371586e-4 0.9523774034211966"/>
    <parent link="r_hand_thumb_3"/>
    <child link="r_hand_thumb_skin_7"/>
  </joint>
  <link name="r_hand_thumb_skin_8"/>
  <joint name="r_hand_thumb_skin_8_fixed_joint" type="fixed">
    <origin xyz="0.03067198000353842 -0.0018246478722146187 -0.0032999999999976937" rpy="2.3594079141242488 -0.6234819116523849 0.5256773813619544"/>
    <parent link="r_hand_thumb_3"/>
    <child link="r_hand_thumb_skin_8"/>
  </joint>
  <link name="r_hand_thumb_skin_9"/>
  <joint name="r_hand_thumb_skin_9_fixed_joint" type="fixed">
    <origin xyz="0.02689999999999869 -0.0011923206886619853 -0.0059295259422746105" rpy="2.7645689049695323 -0.2531254497478303 0.098838992723253"/>
    <parent link="r_hand_thumb_3"/>
    <child link="r_hand_thumb_skin_9"/>
  </joint>
  <gazebo reference="l_arm_ft_sensor">
    <sensor name="l_arm_ft" type="force_torque">
      <always_on>1</always_on>
      <update_rate>100</update_rate>
      <force_torque>
        <frame>sensor</frame>
        <measure_direction>child_to_parent</measure_direction>
      </force_torque>
      <pose>-3.46945e-18 0 0 3.14159 1.94289e-16 -1.5708 </pose>
      <plugin name="left_arm_ft_plugin" filename="libgazebo_yarp_forcetorque.so">
        <yarpConfigurationFile>model://ergoCub/conf/FT/gazebo_ergocub_left_arm_ft.ini</yarpConfigurationFile>
      </plugin>
    </sensor>
  </gazebo>
  <sensor name="l_arm_ft" type="force_torque">
    <parent joint="l_arm_ft_sensor"/>
    <force_torque>
      <frame>sensor</frame>
      <measure_direction>child_to_parent</measure_direction>
    </force_torque>
    <origin rpy="3.14159 1.94289e-16 -1.5708 " xyz="-3.46945e-18 0 0"/>
  </sensor>
  <gazebo reference="l_foot_front_ft_sensor">
    <sensor name="l_foot_front_ft" type="force_torque">
      <always_on>1</always_on>
      <update_rate>100</update_rate>
      <force_torque>
        <frame>sensor</frame>
        <measure_direction>parent_to_child</measure_direction>
      </force_torque>
      <pose>0 0 0 1.25667e-16 2.20112e-17 -2.0944 </pose>
      <plugin name="left_foot_front_ft_plugin" filename="libgazebo_yarp_forcetorque.so">
        <yarpConfigurationFile>model://ergoCub/conf/FT/gazebo_ergocub_left_foot_front_ft.ini</yarpConfigurationFile>
      </plugin>
    </sensor>
  </gazebo>
  <sensor name="l_foot_front_ft" type="force_torque">
    <parent joint="l_foot_front_ft_sensor"/>
    <force_torque>
      <frame>sensor</frame>
      <measure_direction>parent_to_child</measure_direction>
    </force_torque>
    <origin rpy="1.25667e-16 2.20112e-17 -2.0944 " xyz="0 0 0"/>
  </sensor>
  <gazebo reference="l_foot_rear_ft_sensor">
    <sensor name="l_foot_rear_ft" type="force_torque">
      <always_on>1</always_on>
      <update_rate>100</update_rate>
      <force_torque>
        <frame>sensor</frame>
        <measure_direction>parent_to_child</measure_direction>
      </force_torque>
      <pose>0 0 0 1.25667e-16 2.20112e-17 -2.0944 </pose>
      <plugin name="left_foot_rear_ft_plugin" filename="libgazebo_yarp_forcetorque.so">
        <yarpConfigurationFile>model://ergoCub/conf/FT/gazebo_ergocub_left_foot_rear_ft.ini</yarpConfigurationFile>
      </plugin>
    </sensor>
  </gazebo>
  <sensor name="l_foot_rear_ft" type="force_torque">
    <parent joint="l_foot_rear_ft_sensor"/>
    <force_torque>
      <frame>sensor</frame>
      <measure_direction>parent_to_child</measure_direction>
    </force_torque>
    <origin rpy="1.25667e-16 2.20112e-17 -2.0944 " xyz="0 0 0"/>
  </sensor>
  <gazebo reference="l_leg_ft_sensor">
    <sensor name="l_leg_ft" type="force_torque">
      <always_on>1</always_on>
      <update_rate>100</update_rate>
      <force_torque>
        <frame>sensor</frame>
        <measure_direction>child_to_parent</measure_direction>
      </force_torque>
      <pose>5.20417e-18 0 0 3.14159 -2.02132e-15 2.61799 </pose>
      <plugin name="left_leg_ft_plugin" filename="libgazebo_yarp_forcetorque.so">
        <yarpConfigurationFile>model://ergoCub/conf/FT/gazebo_ergocub_left_leg_ft.ini</yarpConfigurationFile>
      </plugin>
    </sensor>
  </gazebo>
  <sensor name="l_leg_ft" type="force_torque">
    <parent joint="l_leg_ft_sensor"/>
    <force_torque>
      <frame>sensor</frame>
      <measure_direction>child_to_parent</measure_direction>
    </force_torque>
    <origin rpy="3.14159 -2.02132e-15 2.61799 " xyz="5.20417e-18 0 0"/>
  </sensor>
  <gazebo reference="r_arm_ft_sensor">
    <sensor name="r_arm_ft" type="force_torque">
      <always_on>1</always_on>
      <update_rate>100</update_rate>
      <force_torque>
        <frame>sensor</frame>
        <measure_direction>child_to_parent</measure_direction>
      </force_torque>
      <pose>0 0 0 -3.14159 -2.77556e-17 1.5708 </pose>
      <plugin name="right_arm_ft_plugin" filename="libgazebo_yarp_forcetorque.so">
        <yarpConfigurationFile>model://ergoCub/conf/FT/gazebo_ergocub_right_arm_ft.ini</yarpConfigurationFile>
      </plugin>
    </sensor>
  </gazebo>
  <sensor name="r_arm_ft" type="force_torque">
    <parent joint="r_arm_ft_sensor"/>
    <force_torque>
      <frame>sensor</frame>
      <measure_direction>child_to_parent</measure_direction>
    </force_torque>
    <origin rpy="-3.14159 -2.77556e-17 1.5708 " xyz="0 0 0"/>
  </sensor>
  <gazebo reference="r_foot_front_ft_sensor">
    <sensor name="r_foot_front_ft" type="force_torque">
      <always_on>1</always_on>
      <update_rate>100</update_rate>
      <force_torque>
        <frame>sensor</frame>
        <measure_direction>parent_to_child</measure_direction>
      </force_torque>
      <pose>0 1.38778e-17 1.11022e-16 -1.0903e-16 -1.44222e-16 -2.0944 </pose>
      <plugin name="right_foot_front_ft_plugin" filename="libgazebo_yarp_forcetorque.so">
        <yarpConfigurationFile>model://ergoCub/conf/FT/gazebo_ergocub_right_foot_front_ft.ini</yarpConfigurationFile>
      </plugin>
    </sensor>
  </gazebo>
  <sensor name="r_foot_front_ft" type="force_torque">
    <parent joint="r_foot_front_ft_sensor"/>
    <force_torque>
      <frame>sensor</frame>
      <measure_direction>parent_to_child</measure_direction>
    </force_torque>
    <origin rpy="-1.0903e-16 -1.44222e-16 -2.0944 " xyz="0 1.38778e-17 1.11022e-16"/>
  </sensor>
  <gazebo reference="r_foot_rear_ft_sensor">
    <sensor name="r_foot_rear_ft" type="force_torque">
      <always_on>1</always_on>
      <update_rate>100</update_rate>
      <force_torque>
        <frame>sensor</frame>
        <measure_direction>parent_to_child</measure_direction>
      </force_torque>
      <pose>3.46945e-18 0 0 -1.0903e-16 -1.44222e-16 -2.0944 </pose>
      <plugin name="right_foot_rear_ft_plugin" filename="libgazebo_yarp_forcetorque.so">
        <yarpConfigurationFile>model://ergoCub/conf/FT/gazebo_ergocub_right_foot_rear_ft.ini</yarpConfigurationFile>
      </plugin>
    </sensor>
  </gazebo>
  <sensor name="r_foot_rear_ft" type="force_torque">
    <parent joint="r_foot_rear_ft_sensor"/>
    <force_torque>
      <frame>sensor</frame>
      <measure_direction>parent_to_child</measure_direction>
    </force_torque>
    <origin rpy="-1.0903e-16 -1.44222e-16 -2.0944 " xyz="3.46945e-18 0 0"/>
  </sensor>
  <gazebo reference="r_leg_ft_sensor">
    <sensor name="r_leg_ft" type="force_torque">
      <always_on>1</always_on>
      <update_rate>100</update_rate>
      <force_torque>
        <frame>sensor</frame>
        <measure_direction>child_to_parent</measure_direction>
      </force_torque>
      <pose>1.21431e-17 2.77556e-17 5.55112e-17 3.14159 2.98881e-16 -2.61799 </pose>
      <plugin name="right_leg_ft_plugin" filename="libgazebo_yarp_forcetorque.so">
        <yarpConfigurationFile>model://ergoCub/conf/FT/gazebo_ergocub_right_leg_ft.ini</yarpConfigurationFile>
      </plugin>
    </sensor>
  </gazebo>
  <sensor name="r_leg_ft" type="force_torque">
    <parent joint="r_leg_ft_sensor"/>
    <force_torque>
      <frame>sensor</frame>
      <measure_direction>child_to_parent</measure_direction>
    </force_torque>
    <origin rpy="3.14159 2.98881e-16 -2.61799 " xyz="1.21431e-17 2.77556e-17 5.55112e-17"/>
  </sensor>
  <gazebo reference="head">
    <sensor name="head_imu_0" type="imu">
      <always_on>1</always_on>
      <update_rate>100.000000</update_rate>
      <pose>-0.0043 -0.0055 0.0382345 -3.14159 -9.68848e-15 1.5708 </pose>
      <plugin name="ergocub_yarp_gazebo_plugin_IMU" filename="libgazebo_yarp_imu.so">
        <yarpConfigurationFile>model://ergoCub/conf/gazebo_ergocub_inertial.ini</yarpConfigurationFile>
      </plugin>
    </sensor>
  </gazebo>
  <sensor name="head_imu_0" type="accelerometer">
    <parent link="head"/>
    <origin rpy="-3.14159 -9.68848e-15 1.5708 " xyz="-0.0043 -0.0055 0.0382345"/>
  </sensor>
  <gazebo reference="realsense">
    <sensor name="realsense_head_depth" type="depth">
      <always_on>1</always_on>
      <update_rate>30.000000</update_rate>
      <pose>0.00751548 -0.0115 1.73521e-08 -1.5708 3.75968e-16 -1.5708 </pose>
      <camera name="intel_realsense_depth_camera">
        <pose>0 0 0 -1.57079 -1.57079 3.14159</pose>
        <horizontal_fov>1.2217</horizontal_fov>
        <distortion>
          <k1>0</k1>
          <k2>0</k2>
          <k3>0</k3>
          <p1>0</p1>
          <p2>0</p2>
          <center>319.5 239.5</center>
        </distortion>
        <image>
          <width>640</width>
          <height>480</height>
          <format>R8G8B8</format>
        </image>
        <clip>
          <near>0.175</near>
          <far>3000</far>
        </clip>
      </camera>
      <visualize>false</visualize>
      <plugin name="ergocub_yarp_gazebo_plugin_depthCamera" filename="libgazebo_yarp_depthCamera.so">
        <yarpConfigurationFile>model://ergoCub/conf/sensors/gazebo_ergocub_rgbd_camera.ini</yarpConfigurationFile>
      </plugin>
    </sensor>
  </gazebo>
  <sensor name="realsense_head_depth" type="depth">
    <parent link="realsense"/>
    <origin rpy="-1.5708 3.75968e-16 -1.5708 " xyz="0.00751548 -0.0115 1.73521e-08"/>
  </sensor>
  <gazebo reference="realsense">
    <sensor name="realsense_head_rgb" type="camera">
      <always_on>1</always_on>
      <update_rate>30.000000</update_rate>
      <pose>0.00751548 -0.0115 1.73521e-08 -1.5708 3.75968e-16 -1.5708 </pose>
      <camera name="intel_realsense_rgb_camera">
        <pose>0 0 0 -1.57079 -1.57079 3.14159</pose>
        <horizontal_fov>1.2217</horizontal_fov>
        <distortion>
          <k1>0</k1>
          <k2>0</k2>
          <k3>0</k3>
          <p1>0</p1>
          <p2>0</p2>
          <center>319.5 239.5</center>
        </distortion>
        <image>
          <width>640</width>
          <height>480</height>
          <format>R8G8B8</format>
        </image>
        <clip>
          <near>0.02</near>
          <far>3000</far>
        </clip>
      </camera>
      <visualize>false</visualize>
      <plugin name="ergocub_yarp_gazebo_plugin_camera" filename="libgazebo_yarp_camera.so">
        <yarpConfigurationFile>model://ergoCub/conf/gazebo_ergocub_rgb_camera.ini</yarpConfigurationFile>
      </plugin>
    </sensor>
  </gazebo>
  <sensor name="realsense_head_rgb" type="camera">
    <parent link="realsense"/>
    <origin rpy="-1.5708 3.75968e-16 -1.5708 " xyz="0.00751548 -0.0115 1.73521e-08"/>
  </sensor>
  <gazebo reference="realsense">
    <sensor name="realsense_imu_0" type="imu">
      <always_on>1</always_on>
      <update_rate>100.000000</update_rate>
      <pose>0.00751548 0.01 1.73521e-08 -1.5708 3.75968e-16 -1.5708 </pose>
      <plugin name="ergocub_yarp_gazebo_plugin_IMU" filename="libgazebo_yarp_imu.so">
        <yarpConfigurationFile>model://ergoCub/conf/gazebo_ergocub_realsense_inertial.ini</yarpConfigurationFile>
      </plugin>
    </sensor>
  </gazebo>
  <sensor name="realsense_imu_0" type="accelerometer">
    <parent link="realsense"/>
    <origin rpy="-1.5708 3.75968e-16 -1.5708 " xyz="0.00751548 0.01 1.73521e-08"/>
  </sensor>
  <gazebo reference="head">
    <sensor name="lasersensor_head" type="gpu_lidar">
      <always_on>1</always_on>
      <update_rate>100.000000</update_rate>
      <pose>5e-05 -1.93855e-15 0.134802 9.72195e-15 5.33157e-15 3.16761e-15 </pose>
      <always_on>1</always_on>
      <visualize>true</visualize>
      <update_rate>40</update_rate>
      <ray>
        <scan>
          <horizontal>
            <samples>720</samples>
            <resolution>0.5</resolution>
            <min_angle>0</min_angle>
            <max_angle>6.28</max_angle>
          </horizontal>
        </scan>
        <range>
          <min>0.2</min>
          <max>5</max>
          <resolution>0.01</resolution>
        </range>
        <noise>
          <type>gaussian</type>
          <mean>0</mean>
          <stddev>0.005</stddev>
        </noise>
      </ray>
      <plugin name="ergocub_yarp_gazebo_plugin_laser" filename="libgazebo_yarp_lasersensor.so">
        <yarpConfigurationFile>model://ergoCub/conf/sensors/gazebo_ergocub_lidar.ini</yarpConfigurationFile>
      </plugin>
    </sensor>
  </gazebo>
  <sensor name="lasersensor_head" type="gpu_lidar">
    <parent link="head"/>
    <origin rpy="9.72195e-15 5.33157e-15 3.16761e-15 " xyz="5e-05 -1.93855e-15 0.134802"/>
  </sensor>
  <gazebo reference="l_foot_front">
    <sensor name="l_foot_front_ft_imu" type="imu">
      <always_on>1</always_on>
      <update_rate>100.000000</update_rate>
      <pose>0 0 0 1.25667e-16 2.20112e-17 -2.0944 </pose>
      <plugin name="ergocub_yarp_gazebo_plugin_IMU" filename="libgazebo_yarp_imu.so">
        <yarpConfigurationFile>model://ergoCub/conf/gazebo_ergocub_l_foot_front_ft_sensor_inertial.ini</yarpConfigurationFile>
      </plugin>
    </sensor>
  </gazebo>
  <sensor name="l_foot_front_ft_imu" type="accelerometer">
    <parent link="l_foot_front"/>
    <origin rpy="1.25667e-16 2.20112e-17 -2.0944 " xyz="0 0 0"/>
  </sensor>
  <gazebo reference="l_foot_rear">
    <sensor name="l_foot_rear_ft_imu" type="imu">
      <always_on>1</always_on>
      <update_rate>100.000000</update_rate>
      <pose>0 0 0 1.25667e-16 2.20112e-17 -2.0944 </pose>
      <plugin name="ergocub_yarp_gazebo_plugin_IMU" filename="libgazebo_yarp_imu.so">
        <yarpConfigurationFile>model://ergoCub/conf/gazebo_ergocub_l_foot_rear_ft_sensor_inertial.ini</yarpConfigurationFile>
      </plugin>
    </sensor>
  </gazebo>
  <sensor name="l_foot_rear_ft_imu" type="accelerometer">
    <parent link="l_foot_rear"/>
    <origin rpy="1.25667e-16 2.20112e-17 -2.0944 " xyz="0 0 0"/>
  </sensor>
  <gazebo reference="r_foot_front">
    <sensor name="r_foot_front_ft_imu" type="imu">
      <always_on>1</always_on>
      <update_rate>100.000000</update_rate>
      <pose>0 1.38778e-17 1.11022e-16 -1.0903e-16 -1.44222e-16 -2.0944 </pose>
      <plugin name="ergocub_yarp_gazebo_plugin_IMU" filename="libgazebo_yarp_imu.so">
        <yarpConfigurationFile>model://ergoCub/conf/gazebo_ergocub_r_foot_front_ft_sensor_inertial.ini</yarpConfigurationFile>
      </plugin>
    </sensor>
  </gazebo>
  <sensor name="r_foot_front_ft_imu" type="accelerometer">
    <parent link="r_foot_front"/>
    <origin rpy="-1.0903e-16 -1.44222e-16 -2.0944 " xyz="0 1.38778e-17 1.11022e-16"/>
  </sensor>
  <gazebo reference="r_foot_rear">
    <sensor name="r_foot_rear_ft_imu" type="imu">
      <always_on>1</always_on>
      <update_rate>100.000000</update_rate>
      <pose>3.46945e-18 0 0 -1.0903e-16 -1.44222e-16 -2.0944 </pose>
      <plugin name="ergocub_yarp_gazebo_plugin_IMU" filename="libgazebo_yarp_imu.so">
        <yarpConfigurationFile>model://ergoCub/conf/gazebo_ergocub_r_foot_rear_ft_sensor_inertial.ini</yarpConfigurationFile>
      </plugin>
    </sensor>
  </gazebo>
  <sensor name="r_foot_rear_ft_imu" type="accelerometer">
    <parent link="r_foot_rear"/>
    <origin rpy="-1.0903e-16 -1.44222e-16 -2.0944 " xyz="3.46945e-18 0 0"/>
  </sensor>
  <gazebo reference="l_shoulder_3">
    <sensor name="l_arm_ft_imu" type="imu">
      <always_on>1</always_on>
      <update_rate>100.000000</update_rate>
      <pose>-3.46945e-18 0 0 3.14159 1.94289e-16 -1.5708 </pose>
      <plugin name="ergocub_yarp_gazebo_plugin_IMU" filename="libgazebo_yarp_imu.so">
        <yarpConfigurationFile>model://ergoCub/conf/gazebo_ergocub_l_arm_ft_sensor_inertial.ini</yarpConfigurationFile>
      </plugin>
    </sensor>
  </gazebo>
  <sensor name="l_arm_ft_imu" type="accelerometer">
    <parent link="l_shoulder_3"/>
    <origin rpy="3.14159 1.94289e-16 -1.5708 " xyz="-3.46945e-18 0 0"/>
  </sensor>
  <gazebo reference="r_shoulder_3">
    <sensor name="r_arm_ft_imu" type="imu">
      <always_on>1</always_on>
      <update_rate>100.000000</update_rate>
      <pose>0 0 0 -3.14159 -2.77556e-17 1.5708 </pose>
      <plugin name="ergocub_yarp_gazebo_plugin_IMU" filename="libgazebo_yarp_imu.so">
        <yarpConfigurationFile>model://ergoCub/conf/gazebo_ergocub_r_arm_ft_sensor_inertial.ini</yarpConfigurationFile>
      </plugin>
    </sensor>
  </gazebo>
  <sensor name="r_arm_ft_imu" type="accelerometer">
    <parent link="r_shoulder_3"/>
    <origin rpy="-3.14159 -2.77556e-17 1.5708 " xyz="0 0 0"/>
  </sensor>
  <gazebo reference="l_hip_3">
    <sensor name="l_leg_ft_imu" type="imu">
      <always_on>1</always_on>
      <update_rate>100.000000</update_rate>
      <pose>5.20417e-18 0 0 3.14159 -2.02132e-15 2.61799 </pose>
      <plugin name="ergocub_yarp_gazebo_plugin_IMU" filename="libgazebo_yarp_imu.so">
        <yarpConfigurationFile>model://ergoCub/conf/gazebo_ergocub_l_leg_ft_sensor_inertial.ini</yarpConfigurationFile>
      </plugin>
    </sensor>
  </gazebo>
  <sensor name="l_leg_ft_imu" type="accelerometer">
    <parent link="l_hip_3"/>
    <origin rpy="3.14159 -2.02132e-15 2.61799 " xyz="5.20417e-18 0 0"/>
  </sensor>
  <gazebo reference="r_hip_3">
    <sensor name="r_leg_ft_imu" type="imu">
      <always_on>1</always_on>
      <update_rate>100.000000</update_rate>
      <pose>1.21431e-17 2.77556e-17 5.55112e-17 3.14159 2.98881e-16 -2.61799 </pose>
      <plugin name="ergocub_yarp_gazebo_plugin_IMU" filename="libgazebo_yarp_imu.so">
        <yarpConfigurationFile>model://ergoCub/conf/gazebo_ergocub_r_leg_ft_sensor_inertial.ini</yarpConfigurationFile>
      </plugin>
    </sensor>
  </gazebo>
  <sensor name="r_leg_ft_imu" type="accelerometer">
    <parent link="r_hip_3"/>
    <origin rpy="3.14159 2.98881e-16 -2.61799 " xyz="1.21431e-17 2.77556e-17 5.55112e-17"/>
  </sensor>
  <gazebo>
    <plugin name="controlboard_left_hand" filename="libgazebo_yarp_controlboard.so">
      <yarpConfigurationFile>model://ergoCub/conf/gazebo_ergocub_left_hand_mk5_0.ini</yarpConfigurationFile>
    </plugin>
  </gazebo>
  <gazebo>
    <plugin name="gzyarp::ControlBoard" filename="gz-sim-yarp-controlboard-system">
      <yarpConfigurationFile>model://ergoCub/conf/gazebo_ergocub_left_hand_mk5_0.ini</yarpConfigurationFile>
    </plugin>
  </gazebo>
  <gazebo>
    <plugin name="controlboard_right_hand" filename="libgazebo_yarp_controlboard.so">
      <yarpConfigurationFile>model://ergoCub/conf/gazebo_ergocub_right_hand_mk5_0.ini</yarpConfigurationFile>
    </plugin>
  </gazebo>
  <gazebo>
    <plugin name="gzyarp::ControlBoard" filename="gz-sim-yarp-controlboard-system">
      <yarpConfigurationFile>model://ergoCub/conf/gazebo_ergocub_right_hand_mk5_0.ini</yarpConfigurationFile>
    </plugin>
  </gazebo>
  <link name="waist_imu_0"/>
  <joint name="waist_imu_0_fixed_joint" type="fixed">
    <origin xyz="0.0606 -0.00639428 0.01745" rpy="1.5708 -0.000105208 -1.5708"/>
    <parent link="torso_1"/>
    <child link="waist_imu_0"/>
    <dynamics damping="0.1"/>
  </joint>
  <gazebo>
    <plugin name="ergocub_yarp_gazebo_plugin_IMU" filename="libgazebo_yarp_imu.so">
      <yarpConfigurationFile>model://ergoCub/conf/gazebo_ergocub_waist_inertial.ini</yarpConfigurationFile>
    </plugin>
  </gazebo>
  <gazebo reference="torso_1">
    <sensor name="waist_imu_0" type="imu">
      <always_on>1</always_on>
      <update_rate>100</update_rate>
      <pose>0.0606 -0.00639428 0.01745 1.5708 -0.000105208 -1.5708</pose>
      <plugin name="ergocub_yarp_gazebo_plugin_IMU" filename="libgazebo_yarp_imu.so">
        <yarpConfigurationFile>model://ergoCub/conf/gazebo_ergocub_waist_inertial.ini</yarpConfigurationFile>
      </plugin>
    </sensor>
  </gazebo>
  <gazebo>
    <plugin name="gzyarp::Imu" filename="gz-sim-yarp-imu-system">
      <yarpConfigurationFile>model://ergoCub/conf/gazebo_ergocub_waist_inertial.ini</yarpConfigurationFile>
    </plugin>
  </gazebo>
  <sensor name="waist_imu_0" type="accelerometer">
    <parent link="torso_1"/>
    <origin xyz="0.0606 -0.00639428 0.01745" rpy="1.5708 -0.000105208 -1.5708"/>
  </sensor>
  <link name="base_link"/>
  <joint name="base_link_fixed_joint" type="fixed">
    <origin xyz="0 0 0" rpy="0 -0 0"/>
    <axis xyz="0 0 0"/>
    <parent link="root_link"/>
    <child link="base_link"/>
  </joint>
  <gazebo reference="r_arm_ft_sensor">
    <preserveFixedJoint>true</preserveFixedJoint>
    <!-- For compatibility with SDFormat < 4.4 -->
    <disableFixedJointLumping>true</disableFixedJointLumping>
  </gazebo>
  <gazebo reference="l_arm_ft_sensor">
    <preserveFixedJoint>true</preserveFixedJoint>
    <!-- For compatibility with SDFormat < 4.4 -->
    <disableFixedJointLumping>true</disableFixedJointLumping>
  </gazebo>
  <gazebo>
    <plugin name="gzyarp::ForceTorque" filename="gz-sim-yarp-forcetorque-system">
      <yarpConfigurationFile>model://ergoCub/conf/FT/gazebo_ergocub_left_arm_ft.ini</yarpConfigurationFile>
    </plugin>
  </gazebo>
  <gazebo>
    <plugin name="gzyarp::ForceTorque" filename="gz-sim-yarp-forcetorque-system">
      <yarpConfigurationFile>model://ergoCub/conf/FT/gazebo_ergocub_right_arm_ft.ini</yarpConfigurationFile>
    </plugin>
  </gazebo>
  <gazebo>
    <plugin name="gzyarp::Imu" filename="gz-sim-yarp-imu-system">
      <yarpConfigurationFile>model://ergoCub/conf/gazebo_ergocub_l_arm_ft_sensor_inertial.ini</yarpConfigurationFile>
    </plugin>
  </gazebo>
  <gazebo>
    <plugin name="gzyarp::Imu" filename="gz-sim-yarp-imu-system">
      <yarpConfigurationFile>model://ergoCub/conf/gazebo_ergocub_r_arm_ft_sensor_inertial.ini</yarpConfigurationFile>
    </plugin>
  </gazebo>
  <gazebo>
    <plugin name="controlboard_torso" filename="libgazebo_yarp_controlboard.so">
      <yarpConfigurationFile>model://ergoCub/conf/gazebo_ergocub_torso.ini</yarpConfigurationFile>
    </plugin>
  </gazebo>
  <gazebo>
    <plugin name="gzyarp::ControlBoard" filename="gz-sim-yarp-controlboard-system">
      <yarpConfigurationFile>model://ergoCub/conf/gazebo_ergocub_torso.ini</yarpConfigurationFile>
    </plugin>
  </gazebo>
  <gazebo reference="torso_pitch">
    <implicitSpringDamper>1</implicitSpringDamper>
  </gazebo>
  <gazebo reference="torso_roll">
    <implicitSpringDamper>1</implicitSpringDamper>
  </gazebo>
  <gazebo reference="torso_yaw">
    <implicitSpringDamper>1</implicitSpringDamper>
  </gazebo>
  <gazebo reference="r_shoulder_pitch">
    <implicitSpringDamper>1</implicitSpringDamper>
  </gazebo>
  <gazebo reference="r_shoulder_roll">
    <implicitSpringDamper>1</implicitSpringDamper>
  </gazebo>
  <gazebo reference="r_shoulder_yaw">
    <implicitSpringDamper>1</implicitSpringDamper>
  </gazebo>
  <gazebo reference="l_shoulder_pitch">
    <implicitSpringDamper>1</implicitSpringDamper>
  </gazebo>
  <gazebo reference="l_shoulder_roll">
    <implicitSpringDamper>1</implicitSpringDamper>
  </gazebo>
  <gazebo reference="l_shoulder_yaw">
    <implicitSpringDamper>1</implicitSpringDamper>
  </gazebo>
  <gazebo reference="realsense">
    <sensor name="realsense_head_rgbd" type="rgbd_camera">
      <always_on>1</always_on>
      <update_rate>30.000000</update_rate>
      <pose>0.00751548 -0.0115 1.73521e-08 0 0 0 </pose>
      <camera name="intel_realsense_rgbd_camera">
        <pose>0 0 0 -1.57079 -1.57079 3.14159</pose>
        <horizontal_fov>1.2217</horizontal_fov>
        <distortion>
          <k1>0</k1>
          <k2>0</k2>
          <k3>0</k3>
          <p1>0</p1>
          <p2>0</p2>
          <center>319.5 239.5</center>
        </distortion>
        <image>
          <width>640</width>
          <height>480</height>
          <format>R8G8B8</format>
        </image>
        <clip>
          <near>0.175</near>
          <far>3000</far>
        </clip>
      </camera>
      <visualize>false</visualize>
    </sensor>
  </gazebo>
  <sensor name="realsense_head_rgbd" type="rgbd_camera">
    <parent link="realsense"/>
    <origin rpy="-1.5708 3.75968e-16 -1.5708 " xyz="0.00751548 -0.0115 1.73521e-08"/>
  </sensor>
  <gazebo reference="l_leg_ft_sensor">
    <preserveFixedJoint>true</preserveFixedJoint>
    <!-- For compatibility with SDFormat < 4.4 -->
    <disableFixedJointLumping>true</disableFixedJointLumping>
  </gazebo>
  <gazebo reference="l_foot_front_ft_sensor">
    <preserveFixedJoint>true</preserveFixedJoint>
    <!-- For compatibility with SDFormat < 4.4 -->
    <disableFixedJointLumping>true</disableFixedJointLumping>
  </gazebo>
  <gazebo reference="l_foot_rear_ft_sensor">
    <preserveFixedJoint>true</preserveFixedJoint>
    <!-- For compatibility with SDFormat < 4.4 -->
    <disableFixedJointLumping>true</disableFixedJointLumping>
  </gazebo>
  <gazebo reference="l_foot_front">
    <collision>
      <surface>
        <bounce>
          <restitution_coefficient>0</restitution_coefficient>
          <threshold>100000</threshold>
        </bounce>
      </surface>
    </collision>
    <maxContacts>4</maxContacts>
    <kp>18000000</kp>
    <kd>100</kd>
    <maxVel>100</maxVel>
    <minDepth>0.0001</minDepth>
    <mu1>1</mu1>
    <mu2>1</mu2>
    <fdir1>0 0 0</fdir1>
  </gazebo>
  <gazebo reference="l_foot_rear">
    <collision>
      <surface>
        <bounce>
          <restitution_coefficient>0</restitution_coefficient>
          <threshold>100000</threshold>
        </bounce>
      </surface>
    </collision>
    <maxContacts>4</maxContacts>
    <kp>18000000</kp>
    <kd>100</kd>
    <maxVel>100</maxVel>
    <minDepth>0.0001</minDepth>
    <mu1>1</mu1>
    <mu2>1</mu2>
    <fdir1>0 0 0</fdir1>
  </gazebo>
  <gazebo>
    <plugin name="gzyarp::ForceTorque" filename="gz-sim-yarp-forcetorque-system">
      <yarpConfigurationFile>model://ergoCub/conf/FT/gazebo_ergocub_left_leg_ft.ini</yarpConfigurationFile>
    </plugin>
  </gazebo>
  <gazebo>
    <plugin name="gzyarp::ForceTorque" filename="gz-sim-yarp-forcetorque-system">
      <yarpConfigurationFile>model://ergoCub/conf/FT/gazebo_ergocub_left_foot_front_ft.ini</yarpConfigurationFile>
    </plugin>
  </gazebo>
  <gazebo>
    <plugin name="gzyarp::ForceTorque" filename="gz-sim-yarp-forcetorque-system">
      <yarpConfigurationFile>model://ergoCub/conf/FT/gazebo_ergocub_left_foot_rear_ft.ini</yarpConfigurationFile>
    </plugin>
  </gazebo>
  <gazebo>
    <plugin name="gzyarp::Imu" filename="gz-sim-yarp-imu-system">
      <yarpConfigurationFile>model://ergoCub/conf/gazebo_ergocub_l_foot_front_ft_sensor_inertial.ini</yarpConfigurationFile>
    </plugin>
  </gazebo>
  <gazebo>
    <plugin name="gzyarp::Imu" filename="gz-sim-yarp-imu-system">
      <yarpConfigurationFile>model://ergoCub/conf/gazebo_ergocub_l_foot_rear_ft_sensor_inertial.ini</yarpConfigurationFile>
    </plugin>
  </gazebo>
  <gazebo>
    <plugin name="gzyarp::Imu" filename="gz-sim-yarp-imu-system">
      <yarpConfigurationFile>model://ergoCub/conf/gazebo_ergocub_l_leg_ft_sensor_inertial.ini</yarpConfigurationFile>
    </plugin>
  </gazebo>
  <gazebo>
    <plugin name="controlboard_left_leg" filename="libgazebo_yarp_controlboard.so">
      <yarpConfigurationFile>model://ergoCub/conf/gazebo_ergocub_left_leg.ini</yarpConfigurationFile>
    </plugin>
  </gazebo>
  <gazebo>
    <plugin name="gzyarp::ControlBoard" filename="gz-sim-yarp-controlboard-system">
      <yarpConfigurationFile>model://ergoCub/conf/gazebo_ergocub_left_leg.ini</yarpConfigurationFile>
    </plugin>
  </gazebo>
  <gazebo reference="l_hip_pitch">
    <implicitSpringDamper>1</implicitSpringDamper>
  </gazebo>
  <gazebo reference="l_hip_roll">
    <implicitSpringDamper>1</implicitSpringDamper>
  </gazebo>
  <gazebo reference="l_hip_yaw">
    <implicitSpringDamper>1</implicitSpringDamper>
  </gazebo>
  <gazebo reference="l_knee">
    <implicitSpringDamper>1</implicitSpringDamper>
  </gazebo>
  <gazebo reference="l_ankle_pitch">
    <implicitSpringDamper>1</implicitSpringDamper>
  </gazebo>
  <gazebo reference="l_ankle_roll">
    <implicitSpringDamper>1</implicitSpringDamper>
  </gazebo>
  <gazebo reference="r_leg_ft_sensor">
    <preserveFixedJoint>true</preserveFixedJoint>
    <!-- For compatibility with SDFormat < 4.4 -->
    <disableFixedJointLumping>true</disableFixedJointLumping>
  </gazebo>
  <gazebo reference="r_foot_front_ft_sensor">
    <preserveFixedJoint>true</preserveFixedJoint>
    <!-- For compatibility with SDFormat < 4.4 -->
    <disableFixedJointLumping>true</disableFixedJointLumping>
  </gazebo>
  <gazebo reference="r_foot_rear_ft_sensor">
    <preserveFixedJoint>true</preserveFixedJoint>
    <!-- For compatibility with SDFormat < 4.4 -->
    <disableFixedJointLumping>true</disableFixedJointLumping>
  </gazebo>
  <gazebo reference="r_foot_front">
    <collision>
      <surface>
        <bounce>
          <restitution_coefficient>0</restitution_coefficient>
          <threshold>100000</threshold>
        </bounce>
      </surface>
    </collision>
    <maxContacts>4</maxContacts>
    <kp>18000000</kp>
    <kd>100</kd>
    <maxVel>100</maxVel>
    <minDepth>0.0001</minDepth>
    <mu1>1</mu1>
    <mu2>1</mu2>
    <fdir1>0 0 0</fdir1>
  </gazebo>
  <gazebo reference="r_foot_rear">
    <collision>
      <surface>
        <bounce>
          <restitution_coefficient>0</restitution_coefficient>
          <threshold>100000</threshold>
        </bounce>
      </surface>
    </collision>
    <maxContacts>4</maxContacts>
    <kp>18000000</kp>
    <kd>100</kd>
    <maxVel>100</maxVel>
    <minDepth>0.0001</minDepth>
    <mu1>1</mu1>
    <mu2>1</mu2>
    <fdir1>0 0 0</fdir1>
  </gazebo>
  <gazebo>
    <plugin name="gzyarp::ForceTorque" filename="gz-sim-yarp-forcetorque-system">
      <yarpConfigurationFile>model://ergoCub/conf/FT/gazebo_ergocub_right_leg_ft.ini</yarpConfigurationFile>
    </plugin>
  </gazebo>
  <gazebo>
    <plugin name="gzyarp::ForceTorque" filename="gz-sim-yarp-forcetorque-system">
      <yarpConfigurationFile>model://ergoCub/conf/FT/gazebo_ergocub_right_foot_front_ft.ini</yarpConfigurationFile>
    </plugin>
  </gazebo>
  <gazebo>
    <plugin name="gzyarp::ForceTorque" filename="gz-sim-yarp-forcetorque-system">
      <yarpConfigurationFile>model://ergoCub/conf/FT/gazebo_ergocub_right_foot_rear_ft.ini</yarpConfigurationFile>
    </plugin>
  </gazebo>
  <gazebo>
    <plugin name="gzyarp::Imu" filename="gz-sim-yarp-imu-system">
      <yarpConfigurationFile>model://ergoCub/conf/gazebo_ergocub_r_foot_front_ft_sensor_inertial.ini</yarpConfigurationFile>
    </plugin>
  </gazebo>
  <gazebo>
    <plugin name="gzyarp::Imu" filename="gz-sim-yarp-imu-system">
      <yarpConfigurationFile>model://ergoCub/conf/gazebo_ergocub_r_foot_rear_ft_sensor_inertial.ini</yarpConfigurationFile>
    </plugin>
  </gazebo>
  <gazebo>
    <plugin name="gzyarp::Imu" filename="gz-sim-yarp-imu-system">
      <yarpConfigurationFile>model://ergoCub/conf/gazebo_ergocub_r_leg_ft_sensor_inertial.ini</yarpConfigurationFile>
    </plugin>
  </gazebo>
  <gazebo>
    <plugin name="controlboard_right_leg" filename="libgazebo_yarp_controlboard.so">
      <yarpConfigurationFile>model://ergoCub/conf/gazebo_ergocub_right_leg.ini</yarpConfigurationFile>
    </plugin>
  </gazebo>
  <gazebo>
    <plugin name="gzyarp::ControlBoard" filename="gz-sim-yarp-controlboard-system">
      <yarpConfigurationFile>model://ergoCub/conf/gazebo_ergocub_right_leg.ini</yarpConfigurationFile>
    </plugin>
  </gazebo>
  <gazebo reference="r_hip_pitch">
    <implicitSpringDamper>1</implicitSpringDamper>
  </gazebo>
  <gazebo reference="r_hip_roll">
    <implicitSpringDamper>1</implicitSpringDamper>
  </gazebo>
  <gazebo reference="r_hip_yaw">
    <implicitSpringDamper>1</implicitSpringDamper>
  </gazebo>
  <gazebo reference="r_knee">
    <implicitSpringDamper>1</implicitSpringDamper>
  </gazebo>
  <gazebo reference="r_ankle_pitch">
    <implicitSpringDamper>1</implicitSpringDamper>
  </gazebo>
  <gazebo reference="r_ankle_roll">
    <implicitSpringDamper>1</implicitSpringDamper>
  </gazebo>
  <gazebo>
    <plugin name="gzyarp::Imu" filename="gz-sim-yarp-imu-system">
      <yarpConfigurationFile>model://ergoCub/conf/gazebo_ergocub_inertial.ini</yarpConfigurationFile>
    </plugin>
  </gazebo>
  <gazebo>
    <plugin name="gzyarp::Imu" filename="gz-sim-yarp-imu-system">
      <yarpConfigurationFile>model://ergoCub/conf/gazebo_ergocub_realsense_inertial.ini</yarpConfigurationFile>
    </plugin>
  </gazebo>
  <gazebo>
    <plugin name="gzyarp::Laser" filename="gz-sim-yarp-laser-system">
      <yarpConfigurationFile>model://ergoCub/conf/sensors/gazebo_ergocub_lidar.ini</yarpConfigurationFile>
    </plugin>
  </gazebo>
  <gazebo>
    <plugin name="controlboard_head" filename="libgazebo_yarp_controlboard.so">
      <yarpConfigurationFile>model://ergoCub/conf/gazebo_ergocub_head.ini</yarpConfigurationFile>
    </plugin>
  </gazebo>
  <gazebo>
    <plugin name="gzyarp::DepthCamera" filename="gz-sim-yarp-depthcamera-system">
      <yarpConfigurationFile>model://ergoCub/conf/sensors/gz_sim_ergocub_rgbd_camera.ini</yarpConfigurationFile>
    </plugin>
  </gazebo>
  <gazebo>
    <plugin name="gzyarp::ControlBoard" filename="gz-sim-yarp-controlboard-system">
      <yarpConfigurationFile>model://ergoCub/conf/gazebo_ergocub_head.ini</yarpConfigurationFile>
    </plugin>
  </gazebo>
  <gazebo reference="neck_pitch">
    <implicitSpringDamper>1</implicitSpringDamper>
  </gazebo>
  <gazebo reference="neck_roll">
    <implicitSpringDamper>1</implicitSpringDamper>
  </gazebo>
  <gazebo reference="neck_yaw">
    <implicitSpringDamper>1</implicitSpringDamper>
  </gazebo>
  <gazebo>
    <plugin name="controlboard_left_arm_no_hand" filename="libgazebo_yarp_controlboard.so">
      <yarpConfigurationFile>model://ergoCub/conf/gazebo_ergocub_left_arm_wrist_mk2_1.ini</yarpConfigurationFile>
      <initialConfiguration>-0.52 0.52 0 0.785 0 0 0.0</initialConfiguration>
    </plugin>
  </gazebo>
  <gazebo>
    <plugin name="gzyarp::ControlBoard" filename="gz-sim-yarp-controlboard-system">
      <yarpConfigurationFile>model://ergoCub/conf/gazebo_ergocub_left_arm_wrist_mk2_1.ini</yarpConfigurationFile>
      <initialConfiguration>-0.52 0.52 0 0.785 0 0 0.0</initialConfiguration>
    </plugin>
  </gazebo>
  <gazebo reference="l_shoulder_pitch">
    <implicitSpringDamper>1</implicitSpringDamper>
  </gazebo>
  <gazebo reference="l_shoulder_roll">
    <implicitSpringDamper>1</implicitSpringDamper>
  </gazebo>
  <gazebo reference="l_shoulder_yaw">
    <implicitSpringDamper>1</implicitSpringDamper>
  </gazebo>
  <gazebo reference="l_elbow">
    <implicitSpringDamper>1</implicitSpringDamper>
  </gazebo>
  <gazebo reference="l_wrist_roll">
    <implicitSpringDamper>1</implicitSpringDamper>
  </gazebo>
  <gazebo reference="l_wrist_pitch">
    <implicitSpringDamper>1</implicitSpringDamper>
  </gazebo>
  <gazebo reference="l_wrist_yaw">
    <implicitSpringDamper>1</implicitSpringDamper>
  </gazebo>
  <gazebo>
    <plugin name="controlboard_right_arm_no_hand" filename="libgazebo_yarp_controlboard.so">
      <yarpConfigurationFile>model://ergoCub/conf/gazebo_ergocub_right_arm_wrist_mk2_1.ini</yarpConfigurationFile>
      <initialConfiguration>-0.52 0.52 0 0.785 0 0 0.0</initialConfiguration>
    </plugin>
  </gazebo>
  <gazebo>
    <plugin name="gzyarp::ControlBoard" filename="gz-sim-yarp-controlboard-system">
      <yarpConfigurationFile>model://ergoCub/conf/gazebo_ergocub_right_arm_wrist_mk2_1.ini</yarpConfigurationFile>
      <initialConfiguration>-0.52 0.52 0 0.785 0 0 0.0</initialConfiguration>
    </plugin>
  </gazebo>
  <gazebo reference="r_shoulder_pitch">
    <implicitSpringDamper>1</implicitSpringDamper>
  </gazebo>
  <gazebo reference="r_shoulder_roll">
    <implicitSpringDamper>1</implicitSpringDamper>
  </gazebo>
  <gazebo reference="r_shoulder_yaw">
    <implicitSpringDamper>1</implicitSpringDamper>
  </gazebo>
  <gazebo reference="r_elbow">
    <implicitSpringDamper>1</implicitSpringDamper>
  </gazebo>
  <gazebo reference="r_wrist_roll">
    <implicitSpringDamper>1</implicitSpringDamper>
  </gazebo>
  <gazebo reference="r_wrist_pitch">
    <implicitSpringDamper>1</implicitSpringDamper>
  </gazebo>
  <gazebo reference="r_wrist_yaw">
    <implicitSpringDamper>1</implicitSpringDamper>
  </gazebo>
  <gazebo>
    <plugin name="robotinterface" filename="libgazebo_yarp_robotinterface.so">
      <yarpRobotInterfaceConfigurationFile>model://ergoCub/conf/ergocub.xml</yarpRobotInterfaceConfigurationFile>
    </plugin>
  </gazebo>
  <gazebo>
    <plugin name="gzyarp::RobotInterface" filename="gz-sim-yarp-robotinterface-system">
      <yarpRobotInterfaceConfigurationFile>model://ergoCub/conf/ergocub.xml</yarpRobotInterfaceConfigurationFile>
    </plugin>
  </gazebo>
  <gazebo>
    <pose>0.000000 0.000000 0.800000 0.000000 0.000000 0.000000</pose>
  </gazebo>
</robot>
